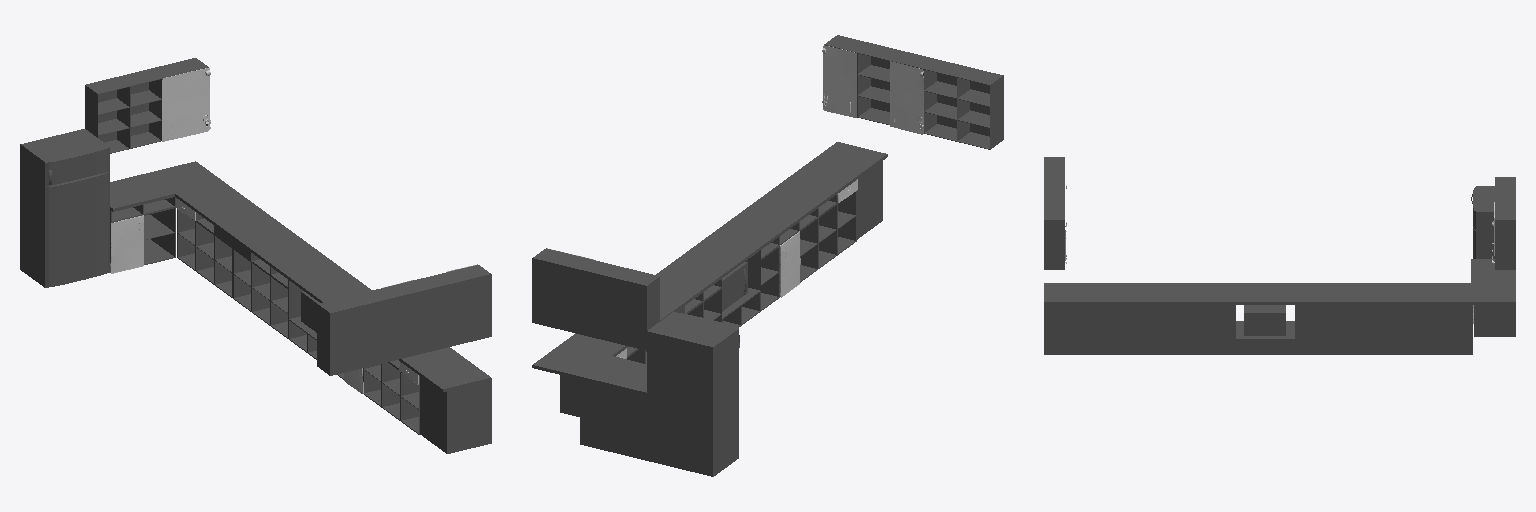
--- Facts derived from the render (not from the file) ---
3 views of the same robot in one strip: view 1: azimuth 30°, elevation 25°; view 2: azimuth 150°, elevation 25°; view 3: azimuth 270°, elevation 25° (orthographic).
Model Scene with 116 links and 115 joints (24 revolute, 14 prismatic, 77 fixed), rooted at world, posed every joint at zero.
Visible links, largest first — view 1: counter_0, refrigerator_door, refrigerator_corpus, box, upper_left_cabinet_1.29_0.692_0.4995_1_corpus, big_upper_cabinet_1.29_0.692_0.4995_3_door_0_0, counter_1, upper_right_cabinet_1.29_0.692_0.4995_3_corpus, upper_right_cabinet_1.29_0.692_0.4995_0_corpus, upper_right_cabinet_1.29_0.692_0.4995_1_corpus, upper_right_cabinet_1.29_0.692_0.4995_2_corpus, upper_left_cabinet_1.29_0.692_0.4995_0_corpus (+14 smaller); view 2: refrigerator_corpus, counter_0, big_upper_cabinet_1.29_0.692_0.4995_3_corpus, upper_left_cabinet_1.29_0.692_0.4995_1_corpus, upper_right_cabinet_1.29_0.692_0.4995_3_corpus, counter_1, upper_left_cabinet_1.29_0.692_0.4995_2_corpus, upper_right_cabinet_1.29_0.692_0.4995_1_corpus, upper_right_cabinet_1.29_0.692_0.4995_2_corpus, upper_right_cabinet_1.29_0.692_0.4995_0_door_0_0, upper_left_cabinet_1.29_0.692_0.4995_0_door_0_0, lower_left_cabinet_1.29_0.692_0.4995_0_corpus (+10 smaller); view 3: counter_0, box, counter_1, big_upper_cabinet_1.29_0.692_0.4995_3_corpus, lower_left_cabinet_1.29_0.692_0.4995_0_corpus, upper_right_cabinet_1.29_0.692_0.4995_0_corpus, refrigerator_corpus, microwave_corpus, lower_right_cabinet_1.039_0.692_0.999_1_corpus, lower_left_cabinet_1.29_0.692_0.4995_1_corpus, lower_left_cabinet_1.29_0.692_0.4995_5_corpus, lower_right_cabinet_1.039_0.692_0.999_2_corpus (+10 smaller).
Boxes of the visible links, x1=… form: counter_0: x1=175, y1=181, x2=491, y2=392; refrigerator_door: x1=45, y1=172, x2=109, y2=286; refrigerator_corpus: x1=20, y1=129, x2=109, y2=287; box: x1=420, y1=376, x2=491, y2=453; upper_left_cabinet_1.29_0.692_0.4995_1_corpus: x1=317, y1=296, x2=362, y2=375; big_upper_cabinet_1.29_0.692_0.4995_3_door_0_0: x1=162, y1=68, x2=210, y2=141; counter_1: x1=110, y1=161, x2=223, y2=211; upper_right_cabinet_1.29_0.692_0.4995_3_corpus: x1=85, y1=77, x2=129, y2=153; upper_right_cabinet_1.29_0.692_0.4995_0_corpus: x1=447, y1=265, x2=491, y2=344; upper_right_cabinet_1.29_0.692_0.4995_1_corpus: x1=414, y1=272, x2=458, y2=351; upper_right_cabinet_1.29_0.692_0.4995_2_corpus: x1=350, y1=288, x2=394, y2=367; upper_left_cabinet_1.29_0.692_0.4995_0_corpus: x1=382, y1=280, x2=426, y2=359; refrigerator_corpus: x1=647, y1=312, x2=738, y2=476; counter_0: x1=560, y1=142, x2=887, y2=356; big_upper_cabinet_1.29_0.692_0.4995_3_corpus: x1=532, y1=248, x2=592, y2=333; upper_left_cabinet_1.29_0.692_0.4995_1_corpus: x1=957, y1=67, x2=1003, y2=149; upper_right_cabinet_1.29_0.692_0.4995_3_corpus: x1=614, y1=268, x2=659, y2=350; counter_1: x1=532, y1=345, x2=646, y2=395; upper_left_cabinet_1.29_0.692_0.4995_2_corpus: x1=580, y1=260, x2=625, y2=342; upper_right_cabinet_1.29_0.692_0.4995_1_corpus: x1=857, y1=43, x2=902, y2=124; upper_right_cabinet_1.29_0.692_0.4995_2_corpus: x1=924, y1=59, x2=969, y2=141; upper_right_cabinet_1.29_0.692_0.4995_0_door_0_0: x1=822, y1=45, x2=856, y2=117; upper_left_cabinet_1.29_0.692_0.4995_0_door_0_0: x1=890, y1=61, x2=923, y2=134; lower_left_cabinet_1.29_0.692_0.4995_0_corpus: x1=580, y1=392, x2=613, y2=452; counter_0: x1=1044, y1=283, x2=1472, y2=304; box: x1=1044, y1=305, x2=1086, y2=354; counter_1: x1=1471, y1=259, x2=1515, y2=304; big_upper_cabinet_1.29_0.692_0.4995_3_corpus: x1=1495, y1=202, x2=1515, y2=269; lower_left_cabinet_1.29_0.692_0.4995_0_corpus: x1=1474, y1=305, x2=1515, y2=336; upper_right_cabinet_1.29_0.692_0.4995_0_corpus: x1=1044, y1=207, x2=1064, y2=269; refrigerator_corpus: x1=1476, y1=186, x2=1494, y2=258; microwave_corpus: x1=1244, y1=305, x2=1285, y2=335; lower_right_cabinet_1.039_0.692_0.999_1_corpus: x1=1443, y1=315, x2=1472, y2=354; lower_left_cabinet_1.29_0.692_0.4995_1_corpus: x1=1413, y1=315, x2=1442, y2=354; lower_left_cabinet_1.29_0.692_0.4995_5_corpus: x1=1354, y1=315, x2=1383, y2=354; lower_right_cabinet_1.039_0.692_0.999_2_corpus: x1=1324, y1=315, x2=1353, y2=354.
Size in the robot's own frame: 3.81 by 10.99 by 3.49 metres.
11 mesh visuals loaded from 39 distinct referenced files (11 OBJ); not drawn: 28 (reference not matched to a file when rendering).

robot.urdf — Scene:
<?xml version='1.0' encoding='ASCII'?>
<robot name="Scene">
  <link name="drawer_0.251_0.692_0.999_0_corpus">
    <inertial>
      <origin xyz="0.0 0.0 0.0" rpy="0.0 -0.0 0.0" />
      <mass value="0.038112919999999995" />
      <inertia ixx="1.0" ixy="0.0" ixz="0.0" iyy="1.0" iyz="0.0" izz="1.0" />
    </inertial>
    <visual name="drawer_0.251_0.692_0.999_0_back">
      <geometry>
        <box size="0.692 0.02 0.231" />
      </geometry>
      <origin xyz="0.0 0.4895 0.1155" rpy="0.0 -0.0 0.0" />
      <material name="drawer_0.251_0.692_0.999_0_back_main_color">
        <color rgba="0.4 0.4 0.4 1.0" />
      </material>
    </visual>
    <visual name="drawer_0.251_0.692_0.999_0_left">
      <geometry>
        <box size="0.02 0.959 0.231" />
      </geometry>
      <origin xyz="-0.33599999999999997 0.0 0.1155" rpy="0.0 -0.0 0.0" />
      <material name="drawer_0.251_0.692_0.999_0_left_main_color">
        <color rgba="0.4 0.4 0.4 1.0" />
      </material>
    </visual>
    <visual name="drawer_0.251_0.692_0.999_0_right">
      <geometry>
        <box size="0.02 0.959 0.231" />
      </geometry>
      <origin xyz="0.33599999999999997 0.0 0.1155" rpy="0.0 -0.0 0.0" />
      <material name="drawer_0.251_0.692_0.999_0_right_main_color">
        <color rgba="0.4 0.4 0.4 1.0" />
      </material>
    </visual>
    <visual name="drawer_0.251_0.692_0.999_0_surface_0_0">
      <geometry>
        <box size="0.6519999999999999 0.959 0.02" />
      </geometry>
      <origin xyz="0.0 0.0 0.010000000000000018" rpy="0.0 -0.0 0.0" />
      <material name="drawer_0.251_0.692_0.999_0_surface_0_0_main_color">
        <color rgba="0.4 0.4 0.4 1.0" />
      </material>
    </visual>
    <visual name="drawer_0.251_0.692_0.999_0_top">
      <geometry>
        <box size="0.692 0.979 0.02" />
      </geometry>
      <origin xyz="0.0 0.01 0.241" rpy="0.0 -0.0 0.0" />
      <material name="drawer_0.251_0.692_0.999_0_top_main_color">
        <color rgba="0.4 0.4 0.4 1.0" />
      </material>
    </visual>
    <collision name="drawer_0.251_0.692_0.999_0_back">
      <geometry>
        <box size="0.692 0.02 0.231" />
      </geometry>
      <origin xyz="0.0 0.4895 0.1155" rpy="0.0 -0.0 0.0" />
    </collision>
    <collision name="drawer_0.251_0.692_0.999_0_left">
      <geometry>
        <box size="0.02 0.959 0.231" />
      </geometry>
      <origin xyz="-0.33599999999999997 0.0 0.1155" rpy="0.0 -0.0 0.0" />
    </collision>
    <collision name="drawer_0.251_0.692_0.999_0_right">
      <geometry>
        <box size="0.02 0.959 0.231" />
      </geometry>
      <origin xyz="0.33599999999999997 0.0 0.1155" rpy="0.0 -0.0 0.0" />
    </collision>
    <collision name="drawer_0.251_0.692_0.999_0_surface_0_0">
      <geometry>
        <box size="0.6519999999999999 0.959 0.02" />
      </geometry>
      <origin xyz="0.0 0.0 0.010000000000000018" rpy="0.0 -0.0 0.0" />
    </collision>
    <collision name="drawer_0.251_0.692_0.999_0_top">
      <geometry>
        <box size="0.692 0.979 0.02" />
      </geometry>
      <origin xyz="0.0 0.01 0.241" rpy="0.0 -0.0 0.0" />
    </collision>
  </link>
  <link name="drawer_0.251_0.692_0.999_0_drawer_0_0">
    <inertial>
      <origin xyz="0.0 0.0 0.0" rpy="0.0 -0.0 0.0" />
      <mass value="0.09999999999999999" />
      <inertia ixx="1.0" ixy="0.0" ixz="0.0" iyy="1.0" iyz="0.0" izz="1.0" />
    </inertial>
    <visual><geometry><mesh filename="second_floor_kitchen_pipleine/drawer_0.251_0.692_0.999_0.obj" /></geometry><material name="drawer_0.251_0.692_0.999_0_drawer_0_0_material"><color rgba="0.8 0.8 0.8 1.0" /></material></visual><collision><geometry><box size="0.688000 0.991200 0.247000" /></geometry><origin xyz="0.000000 0.365500 0.000000" rpy="0 0 0" /></collision></link>
  <link name="drawer_0.251_0.692_0.999_1_corpus">
    <inertial>
      <origin xyz="0.0 0.0 0.0" rpy="0.0 -0.0 0.0" />
      <mass value="0.038112919999999995" />
      <inertia ixx="1.0" ixy="0.0" ixz="0.0" iyy="1.0" iyz="0.0" izz="1.0" />
    </inertial>
    <visual name="drawer_0.251_0.692_0.999_1_back">
      <geometry>
        <box size="0.692 0.02 0.231" />
      </geometry>
      <origin xyz="0.0 0.4895 0.1155" rpy="0.0 -0.0 0.0" />
      <material name="drawer_0.251_0.692_0.999_1_back_main_color">
        <color rgba="0.4 0.4 0.4 1.0" />
      </material>
    </visual>
    <visual name="drawer_0.251_0.692_0.999_1_left">
      <geometry>
        <box size="0.02 0.959 0.231" />
      </geometry>
      <origin xyz="-0.33599999999999997 0.0 0.1155" rpy="0.0 -0.0 0.0" />
      <material name="drawer_0.251_0.692_0.999_1_left_main_color">
        <color rgba="0.4 0.4 0.4 1.0" />
      </material>
    </visual>
    <visual name="drawer_0.251_0.692_0.999_1_right">
      <geometry>
        <box size="0.02 0.959 0.231" />
      </geometry>
      <origin xyz="0.33599999999999997 0.0 0.1155" rpy="0.0 -0.0 0.0" />
      <material name="drawer_0.251_0.692_0.999_1_right_main_color">
        <color rgba="0.4 0.4 0.4 1.0" />
      </material>
    </visual>
    <visual name="drawer_0.251_0.692_0.999_1_surface_0_0">
      <geometry>
        <box size="0.6519999999999999 0.959 0.02" />
      </geometry>
      <origin xyz="0.0 0.0 0.010000000000000018" rpy="0.0 -0.0 0.0" />
      <material name="drawer_0.251_0.692_0.999_1_surface_0_0_main_color">
        <color rgba="0.4 0.4 0.4 1.0" />
      </material>
    </visual>
    <visual name="drawer_0.251_0.692_0.999_1_top">
      <geometry>
        <box size="0.692 0.979 0.02" />
      </geometry>
      <origin xyz="0.0 0.01 0.241" rpy="0.0 -0.0 0.0" />
      <material name="drawer_0.251_0.692_0.999_1_top_main_color">
        <color rgba="0.4 0.4 0.4 1.0" />
      </material>
    </visual>
    <collision name="drawer_0.251_0.692_0.999_1_back">
      <geometry>
        <box size="0.692 0.02 0.231" />
      </geometry>
      <origin xyz="0.0 0.4895 0.1155" rpy="0.0 -0.0 0.0" />
    </collision>
    <collision name="drawer_0.251_0.692_0.999_1_left">
      <geometry>
        <box size="0.02 0.959 0.231" />
      </geometry>
      <origin xyz="-0.33599999999999997 0.0 0.1155" rpy="0.0 -0.0 0.0" />
    </collision>
    <collision name="drawer_0.251_0.692_0.999_1_right">
      <geometry>
        <box size="0.02 0.959 0.231" />
      </geometry>
      <origin xyz="0.33599999999999997 0.0 0.1155" rpy="0.0 -0.0 0.0" />
    </collision>
    <collision name="drawer_0.251_0.692_0.999_1_surface_0_0">
      <geometry>
        <box size="0.6519999999999999 0.959 0.02" />
      </geometry>
      <origin xyz="0.0 0.0 0.010000000000000018" rpy="0.0 -0.0 0.0" />
    </collision>
    <collision name="drawer_0.251_0.692_0.999_1_top">
      <geometry>
        <box size="0.692 0.979 0.02" />
      </geometry>
      <origin xyz="0.0 0.01 0.241" rpy="0.0 -0.0 0.0" />
    </collision>
  </link>
  <link name="drawer_0.251_0.692_0.999_1_drawer_0_0">
    <inertial>
      <origin xyz="0.0 0.0 0.0" rpy="0.0 -0.0 0.0" />
      <mass value="0.09999999999999999" />
      <inertia ixx="1.0" ixy="0.0" ixz="0.0" iyy="1.0" iyz="0.0" izz="1.0" />
    </inertial>
    <visual><geometry><mesh filename="second_floor_kitchen_pipleine/drawer_0.251_0.692_0.999_1.obj" /></geometry><material name="drawer_0.251_0.692_0.999_1_drawer_0_0_material"><color rgba="0.8 0.8 0.8 1.0" /></material></visual><collision><geometry><box size="0.688000 0.991200 0.247000" /></geometry><origin xyz="0.000000 0.365500 0.000000" rpy="0 0 0" /></collision></link>
  <link name="drawer_0.251_0.692_0.999_2_corpus">
    <inertial>
      <origin xyz="0.0 0.0 0.0" rpy="0.0 -0.0 0.0" />
      <mass value="0.038112919999999995" />
      <inertia ixx="1.0" ixy="0.0" ixz="0.0" iyy="1.0" iyz="0.0" izz="1.0" />
    </inertial>
    <visual name="drawer_0.251_0.692_0.999_2_back">
      <geometry>
        <box size="0.692 0.02 0.231" />
      </geometry>
      <origin xyz="0.0 0.4895 0.1155" rpy="0.0 -0.0 0.0" />
      <material name="drawer_0.251_0.692_0.999_2_back_main_color">
        <color rgba="0.4 0.4 0.4 1.0" />
      </material>
    </visual>
    <visual name="drawer_0.251_0.692_0.999_2_left">
      <geometry>
        <box size="0.02 0.959 0.231" />
      </geometry>
      <origin xyz="-0.33599999999999997 0.0 0.1155" rpy="0.0 -0.0 0.0" />
      <material name="drawer_0.251_0.692_0.999_2_left_main_color">
        <color rgba="0.4 0.4 0.4 1.0" />
      </material>
    </visual>
    <visual name="drawer_0.251_0.692_0.999_2_right">
      <geometry>
        <box size="0.02 0.959 0.231" />
      </geometry>
      <origin xyz="0.33599999999999997 0.0 0.1155" rpy="0.0 -0.0 0.0" />
      <material name="drawer_0.251_0.692_0.999_2_right_main_color">
        <color rgba="0.4 0.4 0.4 1.0" />
      </material>
    </visual>
    <visual name="drawer_0.251_0.692_0.999_2_surface_0_0">
      <geometry>
        <box size="0.6519999999999999 0.959 0.02" />
      </geometry>
      <origin xyz="0.0 0.0 0.010000000000000018" rpy="0.0 -0.0 0.0" />
      <material name="drawer_0.251_0.692_0.999_2_surface_0_0_main_color">
        <color rgba="0.4 0.4 0.4 1.0" />
      </material>
    </visual>
    <visual name="drawer_0.251_0.692_0.999_2_top">
      <geometry>
        <box size="0.692 0.979 0.02" />
      </geometry>
      <origin xyz="0.0 0.01 0.241" rpy="0.0 -0.0 0.0" />
      <material name="drawer_0.251_0.692_0.999_2_top_main_color">
        <color rgba="0.4 0.4 0.4 1.0" />
      </material>
    </visual>
    <collision name="drawer_0.251_0.692_0.999_2_back">
      <geometry>
        <box size="0.692 0.02 0.231" />
      </geometry>
      <origin xyz="0.0 0.4895 0.1155" rpy="0.0 -0.0 0.0" />
    </collision>
    <collision name="drawer_0.251_0.692_0.999_2_left">
      <geometry>
        <box size="0.02 0.959 0.231" />
      </geometry>
      <origin xyz="-0.33599999999999997 0.0 0.1155" rpy="0.0 -0.0 0.0" />
    </collision>
    <collision name="drawer_0.251_0.692_0.999_2_right">
      <geometry>
        <box size="0.02 0.959 0.231" />
      </geometry>
      <origin xyz="0.33599999999999997 0.0 0.1155" rpy="0.0 -0.0 0.0" />
    </collision>
    <collision name="drawer_0.251_0.692_0.999_2_surface_0_0">
      <geometry>
        <box size="0.6519999999999999 0.959 0.02" />
      </geometry>
      <origin xyz="0.0 0.0 0.010000000000000018" rpy="0.0 -0.0 0.0" />
    </collision>
    <collision name="drawer_0.251_0.692_0.999_2_top">
      <geometry>
        <box size="0.692 0.979 0.02" />
      </geometry>
      <origin xyz="0.0 0.01 0.241" rpy="0.0 -0.0 0.0" />
    </collision>
  </link>
  <link name="drawer_0.251_0.692_0.999_2_drawer_0_0">
    <inertial>
      <origin xyz="0.0 0.0 0.0" rpy="0.0 -0.0 0.0" />
      <mass value="0.09999999999999999" />
      <inertia ixx="1.0" ixy="0.0" ixz="0.0" iyy="1.0" iyz="0.0" izz="1.0" />
    </inertial>
    <visual><geometry><mesh filename="second_floor_kitchen_pipleine/drawer_0.251_0.692_0.999_2.obj" /></geometry><material name="drawer_0.251_0.692_0.999_2_drawer_0_0_material"><color rgba="0.8 0.8 0.8 1.0" /></material></visual><collision><geometry><box size="0.688000 0.991200 0.247000" /></geometry><origin xyz="0.000000 0.365500 0.000000" rpy="0 0 0" /></collision></link>
  <link name="drawer_0.251_0.692_0.999_3_corpus">
    <inertial>
      <origin xyz="0.0 0.0 0.0" rpy="0.0 -0.0 0.0" />
      <mass value="0.038112919999999995" />
      <inertia ixx="1.0" ixy="0.0" ixz="0.0" iyy="1.0" iyz="0.0" izz="1.0" />
    </inertial>
    <visual name="drawer_0.251_0.692_0.999_3_back">
      <geometry>
        <box size="0.692 0.02 0.231" />
      </geometry>
      <origin xyz="0.0 0.4895 0.1155" rpy="0.0 -0.0 0.0" />
      <material name="drawer_0.251_0.692_0.999_3_back_main_color">
        <color rgba="0.4 0.4 0.4 1.0" />
      </material>
    </visual>
    <visual name="drawer_0.251_0.692_0.999_3_left">
      <geometry>
        <box size="0.02 0.959 0.231" />
      </geometry>
      <origin xyz="-0.33599999999999997 0.0 0.1155" rpy="0.0 -0.0 0.0" />
      <material name="drawer_0.251_0.692_0.999_3_left_main_color">
        <color rgba="0.4 0.4 0.4 1.0" />
      </material>
    </visual>
    <visual name="drawer_0.251_0.692_0.999_3_right">
      <geometry>
        <box size="0.02 0.959 0.231" />
      </geometry>
      <origin xyz="0.33599999999999997 0.0 0.1155" rpy="0.0 -0.0 0.0" />
      <material name="drawer_0.251_0.692_0.999_3_right_main_color">
        <color rgba="0.4 0.4 0.4 1.0" />
      </material>
    </visual>
    <visual name="drawer_0.251_0.692_0.999_3_surface_0_0">
      <geometry>
        <box size="0.6519999999999999 0.959 0.02" />
      </geometry>
      <origin xyz="0.0 0.0 0.010000000000000018" rpy="0.0 -0.0 0.0" />
      <material name="drawer_0.251_0.692_0.999_3_surface_0_0_main_color">
        <color rgba="0.4 0.4 0.4 1.0" />
      </material>
    </visual>
    <visual name="drawer_0.251_0.692_0.999_3_top">
      <geometry>
        <box size="0.692 0.979 0.02" />
      </geometry>
      <origin xyz="0.0 0.01 0.241" rpy="0.0 -0.0 0.0" />
      <material name="drawer_0.251_0.692_0.999_3_top_main_color">
        <color rgba="0.4 0.4 0.4 1.0" />
      </material>
    </visual>
    <collision name="drawer_0.251_0.692_0.999_3_back">
      <geometry>
        <box size="0.692 0.02 0.231" />
      </geometry>
      <origin xyz="0.0 0.4895 0.1155" rpy="0.0 -0.0 0.0" />
    </collision>
    <collision name="drawer_0.251_0.692_0.999_3_left">
      <geometry>
        <box size="0.02 0.959 0.231" />
      </geometry>
      <origin xyz="-0.33599999999999997 0.0 0.1155" rpy="0.0 -0.0 0.0" />
    </collision>
    <collision name="drawer_0.251_0.692_0.999_3_right">
      <geometry>
        <box size="0.02 0.959 0.231" />
      </geometry>
      <origin xyz="0.33599999999999997 0.0 0.1155" rpy="0.0 -0.0 0.0" />
    </collision>
    <collision name="drawer_0.251_0.692_0.999_3_surface_0_0">
      <geometry>
        <box size="0.6519999999999999 0.959 0.02" />
      </geometry>
      <origin xyz="0.0 0.0 0.010000000000000018" rpy="0.0 -0.0 0.0" />
    </collision>
    <collision name="drawer_0.251_0.692_0.999_3_top">
      <geometry>
        <box size="0.692 0.979 0.02" />
      </geometry>
      <origin xyz="0.0 0.01 0.241" rpy="0.0 -0.0 0.0" />
    </collision>
  </link>
  <link name="drawer_0.251_0.692_0.999_3_drawer_0_0">
    <inertial>
      <origin xyz="0.0 0.0 0.0" rpy="0.0 -0.0 0.0" />
      <mass value="0.09999999999999999" />
      <inertia ixx="1.0" ixy="0.0" ixz="0.0" iyy="1.0" iyz="0.0" izz="1.0" />
    </inertial>
    <visual><geometry><mesh filename="second_floor_kitchen_pipleine/drawer_0.251_0.692_0.999_3.obj" /></geometry><material name="drawer_0.251_0.692_0.999_3_drawer_0_0_material"><color rgba="0.8 0.8 0.8 1.0" /></material></visual><collision><geometry><box size="0.688000 0.991200 0.247000" /></geometry><origin xyz="0.000000 0.365500 0.000000" rpy="0 0 0" /></collision></link>
  <link name="long_drawer_corpus">
    <inertial>
      <origin xyz="0.0 0.0 0.0" rpy="0.0 -0.0 0.0" />
      <mass value="0.06813187999999999" />
      <inertia ixx="1.0" ixy="0.0" ixz="0.0" iyy="1.0" iyz="0.0" izz="1.0" />
    </inertial>
    <visual name="long_drawer_back">
      <geometry>
        <box size="1.384 0.02 0.231" />
      </geometry>
      <origin xyz="0.0 0.4895 0.1155" rpy="0.0 -0.0 0.0" />
      <material name="long_drawer_back_main_color">
        <color rgba="0.4 0.4 0.4 1.0" />
      </material>
    </visual>
    <visual name="long_drawer_left">
      <geometry>
        <box size="0.02 0.959 0.231" />
      </geometry>
      <origin xyz="-0.6819999999999999 0.0 0.1155" rpy="0.0 -0.0 0.0" />
      <material name="long_drawer_left_main_color">
        <color rgba="0.4 0.4 0.4 1.0" />
      </material>
    </visual>
    <visual name="long_drawer_right">
      <geometry>
        <box size="0.02 0.959 0.231" />
      </geometry>
      <origin xyz="0.6819999999999999 0.0 0.1155" rpy="0.0 -0.0 0.0" />
      <material name="long_drawer_right_main_color">
        <color rgba="0.4 0.4 0.4 1.0" />
      </material>
    </visual>
    <visual name="long_drawer_surface_0_0">
      <geometry>
        <box size="1.3439999999999999 0.959 0.02" />
      </geometry>
      <origin xyz="0.0 0.0 0.010000000000000018" rpy="0.0 -0.0 0.0" />
      <material name="long_drawer_surface_0_0_main_color">
        <color rgba="0.4 0.4 0.4 1.0" />
      </material>
    </visual>
    <visual name="long_drawer_top">
      <geometry>
        <box size="1.384 0.979 0.02" />
      </geometry>
      <origin xyz="0.0 0.01 0.241" rpy="0.0 -0.0 0.0" />
      <material name="long_drawer_top_main_color">
        <color rgba="0.4 0.4 0.4 1.0" />
      </material>
    </visual>
    <collision name="long_drawer_back">
      <geometry>
        <box size="1.384 0.02 0.231" />
      </geometry>
      <origin xyz="0.0 0.4895 0.1155" rpy="0.0 -0.0 0.0" />
    </collision>
    <collision name="long_drawer_left">
      <geometry>
        <box size="0.02 0.959 0.231" />
      </geometry>
      <origin xyz="-0.6819999999999999 0.0 0.1155" rpy="0.0 -0.0 0.0" />
    </collision>
    <collision name="long_drawer_right">
      <geometry>
        <box size="0.02 0.959 0.231" />
      </geometry>
      <origin xyz="0.6819999999999999 0.0 0.1155" rpy="0.0 -0.0 0.0" />
    </collision>
    <collision name="long_drawer_surface_0_0">
      <geometry>
        <box size="1.3439999999999999 0.959 0.02" />
      </geometry>
      <origin xyz="0.0 0.0 0.010000000000000018" rpy="0.0 -0.0 0.0" />
    </collision>
    <collision name="long_drawer_top">
      <geometry>
        <box size="1.384 0.979 0.02" />
      </geometry>
      <origin xyz="0.0 0.01 0.241" rpy="0.0 -0.0 0.0" />
    </collision>
  </link>
  <link name="long_drawer_drawer_0_0">
    <inertial>
      <origin xyz="0.0 0.0 0.0" rpy="0.0 -0.0 0.0" />
      <mass value="0.09999999999999999" />
      <inertia ixx="1.0" ixy="0.0" ixz="0.0" iyy="1.0" iyz="0.0" izz="1.0" />
    </inertial>
    <visual name="long_drawer_drawer_0_0_board_0">
      <geometry>
        <box size="1.38 0.02 0.247" />
      </geometry>
      <origin xyz="0.0 -0.01 0.0" rpy="0.0 -0.0 0.0" />
      <material name="long_drawer_drawer_0_0_board_0_main_color">
        <color rgba="0.4 0.4 0.4 1.0" />
      </material>
    </visual>
    <visual name="long_drawer_drawer_0_0_board_1">
      <geometry>
        <box size="1.3239999999999998 0.8561 0.005" />
      </geometry>
      <origin xyz="0.0 0.42805 -0.098" rpy="0.0 -0.0 0.0" />
      <material name="long_drawer_drawer_0_0_board_1_main_color">
        <color rgba="0.4 0.4 0.4 1.0" />
      </material>
    </visual>
    <visual name="long_drawer_drawer_0_0_board_2">
      <geometry>
        <box size="0.005 0.8561 0.20099999999999998" />
      </geometry>
      <origin xyz="-0.6645 0.42805 0.0" rpy="0.0 -0.0 0.0" />
      <material name="long_drawer_drawer_0_0_board_2_main_color">
        <color rgba="0.4 0.4 0.4 1.0" />
      </material>
    </visual>
    <visual name="long_drawer_drawer_0_0_board_3">
      <geometry>
        <box size="0.005 0.8561 0.20099999999999998" />
      </geometry>
      <origin xyz="0.6645 0.42805 0.0" rpy="0.0 -0.0 0.0" />
      <material name="long_drawer_drawer_0_0_board_3_main_color">
        <color rgba="0.4 0.4 0.4 1.0" />
      </material>
    </visual>
    <visual name="long_drawer_drawer_0_0_board_4">
      <geometry>
        <box size="1.3339999999999999 0.005 0.20099999999999998" />
      </geometry>
      <origin xyz="0.0 0.8586 0.0" rpy="0.0 -0.0 0.0" />
      <material name="long_drawer_drawer_0_0_board_4_main_color">
        <color rgba="0.4 0.4 0.4 1.0" />
      </material>
    </visual>
    <visual name="long_drawer_drawer_0_0_handle_part_0">
      <geometry>
        <box size="0.001 0.0 0.0" />
      </geometry>
      <origin xyz="1.874699728327322e-36 -0.0195 -3.061616997868383e-20" rpy="3.141592653589793 6.123233995736766e-17 1.5707963267948966" />
      <material name="long_drawer_drawer_0_0_handle_part_0_main_color">
        <color rgba="0.4 0.4 0.4 1.0" />
      </material>
    </visual>
    <visual name="long_drawer_drawer_0_0_handle_part_1">
      <geometry>
        <box size="0.0 0.04 0.0" />
      </geometry>
      <origin xyz="0.02 -0.02 2.4492935982947064e-18" rpy="3.141592653589793 6.123233995736766e-17 1.5707963267948966" />
      <material name="long_drawer_drawer_0_0_handle_part_1_main_color">
        <color rgba="0.4 0.4 0.4 1.0" />
      </material>
    </visual>
    <visual name="long_drawer_drawer_0_0_handle_part_2">
      <geometry>
        <box size="0.0 0.04 0.0" />
      </geometry>
      <origin xyz="-0.02 -0.02 -2.4492935982947064e-18" rpy="3.141592653589793 6.123233995736766e-17 1.5707963267948966" />
      <material name="long_drawer_drawer_0_0_handle_part_2_main_color">
        <color rgba="0.4 0.4 0.4 1.0" />
      </material>
    </visual>
    <collision name="long_drawer_drawer_0_0_board_0">
      <geometry>
        <box size="1.38 0.02 0.247" />
      </geometry>
      <origin xyz="0.0 -0.01 0.0" rpy="0.0 -0.0 0.0" />
    </collision>
    <collision name="long_drawer_drawer_0_0_board_1">
      <geometry>
        <box size="1.3239999999999998 0.8561 0.005" />
      </geometry>
      <origin xyz="0.0 0.42805 -0.098" rpy="0.0 -0.0 0.0" />
    </collision>
    <collision name="long_drawer_drawer_0_0_board_2">
      <geometry>
        <box size="0.005 0.8561 0.20099999999999998" />
      </geometry>
      <origin xyz="-0.6645 0.42805 0.0" rpy="0.0 -0.0 0.0" />
    </collision>
    <collision name="long_drawer_drawer_0_0_board_3">
      <geometry>
        <box size="0.005 0.8561 0.20099999999999998" />
      </geometry>
      <origin xyz="0.6645 0.42805 0.0" rpy="0.0 -0.0 0.0" />
    </collision>
    <collision name="long_drawer_drawer_0_0_board_4">
      <geometry>
        <box size="1.3339999999999999 0.005 0.20099999999999998" />
      </geometry>
      <origin xyz="0.0 0.8586 0.0" rpy="0.0 -0.0 0.0" />
    </collision>
    <collision name="long_drawer_drawer_0_0_handle_part_0">
      <geometry>
        <box size="0.001 0.0 0.0" />
      </geometry>
      <origin xyz="1.874699728327322e-36 -0.0195 -3.061616997868383e-20" rpy="3.141592653589793 6.123233995736766e-17 1.5707963267948966" />
    </collision>
    <collision name="long_drawer_drawer_0_0_handle_part_1">
      <geometry>
        <box size="0.0 0.04 0.0" />
      </geometry>
      <origin xyz="0.02 -0.02 2.4492935982947064e-18" rpy="3.141592653589793 6.123233995736766e-17 1.5707963267948966" />
    </collision>
    <collision name="long_drawer_drawer_0_0_handle_part_2">
      <geometry>
        <box size="0.0 0.04 0.0" />
      </geometry>
      <origin xyz="-0.02 -0.02 -2.4492935982947064e-18" rpy="3.141592653589793 6.123233995736766e-17 1.5707963267948966" />
    </collision>
  </link>
  <link name="drawer_0.251_0.692_0.999_4_corpus">
    <inertial>
      <origin xyz="0.0 0.0 0.0" rpy="0.0 -0.0 0.0" />
      <mass value="0.038112919999999995" />
      <inertia ixx="1.0" ixy="0.0" ixz="0.0" iyy="1.0" iyz="0.0" izz="1.0" />
    </inertial>
    <visual name="drawer_0.251_0.692_0.999_4_back">
      <geometry>
        <box size="0.692 0.02 0.231" />
      </geometry>
      <origin xyz="0.0 0.4895 0.1155" rpy="0.0 -0.0 0.0" />
      <material name="drawer_0.251_0.692_0.999_4_back_main_color">
        <color rgba="0.4 0.4 0.4 1.0" />
      </material>
    </visual>
    <visual name="drawer_0.251_0.692_0.999_4_left">
      <geometry>
        <box size="0.02 0.959 0.231" />
      </geometry>
      <origin xyz="-0.33599999999999997 0.0 0.1155" rpy="0.0 -0.0 0.0" />
      <material name="drawer_0.251_0.692_0.999_4_left_main_color">
        <color rgba="0.4 0.4 0.4 1.0" />
      </material>
    </visual>
    <visual name="drawer_0.251_0.692_0.999_4_right">
      <geometry>
        <box size="0.02 0.959 0.231" />
      </geometry>
      <origin xyz="0.33599999999999997 0.0 0.1155" rpy="0.0 -0.0 0.0" />
      <material name="drawer_0.251_0.692_0.999_4_right_main_color">
        <color rgba="0.4 0.4 0.4 1.0" />
      </material>
    </visual>
    <visual name="drawer_0.251_0.692_0.999_4_surface_0_0">
      <geometry>
        <box size="0.6519999999999999 0.959 0.02" />
      </geometry>
      <origin xyz="0.0 0.0 0.010000000000000018" rpy="0.0 -0.0 0.0" />
      <material name="drawer_0.251_0.692_0.999_4_surface_0_0_main_color">
        <color rgba="0.4 0.4 0.4 1.0" />
      </material>
    </visual>
    <visual name="drawer_0.251_0.692_0.999_4_top">
      <geometry>
        <box size="0.692 0.979 0.02" />
      </geometry>
      <origin xyz="0.0 0.01 0.241" rpy="0.0 -0.0 0.0" />
      <material name="drawer_0.251_0.692_0.999_4_top_main_color">
        <color rgba="0.4 0.4 0.4 1.0" />
      </material>
    </visual>
    <collision name="drawer_0.251_0.692_0.999_4_back">
      <geometry>
        <box size="0.692 0.02 0.231" />
      </geometry>
      <origin xyz="0.0 0.4895 0.1155" rpy="0.0 -0.0 0.0" />
    </collision>
    <collision name="drawer_0.251_0.692_0.999_4_left">
      <geometry>
        <box size="0.02 0.959 0.231" />
      </geometry>
      <origin xyz="-0.33599999999999997 0.0 0.1155" rpy="0.0 -0.0 0.0" />
    </collision>
    <collision name="drawer_0.251_0.692_0.999_4_right">
      <geometry>
        <box size="0.02 0.959 0.231" />
      </geometry>
      <origin xyz="0.33599999999999997 0.0 0.1155" rpy="0.0 -0.0 0.0" />
    </collision>
    <collision name="drawer_0.251_0.692_0.999_4_surface_0_0">
      <geometry>
        <box size="0.6519999999999999 0.959 0.02" />
      </geometry>
      <origin xyz="0.0 0.0 0.010000000000000018" rpy="0.0 -0.0 0.0" />
    </collision>
    <collision name="drawer_0.251_0.692_0.999_4_top">
      <geometry>
        <box size="0.692 0.979 0.02" />
      </geometry>
      <origin xyz="0.0 0.01 0.241" rpy="0.0 -0.0 0.0" />
    </collision>
  </link>
  <link name="drawer_0.251_0.692_0.999_4_drawer_0_0">
    <inertial>
      <origin xyz="0.0 0.0 0.0" rpy="0.0 -0.0 0.0" />
      <mass value="0.09999999999999999" />
      <inertia ixx="1.0" ixy="0.0" ixz="0.0" iyy="1.0" iyz="0.0" izz="1.0" />
    </inertial>
    <visual><geometry><mesh filename="second_floor_kitchen_pipleine/drawer_0.251_0.692_0.999_4.obj" /></geometry><material name="drawer_0.251_0.692_0.999_4_drawer_0_0_material"><color rgba="0.8 0.8 0.8 1.0" /></material></visual><collision><geometry><box size="0.688000 0.991200 0.247000" /></geometry><origin xyz="0.000000 0.365500 0.000000" rpy="0 0 0" /></collision></link>
  <link name="drawer_0.251_0.692_0.999_5_corpus">
    <inertial>
      <origin xyz="0.0 0.0 0.0" rpy="0.0 -0.0 0.0" />
      <mass value="0.038112919999999995" />
      <inertia ixx="1.0" ixy="0.0" ixz="0.0" iyy="1.0" iyz="0.0" izz="1.0" />
    </inertial>
    <visual name="drawer_0.251_0.692_0.999_5_back">
      <geometry>
        <box size="0.692 0.02 0.231" />
      </geometry>
      <origin xyz="0.0 0.4895 0.1155" rpy="0.0 -0.0 0.0" />
      <material name="drawer_0.251_0.692_0.999_5_back_main_color">
        <color rgba="0.4 0.4 0.4 1.0" />
      </material>
    </visual>
    <visual name="drawer_0.251_0.692_0.999_5_left">
      <geometry>
        <box size="0.02 0.959 0.231" />
      </geometry>
      <origin xyz="-0.33599999999999997 0.0 0.1155" rpy="0.0 -0.0 0.0" />
      <material name="drawer_0.251_0.692_0.999_5_left_main_color">
        <color rgba="0.4 0.4 0.4 1.0" />
      </material>
    </visual>
    <visual name="drawer_0.251_0.692_0.999_5_right">
      <geometry>
        <box size="0.02 0.959 0.231" />
      </geometry>
      <origin xyz="0.33599999999999997 0.0 0.1155" rpy="0.0 -0.0 0.0" />
      <material name="drawer_0.251_0.692_0.999_5_right_main_color">
        <color rgba="0.4 0.4 0.4 1.0" />
      </material>
    </visual>
    <visual name="drawer_0.251_0.692_0.999_5_surface_0_0">
      <geometry>
        <box size="0.6519999999999999 0.959 0.02" />
      </geometry>
      <origin xyz="0.0 0.0 0.010000000000000018" rpy="0.0 -0.0 0.0" />
      <material name="drawer_0.251_0.692_0.999_5_surface_0_0_main_color">
        <color rgba="0.4 0.4 0.4 1.0" />
      </material>
    </visual>
    <visual name="drawer_0.251_0.692_0.999_5_top">
      <geometry>
        <box size="0.692 0.979 0.02" />
      </geometry>
      <origin xyz="0.0 0.01 0.241" rpy="0.0 -0.0 0.0" />
      <material name="drawer_0.251_0.692_0.999_5_top_main_color">
        <color rgba="0.4 0.4 0.4 1.0" />
      </material>
    </visual>
    <collision name="drawer_0.251_0.692_0.999_5_back">
      <geometry>
        <box size="0.692 0.02 0.231" />
      </geometry>
      <origin xyz="0.0 0.4895 0.1155" rpy="0.0 -0.0 0.0" />
    </collision>
    <collision name="drawer_0.251_0.692_0.999_5_left">
      <geometry>
        <box size="0.02 0.959 0.231" />
      </geometry>
      <origin xyz="-0.33599999999999997 0.0 0.1155" rpy="0.0 -0.0 0.0" />
    </collision>
    <collision name="drawer_0.251_0.692_0.999_5_right">
      <geometry>
        <box size="0.02 0.959 0.231" />
      </geometry>
      <origin xyz="0.33599999999999997 0.0 0.1155" rpy="0.0 -0.0 0.0" />
    </collision>
    <collision name="drawer_0.251_0.692_0.999_5_surface_0_0">
      <geometry>
        <box size="0.6519999999999999 0.959 0.02" />
      </geometry>
      <origin xyz="0.0 0.0 0.010000000000000018" rpy="0.0 -0.0 0.0" />
    </collision>
    <collision name="drawer_0.251_0.692_0.999_5_top">
      <geometry>
        <box size="0.692 0.979 0.02" />
      </geometry>
      <origin xyz="0.0 0.01 0.241" rpy="0.0 -0.0 0.0" />
    </collision>
  </link>
  <link name="drawer_0.251_0.692_0.999_5_drawer_0_0">
    <inertial>
      <origin xyz="0.0 0.0 0.0" rpy="0.0 -0.0 0.0" />
      <mass value="0.09999999999999999" />
      <inertia ixx="1.0" ixy="0.0" ixz="0.0" iyy="1.0" iyz="0.0" izz="1.0" />
    </inertial>
    <visual><geometry><mesh filename="second_floor_kitchen_pipleine/drawer_0.251_0.692_0.999_5.obj" /></geometry><material name="drawer_0.251_0.692_0.999_5_drawer_0_0_material"><color rgba="0.8 0.8 0.8 1.0" /></material></visual><collision><geometry><box size="0.688000 0.991200 0.247000" /></geometry><origin xyz="0.000000 0.365500 0.000000" rpy="0 0 0" /></collision></link>
  <link name="drawer_0.251_0.692_0.999_6_corpus">
    <inertial>
      <origin xyz="0.0 0.0 0.0" rpy="0.0 -0.0 0.0" />
      <mass value="0.038112919999999995" />
      <inertia ixx="1.0" ixy="0.0" ixz="0.0" iyy="1.0" iyz="0.0" izz="1.0" />
    </inertial>
    <visual name="drawer_0.251_0.692_0.999_6_back">
      <geometry>
        <box size="0.692 0.02 0.231" />
      </geometry>
      <origin xyz="0.0 0.4895 0.1155" rpy="0.0 -0.0 0.0" />
      <material name="drawer_0.251_0.692_0.999_6_back_main_color">
        <color rgba="0.4 0.4 0.4 1.0" />
      </material>
    </visual>
    <visual name="drawer_0.251_0.692_0.999_6_left">
      <geometry>
        <box size="0.02 0.959 0.231" />
      </geometry>
      <origin xyz="-0.33599999999999997 0.0 0.1155" rpy="0.0 -0.0 0.0" />
      <material name="drawer_0.251_0.692_0.999_6_left_main_color">
        <color rgba="0.4 0.4 0.4 1.0" />
      </material>
    </visual>
    <visual name="drawer_0.251_0.692_0.999_6_right">
      <geometry>
        <box size="0.02 0.959 0.231" />
      </geometry>
      <origin xyz="0.33599999999999997 0.0 0.1155" rpy="0.0 -0.0 0.0" />
      <material name="drawer_0.251_0.692_0.999_6_right_main_color">
        <color rgba="0.4 0.4 0.4 1.0" />
      </material>
    </visual>
    <visual name="drawer_0.251_0.692_0.999_6_surface_0_0">
      <geometry>
        <box size="0.6519999999999999 0.959 0.02" />
      </geometry>
      <origin xyz="0.0 0.0 0.010000000000000018" rpy="0.0 -0.0 0.0" />
      <material name="drawer_0.251_0.692_0.999_6_surface_0_0_main_color">
        <color rgba="0.4 0.4 0.4 1.0" />
      </material>
    </visual>
    <visual name="drawer_0.251_0.692_0.999_6_top">
      <geometry>
        <box size="0.692 0.979 0.02" />
      </geometry>
      <origin xyz="0.0 0.01 0.241" rpy="0.0 -0.0 0.0" />
      <material name="drawer_0.251_0.692_0.999_6_top_main_color">
        <color rgba="0.4 0.4 0.4 1.0" />
      </material>
    </visual>
    <collision name="drawer_0.251_0.692_0.999_6_back">
      <geometry>
        <box size="0.692 0.02 0.231" />
      </geometry>
      <origin xyz="0.0 0.4895 0.1155" rpy="0.0 -0.0 0.0" />
    </collision>
    <collision name="drawer_0.251_0.692_0.999_6_left">
      <geometry>
        <box size="0.02 0.959 0.231" />
      </geometry>
      <origin xyz="-0.33599999999999997 0.0 0.1155" rpy="0.0 -0.0 0.0" />
    </collision>
    <collision name="drawer_0.251_0.692_0.999_6_right">
      <geometry>
        <box size="0.02 0.959 0.231" />
      </geometry>
      <origin xyz="0.33599999999999997 0.0 0.1155" rpy="0.0 -0.0 0.0" />
    </collision>
    <collision name="drawer_0.251_0.692_0.999_6_surface_0_0">
      <geometry>
        <box size="0.6519999999999999 0.959 0.02" />
      </geometry>
      <origin xyz="0.0 0.0 0.010000000000000018" rpy="0.0 -0.0 0.0" />
    </collision>
    <collision name="drawer_0.251_0.692_0.999_6_top">
      <geometry>
        <box size="0.692 0.979 0.02" />
      </geometry>
      <origin xyz="0.0 0.01 0.241" rpy="0.0 -0.0 0.0" />
    </collision>
  </link>
  <link name="drawer_0.251_0.692_0.999_6_drawer_0_0">
    <inertial>
      <origin xyz="0.0 0.0 0.0" rpy="0.0 -0.0 0.0" />
      <mass value="0.09999999999999999" />
      <inertia ixx="1.0" ixy="0.0" ixz="0.0" iyy="1.0" iyz="0.0" izz="1.0" />
    </inertial>
    <visual><geometry><mesh filename="second_floor_kitchen_pipleine/drawer_0.251_0.692_0.999_6.obj" /></geometry><material name="drawer_0.251_0.692_0.999_6_drawer_0_0_material"><color rgba="0.8 0.8 0.8 1.0" /></material></visual><collision><geometry><box size="0.688000 0.991200 0.247000" /></geometry><origin xyz="0.000000 0.365500 0.000000" rpy="0 0 0" /></collision></link>
  <link name="drawer_0.251_0.692_0.999_7_corpus">
    <inertial>
      <origin xyz="0.0 0.0 0.0" rpy="0.0 -0.0 0.0" />
      <mass value="0.038112919999999995" />
      <inertia ixx="1.0" ixy="0.0" ixz="0.0" iyy="1.0" iyz="0.0" izz="1.0" />
    </inertial>
    <visual name="drawer_0.251_0.692_0.999_7_back">
      <geometry>
        <box size="0.692 0.02 0.231" />
      </geometry>
      <origin xyz="0.0 0.4895 0.1155" rpy="0.0 -0.0 0.0" />
      <material name="drawer_0.251_0.692_0.999_7_back_main_color">
        <color rgba="0.4 0.4 0.4 1.0" />
      </material>
    </visual>
    <visual name="drawer_0.251_0.692_0.999_7_left">
      <geometry>
        <box size="0.02 0.959 0.231" />
      </geometry>
      <origin xyz="-0.33599999999999997 0.0 0.1155" rpy="0.0 -0.0 0.0" />
      <material name="drawer_0.251_0.692_0.999_7_left_main_color">
        <color rgba="0.4 0.4 0.4 1.0" />
      </material>
    </visual>
    <visual name="drawer_0.251_0.692_0.999_7_right">
      <geometry>
        <box size="0.02 0.959 0.231" />
      </geometry>
      <origin xyz="0.33599999999999997 0.0 0.1155" rpy="0.0 -0.0 0.0" />
      <material name="drawer_0.251_0.692_0.999_7_right_main_color">
        <color rgba="0.4 0.4 0.4 1.0" />
      </material>
    </visual>
    <visual name="drawer_0.251_0.692_0.999_7_surface_0_0">
      <geometry>
        <box size="0.6519999999999999 0.959 0.02" />
      </geometry>
      <origin xyz="0.0 0.0 0.010000000000000018" rpy="0.0 -0.0 0.0" />
      <material name="drawer_0.251_0.692_0.999_7_surface_0_0_main_color">
        <color rgba="0.4 0.4 0.4 1.0" />
      </material>
    </visual>
    <visual name="drawer_0.251_0.692_0.999_7_top">
      <geometry>
        <box size="0.692 0.979 0.02" />
      </geometry>
      <origin xyz="0.0 0.01 0.241" rpy="0.0 -0.0 0.0" />
      <material name="drawer_0.251_0.692_0.999_7_top_main_color">
        <color rgba="0.4 0.4 0.4 1.0" />
      </material>
    </visual>
    <collision name="drawer_0.251_0.692_0.999_7_back">
      <geometry>
        <box size="0.692 0.02 0.231" />
      </geometry>
      <origin xyz="0.0 0.4895 0.1155" rpy="0.0 -0.0 0.0" />
    </collision>
    <collision name="drawer_0.251_0.692_0.999_7_left">
      <geometry>
        <box size="0.02 0.959 0.231" />
      </geometry>
      <origin xyz="-0.33599999999999997 0.0 0.1155" rpy="0.0 -0.0 0.0" />
    </collision>
    <collision name="drawer_0.251_0.692_0.999_7_right">
      <geometry>
        <box size="0.02 0.959 0.231" />
      </geometry>
      <origin xyz="0.33599999999999997 0.0 0.1155" rpy="0.0 -0.0 0.0" />
    </collision>
    <collision name="drawer_0.251_0.692_0.999_7_surface_0_0">
      <geometry>
        <box size="0.6519999999999999 0.959 0.02" />
      </geometry>
      <origin xyz="0.0 0.0 0.010000000000000018" rpy="0.0 -0.0 0.0" />
    </collision>
    <collision name="drawer_0.251_0.692_0.999_7_top">
      <geometry>
        <box size="0.692 0.979 0.02" />
      </geometry>
      <origin xyz="0.0 0.01 0.241" rpy="0.0 -0.0 0.0" />
    </collision>
  </link>
  <link name="drawer_0.251_0.692_0.999_7_drawer_0_0">
    <inertial>
      <origin xyz="0.0 0.0 0.0" rpy="0.0 -0.0 0.0" />
      <mass value="0.09999999999999999" />
      <inertia ixx="1.0" ixy="0.0" ixz="0.0" iyy="1.0" iyz="0.0" izz="1.0" />
    </inertial>
    <visual><geometry><mesh filename="second_floor_kitchen_pipleine/drawer_0.251_0.692_0.999_7.obj" /></geometry><material name="drawer_0.251_0.692_0.999_7_drawer_0_0_material"><color rgba="0.8 0.8 0.8 1.0" /></material></visual><collision><geometry><box size="0.688000 0.991200 0.247000" /></geometry><origin xyz="0.000000 0.365500 0.000000" rpy="0 0 0" /></collision></link>
  <link name="drawer_0.251_0.692_0.999_8_corpus">
    <inertial>
      <origin xyz="0.0 0.0 0.0" rpy="0.0 -0.0 0.0" />
      <mass value="0.038112919999999995" />
      <inertia ixx="1.0" ixy="0.0" ixz="0.0" iyy="1.0" iyz="0.0" izz="1.0" />
    </inertial>
    <visual name="drawer_0.251_0.692_0.999_8_back">
      <geometry>
        <box size="0.692 0.02 0.231" />
      </geometry>
      <origin xyz="0.0 0.4895 0.1155" rpy="0.0 -0.0 0.0" />
      <material name="drawer_0.251_0.692_0.999_8_back_main_color">
        <color rgba="0.4 0.4 0.4 1.0" />
      </material>
    </visual>
    <visual name="drawer_0.251_0.692_0.999_8_left">
      <geometry>
        <box size="0.02 0.959 0.231" />
      </geometry>
      <origin xyz="-0.33599999999999997 0.0 0.1155" rpy="0.0 -0.0 0.0" />
      <material name="drawer_0.251_0.692_0.999_8_left_main_color">
        <color rgba="0.4 0.4 0.4 1.0" />
      </material>
    </visual>
    <visual name="drawer_0.251_0.692_0.999_8_right">
      <geometry>
        <box size="0.02 0.959 0.231" />
      </geometry>
      <origin xyz="0.33599999999999997 0.0 0.1155" rpy="0.0 -0.0 0.0" />
      <material name="drawer_0.251_0.692_0.999_8_right_main_color">
        <color rgba="0.4 0.4 0.4 1.0" />
      </material>
    </visual>
    <visual name="drawer_0.251_0.692_0.999_8_surface_0_0">
      <geometry>
        <box size="0.6519999999999999 0.959 0.02" />
      </geometry>
      <origin xyz="0.0 0.0 0.010000000000000018" rpy="0.0 -0.0 0.0" />
      <material name="drawer_0.251_0.692_0.999_8_surface_0_0_main_color">
        <color rgba="0.4 0.4 0.4 1.0" />
      </material>
    </visual>
    <visual name="drawer_0.251_0.692_0.999_8_top">
      <geometry>
        <box size="0.692 0.979 0.02" />
      </geometry>
      <origin xyz="0.0 0.01 0.241" rpy="0.0 -0.0 0.0" />
      <material name="drawer_0.251_0.692_0.999_8_top_main_color">
        <color rgba="0.4 0.4 0.4 1.0" />
      </material>
    </visual>
    <collision name="drawer_0.251_0.692_0.999_8_back">
      <geometry>
        <box size="0.692 0.02 0.231" />
      </geometry>
      <origin xyz="0.0 0.4895 0.1155" rpy="0.0 -0.0 0.0" />
    </collision>
    <collision name="drawer_0.251_0.692_0.999_8_left">
      <geometry>
        <box size="0.02 0.959 0.231" />
      </geometry>
      <origin xyz="-0.33599999999999997 0.0 0.1155" rpy="0.0 -0.0 0.0" />
    </collision>
    <collision name="drawer_0.251_0.692_0.999_8_right">
      <geometry>
        <box size="0.02 0.959 0.231" />
      </geometry>
      <origin xyz="0.33599999999999997 0.0 0.1155" rpy="0.0 -0.0 0.0" />
    </collision>
    <collision name="drawer_0.251_0.692_0.999_8_surface_0_0">
      <geometry>
        <box size="0.6519999999999999 0.959 0.02" />
      </geometry>
      <origin xyz="0.0 0.0 0.010000000000000018" rpy="0.0 -0.0 0.0" />
    </collision>
    <collision name="drawer_0.251_0.692_0.999_8_top">
      <geometry>
        <box size="0.692 0.979 0.02" />
      </geometry>
      <origin xyz="0.0 0.01 0.241" rpy="0.0 -0.0 0.0" />
    </collision>
  </link>
  <link name="drawer_0.251_0.692_0.999_8_drawer_0_0">
    <inertial>
      <origin xyz="0.0 0.0 0.0" rpy="0.0 -0.0 0.0" />
      <mass value="0.09999999999999999" />
      <inertia ixx="1.0" ixy="0.0" ixz="0.0" iyy="1.0" iyz="0.0" izz="1.0" />
    </inertial>
    <visual><geometry><mesh filename="second_floor_kitchen_pipleine/drawer_0.251_0.692_0.999_8.obj" /></geometry><material name="drawer_0.251_0.692_0.999_8_drawer_0_0_material"><color rgba="0.8 0.8 0.8 1.0" /></material></visual><collision><geometry><box size="0.688000 0.991200 0.247000" /></geometry><origin xyz="0.000000 0.365500 0.000000" rpy="0 0 0" /></collision></link>
  <link name="drawer_0.251_0.692_0.999_9_corpus">
    <inertial>
      <origin xyz="0.0 0.0 0.0" rpy="0.0 -0.0 0.0" />
      <mass value="0.038112919999999995" />
      <inertia ixx="1.0" ixy="0.0" ixz="0.0" iyy="1.0" iyz="0.0" izz="1.0" />
    </inertial>
    <visual name="drawer_0.251_0.692_0.999_9_back">
      <geometry>
        <box size="0.692 0.02 0.231" />
      </geometry>
      <origin xyz="0.0 0.4895 0.1155" rpy="0.0 -0.0 0.0" />
      <material name="drawer_0.251_0.692_0.999_9_back_main_color">
        <color rgba="0.4 0.4 0.4 1.0" />
      </material>
    </visual>
    <visual name="drawer_0.251_0.692_0.999_9_left">
      <geometry>
        <box size="0.02 0.959 0.231" />
      </geometry>
      <origin xyz="-0.33599999999999997 0.0 0.1155" rpy="0.0 -0.0 0.0" />
      <material name="drawer_0.251_0.692_0.999_9_left_main_color">
        <color rgba="0.4 0.4 0.4 1.0" />
      </material>
    </visual>
    <visual name="drawer_0.251_0.692_0.999_9_right">
      <geometry>
        <box size="0.02 0.959 0.231" />
      </geometry>
      <origin xyz="0.33599999999999997 0.0 0.1155" rpy="0.0 -0.0 0.0" />
      <material name="drawer_0.251_0.692_0.999_9_right_main_color">
        <color rgba="0.4 0.4 0.4 1.0" />
      </material>
    </visual>
    <visual name="drawer_0.251_0.692_0.999_9_surface_0_0">
      <geometry>
        <box size="0.6519999999999999 0.959 0.02" />
      </geometry>
      <origin xyz="0.0 0.0 0.010000000000000018" rpy="0.0 -0.0 0.0" />
      <material name="drawer_0.251_0.692_0.999_9_surface_0_0_main_color">
        <color rgba="0.4 0.4 0.4 1.0" />
      </material>
    </visual>
    <visual name="drawer_0.251_0.692_0.999_9_top">
      <geometry>
        <box size="0.692 0.979 0.02" />
      </geometry>
      <origin xyz="0.0 0.01 0.241" rpy="0.0 -0.0 0.0" />
      <material name="drawer_0.251_0.692_0.999_9_top_main_color">
        <color rgba="0.4 0.4 0.4 1.0" />
      </material>
    </visual>
    <collision name="drawer_0.251_0.692_0.999_9_back">
      <geometry>
        <box size="0.692 0.02 0.231" />
      </geometry>
      <origin xyz="0.0 0.4895 0.1155" rpy="0.0 -0.0 0.0" />
    </collision>
    <collision name="drawer_0.251_0.692_0.999_9_left">
      <geometry>
        <box size="0.02 0.959 0.231" />
      </geometry>
      <origin xyz="-0.33599999999999997 0.0 0.1155" rpy="0.0 -0.0 0.0" />
    </collision>
    <collision name="drawer_0.251_0.692_0.999_9_right">
      <geometry>
        <box size="0.02 0.959 0.231" />
      </geometry>
      <origin xyz="0.33599999999999997 0.0 0.1155" rpy="0.0 -0.0 0.0" />
    </collision>
    <collision name="drawer_0.251_0.692_0.999_9_surface_0_0">
      <geometry>
        <box size="0.6519999999999999 0.959 0.02" />
      </geometry>
      <origin xyz="0.0 0.0 0.010000000000000018" rpy="0.0 -0.0 0.0" />
    </collision>
    <collision name="drawer_0.251_0.692_0.999_9_top">
      <geometry>
        <box size="0.692 0.979 0.02" />
      </geometry>
      <origin xyz="0.0 0.01 0.241" rpy="0.0 -0.0 0.0" />
    </collision>
  </link>
  <link name="drawer_0.251_0.692_0.999_9_drawer_0_0">
    <inertial>
      <origin xyz="0.0 0.0 0.0" rpy="0.0 -0.0 0.0" />
      <mass value="0.09999999999999999" />
      <inertia ixx="1.0" ixy="0.0" ixz="0.0" iyy="1.0" iyz="0.0" izz="1.0" />
    </inertial>
    <visual><geometry><mesh filename="second_floor_kitchen_pipleine/drawer_0.251_0.692_0.999_9.obj" /></geometry><material name="drawer_0.251_0.692_0.999_9_drawer_0_0_material"><color rgba="0.8 0.8 0.8 1.0" /></material></visual><collision><geometry><box size="0.688000 0.991200 0.247000" /></geometry><origin xyz="0.000000 0.365500 0.000000" rpy="0 0 0" /></collision></link>
  <link name="drawer_0.251_0.692_0.999_10_corpus">
    <inertial>
      <origin xyz="0.0 0.0 0.0" rpy="0.0 -0.0 0.0" />
      <mass value="0.038112919999999995" />
      <inertia ixx="1.0" ixy="0.0" ixz="0.0" iyy="1.0" iyz="0.0" izz="1.0" />
    </inertial>
    <visual name="drawer_0.251_0.692_0.999_10_back">
      <geometry>
        <box size="0.692 0.02 0.231" />
      </geometry>
      <origin xyz="0.0 0.4895 0.1155" rpy="0.0 -0.0 0.0" />
      <material name="drawer_0.251_0.692_0.999_10_back_main_color">
        <color rgba="0.4 0.4 0.4 1.0" />
      </material>
    </visual>
    <visual name="drawer_0.251_0.692_0.999_10_left">
      <geometry>
        <box size="0.02 0.959 0.231" />
      </geometry>
      <origin xyz="-0.33599999999999997 0.0 0.1155" rpy="0.0 -0.0 0.0" />
      <material name="drawer_0.251_0.692_0.999_10_left_main_color">
        <color rgba="0.4 0.4 0.4 1.0" />
      </material>
    </visual>
    <visual name="drawer_0.251_0.692_0.999_10_right">
      <geometry>
        <box size="0.02 0.959 0.231" />
      </geometry>
      <origin xyz="0.33599999999999997 0.0 0.1155" rpy="0.0 -0.0 0.0" />
      <material name="drawer_0.251_0.692_0.999_10_right_main_color">
        <color rgba="0.4 0.4 0.4 1.0" />
      </material>
    </visual>
    <visual name="drawer_0.251_0.692_0.999_10_surface_0_0">
      <geometry>
        <box size="0.6519999999999999 0.959 0.02" />
      </geometry>
      <origin xyz="0.0 0.0 0.010000000000000018" rpy="0.0 -0.0 0.0" />
      <material name="drawer_0.251_0.692_0.999_10_surface_0_0_main_color">
        <color rgba="0.4 0.4 0.4 1.0" />
      </material>
    </visual>
    <visual name="drawer_0.251_0.692_0.999_10_top">
      <geometry>
        <box size="0.692 0.979 0.02" />
      </geometry>
      <origin xyz="0.0 0.01 0.241" rpy="0.0 -0.0 0.0" />
      <material name="drawer_0.251_0.692_0.999_10_top_main_color">
        <color rgba="0.4 0.4 0.4 1.0" />
      </material>
    </visual>
    <collision name="drawer_0.251_0.692_0.999_10_back">
      <geometry>
        <box size="0.692 0.02 0.231" />
      </geometry>
      <origin xyz="0.0 0.4895 0.1155" rpy="0.0 -0.0 0.0" />
    </collision>
    <collision name="drawer_0.251_0.692_0.999_10_left">
      <geometry>
        <box size="0.02 0.959 0.231" />
      </geometry>
      <origin xyz="-0.33599999999999997 0.0 0.1155" rpy="0.0 -0.0 0.0" />
    </collision>
    <collision name="drawer_0.251_0.692_0.999_10_right">
      <geometry>
        <box size="0.02 0.959 0.231" />
      </geometry>
      <origin xyz="0.33599999999999997 0.0 0.1155" rpy="0.0 -0.0 0.0" />
    </collision>
    <collision name="drawer_0.251_0.692_0.999_10_surface_0_0">
      <geometry>
        <box size="0.6519999999999999 0.959 0.02" />
      </geometry>
      <origin xyz="0.0 0.0 0.010000000000000018" rpy="0.0 -0.0 0.0" />
    </collision>
    <collision name="drawer_0.251_0.692_0.999_10_top">
      <geometry>
        <box size="0.692 0.979 0.02" />
      </geometry>
      <origin xyz="0.0 0.01 0.241" rpy="0.0 -0.0 0.0" />
    </collision>
  </link>
  <link name="drawer_0.251_0.692_0.999_10_drawer_0_0">
    <inertial>
      <origin xyz="0.0 0.0 0.0" rpy="0.0 -0.0 0.0" />
      <mass value="0.09999999999999999" />
      <inertia ixx="1.0" ixy="0.0" ixz="0.0" iyy="1.0" iyz="0.0" izz="1.0" />
    </inertial>
    <visual><geometry><mesh filename="second_floor_kitchen_pipleine/drawer_0.251_0.692_0.999_10.obj" /></geometry><material name="drawer_0.251_0.692_0.999_10_drawer_0_0_material"><color rgba="0.8 0.8 0.8 1.0" /></material></visual><collision><geometry><box size="0.688000 0.991200 0.247000" /></geometry><origin xyz="0.000000 0.365500 0.000000" rpy="0 0 0" /></collision></link>
  <link name="lower_right_cabinet_1.039_0.692_0.999_0_corpus">
    <inertial>
      <origin xyz="0.0 0.0 0.0" rpy="0.0 -0.0 0.0" />
      <mass value="0.08549919999999997" />
      <inertia ixx="1.0" ixy="0.0" ixz="0.0" iyy="1.0" iyz="0.0" izz="1.0" />
    </inertial>
    <visual name="lower_right_cabinet_1.039_0.692_0.999_0_back">
      <geometry>
        <box size="0.692 0.02 1.019" />
      </geometry>
      <origin xyz="0.0 0.4895 0.5095" rpy="0.0 -0.0 0.0" />
      <material name="lower_right_cabinet_1.039_0.692_0.999_0_back_main_color">
        <color rgba="0.4 0.4 0.4 1.0" />
      </material>
    </visual>
    <visual name="lower_right_cabinet_1.039_0.692_0.999_0_left">
      <geometry>
        <box size="0.02 0.959 1.019" />
      </geometry>
      <origin xyz="-0.33599999999999997 0.0 0.5095" rpy="0.0 -0.0 0.0" />
      <material name="lower_right_cabinet_1.039_0.692_0.999_0_left_main_color">
        <color rgba="0.4 0.4 0.4 1.0" />
      </material>
    </visual>
    <visual name="lower_right_cabinet_1.039_0.692_0.999_0_right">
      <geometry>
        <box size="0.02 0.959 1.019" />
      </geometry>
      <origin xyz="0.33599999999999997 0.0 0.5095" rpy="0.0 -0.0 0.0" />
      <material name="lower_right_cabinet_1.039_0.692_0.999_0_right_main_color">
        <color rgba="0.4 0.4 0.4 1.0" />
      </material>
    </visual>
    <visual name="lower_right_cabinet_1.039_0.692_0.999_0_shelf_0_0_0">
      <geometry>
        <box size="0.6519999999999999 0.959 0.01" />
      </geometry>
      <origin xyz="0.0 0.0 0.5195" rpy="0.0 -0.0 0.0" />
      <material name="lower_right_cabinet_1.039_0.692_0.999_0_shelf_0_0_0_main_color">
        <color rgba="0.4 0.4 0.4 1.0" />
      </material>
    </visual>
    <visual name="lower_right_cabinet_1.039_0.692_0.999_0_surface_0_0">
      <geometry>
        <box size="0.6519999999999999 0.959 0.02" />
      </geometry>
      <origin xyz="0.0 0.0 0.010000000000000018" rpy="0.0 -0.0 0.0" />
      <material name="lower_right_cabinet_1.039_0.692_0.999_0_surface_0_0_main_color">
        <color rgba="0.4 0.4 0.4 1.0" />
      </material>
    </visual>
    <visual name="lower_right_cabinet_1.039_0.692_0.999_0_top">
      <geometry>
        <box size="0.692 0.979 0.02" />
      </geometry>
      <origin xyz="0.0 0.01 1.029" rpy="0.0 -0.0 0.0" />
      <material name="lower_right_cabinet_1.039_0.692_0.999_0_top_main_color">
        <color rgba="0.4 0.4 0.4 1.0" />
      </material>
    </visual>
    <collision name="lower_right_cabinet_1.039_0.692_0.999_0_back">
      <geometry>
        <box size="0.692 0.02 1.019" />
      </geometry>
      <origin xyz="0.0 0.4895 0.5095" rpy="0.0 -0.0 0.0" />
    </collision>
    <collision name="lower_right_cabinet_1.039_0.692_0.999_0_left">
      <geometry>
        <box size="0.02 0.959 1.019" />
      </geometry>
      <origin xyz="-0.33599999999999997 0.0 0.5095" rpy="0.0 -0.0 0.0" />
    </collision>
    <collision name="lower_right_cabinet_1.039_0.692_0.999_0_right">
      <geometry>
        <box size="0.02 0.959 1.019" />
      </geometry>
      <origin xyz="0.33599999999999997 0.0 0.5095" rpy="0.0 -0.0 0.0" />
    </collision>
    <collision name="lower_right_cabinet_1.039_0.692_0.999_0_shelf_0_0_0">
      <geometry>
        <box size="0.6519999999999999 0.959 0.01" />
      </geometry>
      <origin xyz="0.0 0.0 0.5195" rpy="0.0 -0.0 0.0" />
    </collision>
    <collision name="lower_right_cabinet_1.039_0.692_0.999_0_surface_0_0">
      <geometry>
        <box size="0.6519999999999999 0.959 0.02" />
      </geometry>
      <origin xyz="0.0 0.0 0.010000000000000018" rpy="0.0 -0.0 0.0" />
    </collision>
    <collision name="lower_right_cabinet_1.039_0.692_0.999_0_top">
      <geometry>
        <box size="0.692 0.979 0.02" />
      </geometry>
      <origin xyz="0.0 0.01 1.029" rpy="0.0 -0.0 0.0" />
    </collision>
  </link>
  <link name="lower_right_cabinet_1.039_0.692_0.999_0_door_0_0">
    <inertial>
      <origin xyz="0.0 0.0 0.0" rpy="0.0 -0.0 0.0" />
      <mass value="0.09999999999999999" />
      <inertia ixx="1.0" ixy="0.0" ixz="0.0" iyy="1.0" iyz="0.0" izz="1.0" />
    </inertial>
    <visual><geometry><mesh filename="second_floor_kitchen_pipleine/lower_right_cabinet_1.039_0.692_0.999_0.obj" /></geometry><material name="lower_right_cabinet_1.039_0.692_0.999_0_door_0_0_material"><color rgba="0.8 0.8 0.8 1.0" /></material></visual><collision><geometry><box size="0.688000 0.168200 1.035000" /></geometry><origin xyz="0.344000 -0.026000 0.000000" rpy="0 0 0" /></collision></link>
  <link name="lower_left_cabinet_1.29_0.692_0.4995_0_corpus">
    <inertial>
      <origin xyz="0.0 0.0 0.0" rpy="0.0 -0.0 0.0" />
      <mass value="0.08549919999999997" />
      <inertia ixx="1.0" ixy="0.0" ixz="0.0" iyy="1.0" iyz="0.0" izz="1.0" />
    </inertial>
    <visual name="lower_left_cabinet_1.29_0.692_0.4995_0_back">
      <geometry>
        <box size="0.692 0.02 1.019" />
      </geometry>
      <origin xyz="0.0 0.4895 0.5095" rpy="0.0 -0.0 0.0" />
      <material name="lower_left_cabinet_1.29_0.692_0.4995_0_back_main_color">
        <color rgba="0.4 0.4 0.4 1.0" />
      </material>
    </visual>
    <visual name="lower_left_cabinet_1.29_0.692_0.4995_0_left">
      <geometry>
        <box size="0.02 0.959 1.019" />
      </geometry>
      <origin xyz="-0.33599999999999997 0.0 0.5095" rpy="0.0 -0.0 0.0" />
      <material name="lower_left_cabinet_1.29_0.692_0.4995_0_left_main_color">
        <color rgba="0.4 0.4 0.4 1.0" />
      </material>
    </visual>
    <visual name="lower_left_cabinet_1.29_0.692_0.4995_0_right">
      <geometry>
        <box size="0.02 0.959 1.019" />
      </geometry>
      <origin xyz="0.33599999999999997 0.0 0.5095" rpy="0.0 -0.0 0.0" />
      <material name="lower_left_cabinet_1.29_0.692_0.4995_0_right_main_color">
        <color rgba="0.4 0.4 0.4 1.0" />
      </material>
    </visual>
    <visual name="lower_left_cabinet_1.29_0.692_0.4995_0_shelf_0_0_0">
      <geometry>
        <box size="0.6519999999999999 0.959 0.01" />
      </geometry>
      <origin xyz="0.0 0.0 0.5195" rpy="0.0 -0.0 0.0" />
      <material name="lower_left_cabinet_1.29_0.692_0.4995_0_shelf_0_0_0_main_color">
        <color rgba="0.4 0.4 0.4 1.0" />
      </material>
    </visual>
    <visual name="lower_left_cabinet_1.29_0.692_0.4995_0_surface_0_0">
      <geometry>
        <box size="0.6519999999999999 0.959 0.02" />
      </geometry>
      <origin xyz="0.0 0.0 0.010000000000000018" rpy="0.0 -0.0 0.0" />
      <material name="lower_left_cabinet_1.29_0.692_0.4995_0_surface_0_0_main_color">
        <color rgba="0.4 0.4 0.4 1.0" />
      </material>
    </visual>
    <visual name="lower_left_cabinet_1.29_0.692_0.4995_0_top">
      <geometry>
        <box size="0.692 0.979 0.02" />
      </geometry>
      <origin xyz="0.0 0.01 1.029" rpy="0.0 -0.0 0.0" />
      <material name="lower_left_cabinet_1.29_0.692_0.4995_0_top_main_color">
        <color rgba="0.4 0.4 0.4 1.0" />
      </material>
    </visual>
    <collision name="lower_left_cabinet_1.29_0.692_0.4995_0_back">
      <geometry>
        <box size="0.692 0.02 1.019" />
      </geometry>
      <origin xyz="0.0 0.4895 0.5095" rpy="0.0 -0.0 0.0" />
    </collision>
    <collision name="lower_left_cabinet_1.29_0.692_0.4995_0_left">
      <geometry>
        <box size="0.02 0.959 1.019" />
      </geometry>
      <origin xyz="-0.33599999999999997 0.0 0.5095" rpy="0.0 -0.0 0.0" />
    </collision>
    <collision name="lower_left_cabinet_1.29_0.692_0.4995_0_right">
      <geometry>
        <box size="0.02 0.959 1.019" />
      </geometry>
      <origin xyz="0.33599999999999997 0.0 0.5095" rpy="0.0 -0.0 0.0" />
    </collision>
    <collision name="lower_left_cabinet_1.29_0.692_0.4995_0_shelf_0_0_0">
      <geometry>
        <box size="0.6519999999999999 0.959 0.01" />
      </geometry>
      <origin xyz="0.0 0.0 0.5195" rpy="0.0 -0.0 0.0" />
    </collision>
    <collision name="lower_left_cabinet_1.29_0.692_0.4995_0_surface_0_0">
      <geometry>
        <box size="0.6519999999999999 0.959 0.02" />
      </geometry>
      <origin xyz="0.0 0.0 0.010000000000000018" rpy="0.0 -0.0 0.0" />
    </collision>
    <collision name="lower_left_cabinet_1.29_0.692_0.4995_0_top">
      <geometry>
        <box size="0.692 0.979 0.02" />
      </geometry>
      <origin xyz="0.0 0.01 1.029" rpy="0.0 -0.0 0.0" />
    </collision>
  </link>
  <link name="lower_left_cabinet_1.29_0.692_0.4995_0_door_0_0">
    <inertial>
      <origin xyz="0.0 0.0 0.0" rpy="0.0 -0.0 0.0" />
      <mass value="0.09999999999999999" />
      <inertia ixx="1.0" ixy="0.0" ixz="0.0" iyy="1.0" iyz="0.0" izz="1.0" />
    </inertial>
    <visual><geometry><mesh filename="second_floor_kitchen_pipleine/lower_left_cabinet_1.29_0.692_0.4995_0.obj" /></geometry><material name="lower_left_cabinet_1.29_0.692_0.4995_0_door_0_0_material"><color rgba="0.8 0.8 0.8 1.0" /></material></visual><collision><geometry><box size="0.688000 0.168200 1.035000" /></geometry><origin xyz="-0.344000 -0.026000 0.000000" rpy="0 0 0" /></collision></link>
  <link name="lower_right_cabinet_1.039_0.692_0.999_1_corpus">
    <inertial>
      <origin xyz="0.0 0.0 0.0" rpy="0.0 -0.0 0.0" />
      <mass value="0.08549919999999997" />
      <inertia ixx="1.0" ixy="0.0" ixz="0.0" iyy="1.0" iyz="0.0" izz="1.0" />
    </inertial>
    <visual name="lower_right_cabinet_1.039_0.692_0.999_1_back">
      <geometry>
        <box size="0.692 0.02 1.019" />
      </geometry>
      <origin xyz="0.0 0.4895 0.5095" rpy="0.0 -0.0 0.0" />
      <material name="lower_right_cabinet_1.039_0.692_0.999_1_back_main_color">
        <color rgba="0.4 0.4 0.4 1.0" />
      </material>
    </visual>
    <visual name="lower_right_cabinet_1.039_0.692_0.999_1_left">
      <geometry>
        <box size="0.02 0.959 1.019" />
      </geometry>
      <origin xyz="-0.33599999999999997 0.0 0.5095" rpy="0.0 -0.0 0.0" />
      <material name="lower_right_cabinet_1.039_0.692_0.999_1_left_main_color">
        <color rgba="0.4 0.4 0.4 1.0" />
      </material>
    </visual>
    <visual name="lower_right_cabinet_1.039_0.692_0.999_1_right">
      <geometry>
        <box size="0.02 0.959 1.019" />
      </geometry>
      <origin xyz="0.33599999999999997 0.0 0.5095" rpy="0.0 -0.0 0.0" />
      <material name="lower_right_cabinet_1.039_0.692_0.999_1_right_main_color">
        <color rgba="0.4 0.4 0.4 1.0" />
      </material>
    </visual>
    <visual name="lower_right_cabinet_1.039_0.692_0.999_1_shelf_0_0_0">
      <geometry>
        <box size="0.6519999999999999 0.959 0.01" />
      </geometry>
      <origin xyz="0.0 0.0 0.5195" rpy="0.0 -0.0 0.0" />
      <material name="lower_right_cabinet_1.039_0.692_0.999_1_shelf_0_0_0_main_color">
        <color rgba="0.4 0.4 0.4 1.0" />
      </material>
    </visual>
    <visual name="lower_right_cabinet_1.039_0.692_0.999_1_surface_0_0">
      <geometry>
        <box size="0.6519999999999999 0.959 0.02" />
      </geometry>
      <origin xyz="0.0 0.0 0.010000000000000018" rpy="0.0 -0.0 0.0" />
      <material name="lower_right_cabinet_1.039_0.692_0.999_1_surface_0_0_main_color">
        <color rgba="0.4 0.4 0.4 1.0" />
      </material>
    </visual>
    <visual name="lower_right_cabinet_1.039_0.692_0.999_1_top">
      <geometry>
        <box size="0.692 0.979 0.02" />
      </geometry>
      <origin xyz="0.0 0.01 1.029" rpy="0.0 -0.0 0.0" />
      <material name="lower_right_cabinet_1.039_0.692_0.999_1_top_main_color">
        <color rgba="0.4 0.4 0.4 1.0" />
      </material>
    </visual>
    <collision name="lower_right_cabinet_1.039_0.692_0.999_1_back">
      <geometry>
        <box size="0.692 0.02 1.019" />
      </geometry>
      <origin xyz="0.0 0.4895 0.5095" rpy="0.0 -0.0 0.0" />
    </collision>
    <collision name="lower_right_cabinet_1.039_0.692_0.999_1_left">
      <geometry>
        <box size="0.02 0.959 1.019" />
      </geometry>
      <origin xyz="-0.33599999999999997 0.0 0.5095" rpy="0.0 -0.0 0.0" />
    </collision>
    <collision name="lower_right_cabinet_1.039_0.692_0.999_1_right">
      <geometry>
        <box size="0.02 0.959 1.019" />
      </geometry>
      <origin xyz="0.33599999999999997 0.0 0.5095" rpy="0.0 -0.0 0.0" />
    </collision>
    <collision name="lower_right_cabinet_1.039_0.692_0.999_1_shelf_0_0_0">
      <geometry>
        <box size="0.6519999999999999 0.959 0.01" />
      </geometry>
      <origin xyz="0.0 0.0 0.5195" rpy="0.0 -0.0 0.0" />
    </collision>
    <collision name="lower_right_cabinet_1.039_0.692_0.999_1_surface_0_0">
      <geometry>
        <box size="0.6519999999999999 0.959 0.02" />
      </geometry>
      <origin xyz="0.0 0.0 0.010000000000000018" rpy="0.0 -0.0 0.0" />
    </collision>
    <collision name="lower_right_cabinet_1.039_0.692_0.999_1_top">
      <geometry>
        <box size="0.692 0.979 0.02" />
      </geometry>
      <origin xyz="0.0 0.01 1.029" rpy="0.0 -0.0 0.0" />
    </collision>
  </link>
  <link name="lower_right_cabinet_1.039_0.692_0.999_1_door_0_0">
    <inertial>
      <origin xyz="0.0 0.0 0.0" rpy="0.0 -0.0 0.0" />
      <mass value="0.09999999999999999" />
      <inertia ixx="1.0" ixy="0.0" ixz="0.0" iyy="1.0" iyz="0.0" izz="1.0" />
    </inertial>
    <visual><geometry><mesh filename="second_floor_kitchen_pipleine/lower_right_cabinet_1.039_0.692_0.999_1.obj" /></geometry><material name="lower_right_cabinet_1.039_0.692_0.999_1_door_0_0_material"><color rgba="0.8 0.8 0.8 1.0" /></material></visual><collision><geometry><box size="0.688000 0.168200 1.035000" /></geometry><origin xyz="0.344000 -0.026000 0.000000" rpy="0 0 0" /></collision></link>
  <link name="lower_left_cabinet_1.29_0.692_0.4995_1_corpus">
    <inertial>
      <origin xyz="0.0 0.0 0.0" rpy="0.0 -0.0 0.0" />
      <mass value="0.08549919999999997" />
      <inertia ixx="1.0" ixy="0.0" ixz="0.0" iyy="1.0" iyz="0.0" izz="1.0" />
    </inertial>
    <visual name="lower_left_cabinet_1.29_0.692_0.4995_1_back">
      <geometry>
        <box size="0.692 0.02 1.019" />
      </geometry>
      <origin xyz="0.0 0.4895 0.5095" rpy="0.0 -0.0 0.0" />
      <material name="lower_left_cabinet_1.29_0.692_0.4995_1_back_main_color">
        <color rgba="0.4 0.4 0.4 1.0" />
      </material>
    </visual>
    <visual name="lower_left_cabinet_1.29_0.692_0.4995_1_left">
      <geometry>
        <box size="0.02 0.959 1.019" />
      </geometry>
      <origin xyz="-0.33599999999999997 0.0 0.5095" rpy="0.0 -0.0 0.0" />
      <material name="lower_left_cabinet_1.29_0.692_0.4995_1_left_main_color">
        <color rgba="0.4 0.4 0.4 1.0" />
      </material>
    </visual>
    <visual name="lower_left_cabinet_1.29_0.692_0.4995_1_right">
      <geometry>
        <box size="0.02 0.959 1.019" />
      </geometry>
      <origin xyz="0.33599999999999997 0.0 0.5095" rpy="0.0 -0.0 0.0" />
      <material name="lower_left_cabinet_1.29_0.692_0.4995_1_right_main_color">
        <color rgba="0.4 0.4 0.4 1.0" />
      </material>
    </visual>
    <visual name="lower_left_cabinet_1.29_0.692_0.4995_1_shelf_0_0_0">
      <geometry>
        <box size="0.6519999999999999 0.959 0.01" />
      </geometry>
      <origin xyz="0.0 0.0 0.5195" rpy="0.0 -0.0 0.0" />
      <material name="lower_left_cabinet_1.29_0.692_0.4995_1_shelf_0_0_0_main_color">
        <color rgba="0.4 0.4 0.4 1.0" />
      </material>
    </visual>
    <visual name="lower_left_cabinet_1.29_0.692_0.4995_1_surface_0_0">
      <geometry>
        <box size="0.6519999999999999 0.959 0.02" />
      </geometry>
      <origin xyz="0.0 0.0 0.010000000000000018" rpy="0.0 -0.0 0.0" />
      <material name="lower_left_cabinet_1.29_0.692_0.4995_1_surface_0_0_main_color">
        <color rgba="0.4 0.4 0.4 1.0" />
      </material>
    </visual>
    <visual name="lower_left_cabinet_1.29_0.692_0.4995_1_top">
      <geometry>
        <box size="0.692 0.979 0.02" />
      </geometry>
      <origin xyz="0.0 0.01 1.029" rpy="0.0 -0.0 0.0" />
      <material name="lower_left_cabinet_1.29_0.692_0.4995_1_top_main_color">
        <color rgba="0.4 0.4 0.4 1.0" />
      </material>
    </visual>
    <collision name="lower_left_cabinet_1.29_0.692_0.4995_1_back">
      <geometry>
        <box size="0.692 0.02 1.019" />
      </geometry>
      <origin xyz="0.0 0.4895 0.5095" rpy="0.0 -0.0 0.0" />
    </collision>
    <collision name="lower_left_cabinet_1.29_0.692_0.4995_1_left">
      <geometry>
        <box size="0.02 0.959 1.019" />
      </geometry>
      <origin xyz="-0.33599999999999997 0.0 0.5095" rpy="0.0 -0.0 0.0" />
    </collision>
    <collision name="lower_left_cabinet_1.29_0.692_0.4995_1_right">
      <geometry>
        <box size="0.02 0.959 1.019" />
      </geometry>
      <origin xyz="0.33599999999999997 0.0 0.5095" rpy="0.0 -0.0 0.0" />
    </collision>
    <collision name="lower_left_cabinet_1.29_0.692_0.4995_1_shelf_0_0_0">
      <geometry>
        <box size="0.6519999999999999 0.959 0.01" />
      </geometry>
      <origin xyz="0.0 0.0 0.5195" rpy="0.0 -0.0 0.0" />
    </collision>
    <collision name="lower_left_cabinet_1.29_0.692_0.4995_1_surface_0_0">
      <geometry>
        <box size="0.6519999999999999 0.959 0.02" />
      </geometry>
      <origin xyz="0.0 0.0 0.010000000000000018" rpy="0.0 -0.0 0.0" />
    </collision>
    <collision name="lower_left_cabinet_1.29_0.692_0.4995_1_top">
      <geometry>
        <box size="0.692 0.979 0.02" />
      </geometry>
      <origin xyz="0.0 0.01 1.029" rpy="0.0 -0.0 0.0" />
    </collision>
  </link>
  <link name="lower_left_cabinet_1.29_0.692_0.4995_1_door_0_0">
    <inertial>
      <origin xyz="0.0 0.0 0.0" rpy="0.0 -0.0 0.0" />
      <mass value="0.09999999999999999" />
      <inertia ixx="1.0" ixy="0.0" ixz="0.0" iyy="1.0" iyz="0.0" izz="1.0" />
    </inertial>
    <visual><geometry><mesh filename="second_floor_kitchen_pipleine/lower_left_cabinet_1.29_0.692_0.4995_1.obj" /></geometry><material name="lower_left_cabinet_1.29_0.692_0.4995_1_door_0_0_material"><color rgba="0.8 0.8 0.8 1.0" /></material></visual><collision><geometry><box size="0.688000 0.168200 1.035000" /></geometry><origin xyz="-0.344000 -0.026000 0.000000" rpy="0 0 0" /></collision></link>
  <link name="lower_right_cabinet_1.039_0.692_0.999_5_corpus">
    <inertial>
      <origin xyz="0.0 0.0 0.0" rpy="0.0 -0.0 0.0" />
      <mass value="0.08549919999999997" />
      <inertia ixx="1.0" ixy="0.0" ixz="0.0" iyy="1.0" iyz="0.0" izz="1.0" />
    </inertial>
    <visual name="lower_right_cabinet_1.039_0.692_0.999_5_back">
      <geometry>
        <box size="0.692 0.02 1.019" />
      </geometry>
      <origin xyz="0.0 0.4895 0.5095" rpy="0.0 -0.0 0.0" />
      <material name="lower_right_cabinet_1.039_0.692_0.999_5_back_main_color">
        <color rgba="0.4 0.4 0.4 1.0" />
      </material>
    </visual>
    <visual name="lower_right_cabinet_1.039_0.692_0.999_5_left">
      <geometry>
        <box size="0.02 0.959 1.019" />
      </geometry>
      <origin xyz="-0.33599999999999997 0.0 0.5095" rpy="0.0 -0.0 0.0" />
      <material name="lower_right_cabinet_1.039_0.692_0.999_5_left_main_color">
        <color rgba="0.4 0.4 0.4 1.0" />
      </material>
    </visual>
    <visual name="lower_right_cabinet_1.039_0.692_0.999_5_right">
      <geometry>
        <box size="0.02 0.959 1.019" />
      </geometry>
      <origin xyz="0.33599999999999997 0.0 0.5095" rpy="0.0 -0.0 0.0" />
      <material name="lower_right_cabinet_1.039_0.692_0.999_5_right_main_color">
        <color rgba="0.4 0.4 0.4 1.0" />
      </material>
    </visual>
    <visual name="lower_right_cabinet_1.039_0.692_0.999_5_shelf_0_0_0">
      <geometry>
        <box size="0.6519999999999999 0.959 0.01" />
      </geometry>
      <origin xyz="0.0 0.0 0.5195" rpy="0.0 -0.0 0.0" />
      <material name="lower_right_cabinet_1.039_0.692_0.999_5_shelf_0_0_0_main_color">
        <color rgba="0.4 0.4 0.4 1.0" />
      </material>
    </visual>
    <visual name="lower_right_cabinet_1.039_0.692_0.999_5_surface_0_0">
      <geometry>
        <box size="0.6519999999999999 0.959 0.02" />
      </geometry>
      <origin xyz="0.0 0.0 0.010000000000000018" rpy="0.0 -0.0 0.0" />
      <material name="lower_right_cabinet_1.039_0.692_0.999_5_surface_0_0_main_color">
        <color rgba="0.4 0.4 0.4 1.0" />
      </material>
    </visual>
    <visual name="lower_right_cabinet_1.039_0.692_0.999_5_top">
      <geometry>
        <box size="0.692 0.979 0.02" />
      </geometry>
      <origin xyz="0.0 0.01 1.029" rpy="0.0 -0.0 0.0" />
      <material name="lower_right_cabinet_1.039_0.692_0.999_5_top_main_color">
        <color rgba="0.4 0.4 0.4 1.0" />
      </material>
    </visual>
    <collision name="lower_right_cabinet_1.039_0.692_0.999_5_back">
      <geometry>
        <box size="0.692 0.02 1.019" />
      </geometry>
      <origin xyz="0.0 0.4895 0.5095" rpy="0.0 -0.0 0.0" />
    </collision>
    <collision name="lower_right_cabinet_1.039_0.692_0.999_5_left">
      <geometry>
        <box size="0.02 0.959 1.019" />
      </geometry>
      <origin xyz="-0.33599999999999997 0.0 0.5095" rpy="0.0 -0.0 0.0" />
    </collision>
    <collision name="lower_right_cabinet_1.039_0.692_0.999_5_right">
      <geometry>
        <box size="0.02 0.959 1.019" />
      </geometry>
      <origin xyz="0.33599999999999997 0.0 0.5095" rpy="0.0 -0.0 0.0" />
    </collision>
    <collision name="lower_right_cabinet_1.039_0.692_0.999_5_shelf_0_0_0">
      <geometry>
        <box size="0.6519999999999999 0.959 0.01" />
      </geometry>
      <origin xyz="0.0 0.0 0.5195" rpy="0.0 -0.0 0.0" />
    </collision>
    <collision name="lower_right_cabinet_1.039_0.692_0.999_5_surface_0_0">
      <geometry>
        <box size="0.6519999999999999 0.959 0.02" />
      </geometry>
      <origin xyz="0.0 0.0 0.010000000000000018" rpy="0.0 -0.0 0.0" />
    </collision>
    <collision name="lower_right_cabinet_1.039_0.692_0.999_5_top">
      <geometry>
        <box size="0.692 0.979 0.02" />
      </geometry>
      <origin xyz="0.0 0.01 1.029" rpy="0.0 -0.0 0.0" />
    </collision>
  </link>
  <link name="lower_right_cabinet_1.039_0.692_0.999_5_door_0_0">
    <inertial>
      <origin xyz="0.0 0.0 0.0" rpy="0.0 -0.0 0.0" />
      <mass value="0.09999999999999999" />
      <inertia ixx="1.0" ixy="0.0" ixz="0.0" iyy="1.0" iyz="0.0" izz="1.0" />
    </inertial>
    <visual><geometry><mesh filename="second_floor_kitchen_pipleine/lower_right_cabinet_1.039_0.692_0.999_5.obj" /></geometry><material name="lower_right_cabinet_1.039_0.692_0.999_5_door_0_0_material"><color rgba="0.8 0.8 0.8 1.0" /></material></visual><collision><geometry><box size="0.688000 0.168200 1.035000" /></geometry><origin xyz="0.344000 -0.026000 0.000000" rpy="0 0 0" /></collision></link>
  <link name="lower_left_cabinet_1.29_0.692_0.4995_5_corpus">
    <inertial>
      <origin xyz="0.0 0.0 0.0" rpy="0.0 -0.0 0.0" />
      <mass value="0.08549919999999997" />
      <inertia ixx="1.0" ixy="0.0" ixz="0.0" iyy="1.0" iyz="0.0" izz="1.0" />
    </inertial>
    <visual name="lower_left_cabinet_1.29_0.692_0.4995_5_back">
      <geometry>
        <box size="0.692 0.02 1.019" />
      </geometry>
      <origin xyz="0.0 0.4895 0.5095" rpy="0.0 -0.0 0.0" />
      <material name="lower_left_cabinet_1.29_0.692_0.4995_5_back_main_color">
        <color rgba="0.4 0.4 0.4 1.0" />
      </material>
    </visual>
    <visual name="lower_left_cabinet_1.29_0.692_0.4995_5_left">
      <geometry>
        <box size="0.02 0.959 1.019" />
      </geometry>
      <origin xyz="-0.33599999999999997 0.0 0.5095" rpy="0.0 -0.0 0.0" />
      <material name="lower_left_cabinet_1.29_0.692_0.4995_5_left_main_color">
        <color rgba="0.4 0.4 0.4 1.0" />
      </material>
    </visual>
    <visual name="lower_left_cabinet_1.29_0.692_0.4995_5_right">
      <geometry>
        <box size="0.02 0.959 1.019" />
      </geometry>
      <origin xyz="0.33599999999999997 0.0 0.5095" rpy="0.0 -0.0 0.0" />
      <material name="lower_left_cabinet_1.29_0.692_0.4995_5_right_main_color">
        <color rgba="0.4 0.4 0.4 1.0" />
      </material>
    </visual>
    <visual name="lower_left_cabinet_1.29_0.692_0.4995_5_shelf_0_0_0">
      <geometry>
        <box size="0.6519999999999999 0.959 0.01" />
      </geometry>
      <origin xyz="0.0 0.0 0.5195" rpy="0.0 -0.0 0.0" />
      <material name="lower_left_cabinet_1.29_0.692_0.4995_5_shelf_0_0_0_main_color">
        <color rgba="0.4 0.4 0.4 1.0" />
      </material>
    </visual>
    <visual name="lower_left_cabinet_1.29_0.692_0.4995_5_surface_0_0">
      <geometry>
        <box size="0.6519999999999999 0.959 0.02" />
      </geometry>
      <origin xyz="0.0 0.0 0.010000000000000018" rpy="0.0 -0.0 0.0" />
      <material name="lower_left_cabinet_1.29_0.692_0.4995_5_surface_0_0_main_color">
        <color rgba="0.4 0.4 0.4 1.0" />
      </material>
    </visual>
    <visual name="lower_left_cabinet_1.29_0.692_0.4995_5_top">
      <geometry>
        <box size="0.692 0.979 0.02" />
      </geometry>
      <origin xyz="0.0 0.01 1.029" rpy="0.0 -0.0 0.0" />
      <material name="lower_left_cabinet_1.29_0.692_0.4995_5_top_main_color">
        <color rgba="0.4 0.4 0.4 1.0" />
      </material>
    </visual>
    <collision name="lower_left_cabinet_1.29_0.692_0.4995_5_back">
      <geometry>
        <box size="0.692 0.02 1.019" />
      </geometry>
      <origin xyz="0.0 0.4895 0.5095" rpy="0.0 -0.0 0.0" />
    </collision>
    <collision name="lower_left_cabinet_1.29_0.692_0.4995_5_left">
      <geometry>
        <box size="0.02 0.959 1.019" />
      </geometry>
      <origin xyz="-0.33599999999999997 0.0 0.5095" rpy="0.0 -0.0 0.0" />
    </collision>
    <collision name="lower_left_cabinet_1.29_0.692_0.4995_5_right">
      <geometry>
        <box size="0.02 0.959 1.019" />
      </geometry>
      <origin xyz="0.33599999999999997 0.0 0.5095" rpy="0.0 -0.0 0.0" />
    </collision>
    <collision name="lower_left_cabinet_1.29_0.692_0.4995_5_shelf_0_0_0">
      <geometry>
        <box size="0.6519999999999999 0.959 0.01" />
      </geometry>
      <origin xyz="0.0 0.0 0.5195" rpy="0.0 -0.0 0.0" />
    </collision>
    <collision name="lower_left_cabinet_1.29_0.692_0.4995_5_surface_0_0">
      <geometry>
        <box size="0.6519999999999999 0.959 0.02" />
      </geometry>
      <origin xyz="0.0 0.0 0.010000000000000018" rpy="0.0 -0.0 0.0" />
    </collision>
    <collision name="lower_left_cabinet_1.29_0.692_0.4995_5_top">
      <geometry>
        <box size="0.692 0.979 0.02" />
      </geometry>
      <origin xyz="0.0 0.01 1.029" rpy="0.0 -0.0 0.0" />
    </collision>
  </link>
  <link name="lower_left_cabinet_1.29_0.692_0.4995_5_door_0_0">
    <inertial>
      <origin xyz="0.0 0.0 0.0" rpy="0.0 -0.0 0.0" />
      <mass value="0.09999999999999999" />
      <inertia ixx="1.0" ixy="0.0" ixz="0.0" iyy="1.0" iyz="0.0" izz="1.0" />
    </inertial>
    <visual><geometry><mesh filename="second_floor_kitchen_pipleine/lower_left_cabinet_1.29_0.692_0.4995_5.obj" /></geometry><material name="lower_left_cabinet_1.29_0.692_0.4995_5_door_0_0_material"><color rgba="0.8 0.8 0.8 1.0" /></material></visual><collision><geometry><box size="0.688000 0.168200 1.035000" /></geometry><origin xyz="-0.344000 -0.026000 0.000000" rpy="0 0 0" /></collision></link>
  <link name="lower_right_cabinet_1.039_0.692_0.999_2_corpus">
    <inertial>
      <origin xyz="0.0 0.0 0.0" rpy="0.0 -0.0 0.0" />
      <mass value="0.08549919999999997" />
      <inertia ixx="1.0" ixy="0.0" ixz="0.0" iyy="1.0" iyz="0.0" izz="1.0" />
    </inertial>
    <visual name="lower_right_cabinet_1.039_0.692_0.999_2_back">
      <geometry>
        <box size="0.692 0.02 1.019" />
      </geometry>
      <origin xyz="0.0 0.4895 0.5095" rpy="0.0 -0.0 0.0" />
      <material name="lower_right_cabinet_1.039_0.692_0.999_2_back_main_color">
        <color rgba="0.4 0.4 0.4 1.0" />
      </material>
    </visual>
    <visual name="lower_right_cabinet_1.039_0.692_0.999_2_left">
      <geometry>
        <box size="0.02 0.959 1.019" />
      </geometry>
      <origin xyz="-0.33599999999999997 0.0 0.5095" rpy="0.0 -0.0 0.0" />
      <material name="lower_right_cabinet_1.039_0.692_0.999_2_left_main_color">
        <color rgba="0.4 0.4 0.4 1.0" />
      </material>
    </visual>
    <visual name="lower_right_cabinet_1.039_0.692_0.999_2_right">
      <geometry>
        <box size="0.02 0.959 1.019" />
      </geometry>
      <origin xyz="0.33599999999999997 0.0 0.5095" rpy="0.0 -0.0 0.0" />
      <material name="lower_right_cabinet_1.039_0.692_0.999_2_right_main_color">
        <color rgba="0.4 0.4 0.4 1.0" />
      </material>
    </visual>
    <visual name="lower_right_cabinet_1.039_0.692_0.999_2_shelf_0_0_0">
      <geometry>
        <box size="0.6519999999999999 0.959 0.01" />
      </geometry>
      <origin xyz="0.0 0.0 0.5195" rpy="0.0 -0.0 0.0" />
      <material name="lower_right_cabinet_1.039_0.692_0.999_2_shelf_0_0_0_main_color">
        <color rgba="0.4 0.4 0.4 1.0" />
      </material>
    </visual>
    <visual name="lower_right_cabinet_1.039_0.692_0.999_2_surface_0_0">
      <geometry>
        <box size="0.6519999999999999 0.959 0.02" />
      </geometry>
      <origin xyz="0.0 0.0 0.010000000000000018" rpy="0.0 -0.0 0.0" />
      <material name="lower_right_cabinet_1.039_0.692_0.999_2_surface_0_0_main_color">
        <color rgba="0.4 0.4 0.4 1.0" />
      </material>
    </visual>
    <visual name="lower_right_cabinet_1.039_0.692_0.999_2_top">
      <geometry>
        <box size="0.692 0.979 0.02" />
      </geometry>
      <origin xyz="0.0 0.01 1.029" rpy="0.0 -0.0 0.0" />
      <material name="lower_right_cabinet_1.039_0.692_0.999_2_top_main_color">
        <color rgba="0.4 0.4 0.4 1.0" />
      </material>
    </visual>
    <collision name="lower_right_cabinet_1.039_0.692_0.999_2_back">
      <geometry>
        <box size="0.692 0.02 1.019" />
      </geometry>
      <origin xyz="0.0 0.4895 0.5095" rpy="0.0 -0.0 0.0" />
    </collision>
    <collision name="lower_right_cabinet_1.039_0.692_0.999_2_left">
      <geometry>
        <box size="0.02 0.959 1.019" />
      </geometry>
      <origin xyz="-0.33599999999999997 0.0 0.5095" rpy="0.0 -0.0 0.0" />
    </collision>
    <collision name="lower_right_cabinet_1.039_0.692_0.999_2_right">
      <geometry>
        <box size="0.02 0.959 1.019" />
      </geometry>
      <origin xyz="0.33599999999999997 0.0 0.5095" rpy="0.0 -0.0 0.0" />
    </collision>
    <collision name="lower_right_cabinet_1.039_0.692_0.999_2_shelf_0_0_0">
      <geometry>
        <box size="0.6519999999999999 0.959 0.01" />
      </geometry>
      <origin xyz="0.0 0.0 0.5195" rpy="0.0 -0.0 0.0" />
    </collision>
    <collision name="lower_right_cabinet_1.039_0.692_0.999_2_surface_0_0">
      <geometry>
        <box size="0.6519999999999999 0.959 0.02" />
      </geometry>
      <origin xyz="0.0 0.0 0.010000000000000018" rpy="0.0 -0.0 0.0" />
    </collision>
    <collision name="lower_right_cabinet_1.039_0.692_0.999_2_top">
      <geometry>
        <box size="0.692 0.979 0.02" />
      </geometry>
      <origin xyz="0.0 0.01 1.029" rpy="0.0 -0.0 0.0" />
    </collision>
  </link>
  <link name="lower_right_cabinet_1.039_0.692_0.999_2_door_0_0">
    <inertial>
      <origin xyz="0.0 0.0 0.0" rpy="0.0 -0.0 0.0" />
      <mass value="0.09999999999999999" />
      <inertia ixx="1.0" ixy="0.0" ixz="0.0" iyy="1.0" iyz="0.0" izz="1.0" />
    </inertial>
    <visual><geometry><mesh filename="second_floor_kitchen_pipleine/lower_right_cabinet_1.039_0.692_0.999_2.obj" /></geometry><material name="lower_right_cabinet_1.039_0.692_0.999_2_door_0_0_material"><color rgba="0.8 0.8 0.8 1.0" /></material></visual><collision><geometry><box size="0.688000 0.168200 1.035000" /></geometry><origin xyz="0.344000 -0.026000 0.000000" rpy="0 0 0" /></collision></link>
  <link name="lower_left_cabinet_1.29_0.692_0.4995_2_corpus">
    <inertial>
      <origin xyz="0.0 0.0 0.0" rpy="0.0 -0.0 0.0" />
      <mass value="0.08549919999999997" />
      <inertia ixx="1.0" ixy="0.0" ixz="0.0" iyy="1.0" iyz="0.0" izz="1.0" />
    </inertial>
    <visual name="lower_left_cabinet_1.29_0.692_0.4995_2_back">
      <geometry>
        <box size="0.692 0.02 1.019" />
      </geometry>
      <origin xyz="0.0 0.4895 0.5095" rpy="0.0 -0.0 0.0" />
      <material name="lower_left_cabinet_1.29_0.692_0.4995_2_back_main_color">
        <color rgba="0.4 0.4 0.4 1.0" />
      </material>
    </visual>
    <visual name="lower_left_cabinet_1.29_0.692_0.4995_2_left">
      <geometry>
        <box size="0.02 0.959 1.019" />
      </geometry>
      <origin xyz="-0.33599999999999997 0.0 0.5095" rpy="0.0 -0.0 0.0" />
      <material name="lower_left_cabinet_1.29_0.692_0.4995_2_left_main_color">
        <color rgba="0.4 0.4 0.4 1.0" />
      </material>
    </visual>
    <visual name="lower_left_cabinet_1.29_0.692_0.4995_2_right">
      <geometry>
        <box size="0.02 0.959 1.019" />
      </geometry>
      <origin xyz="0.33599999999999997 0.0 0.5095" rpy="0.0 -0.0 0.0" />
      <material name="lower_left_cabinet_1.29_0.692_0.4995_2_right_main_color">
        <color rgba="0.4 0.4 0.4 1.0" />
      </material>
    </visual>
    <visual name="lower_left_cabinet_1.29_0.692_0.4995_2_shelf_0_0_0">
      <geometry>
        <box size="0.6519999999999999 0.959 0.01" />
      </geometry>
      <origin xyz="0.0 0.0 0.5195" rpy="0.0 -0.0 0.0" />
      <material name="lower_left_cabinet_1.29_0.692_0.4995_2_shelf_0_0_0_main_color">
        <color rgba="0.4 0.4 0.4 1.0" />
      </material>
    </visual>
    <visual name="lower_left_cabinet_1.29_0.692_0.4995_2_surface_0_0">
      <geometry>
        <box size="0.6519999999999999 0.959 0.02" />
      </geometry>
      <origin xyz="0.0 0.0 0.010000000000000018" rpy="0.0 -0.0 0.0" />
      <material name="lower_left_cabinet_1.29_0.692_0.4995_2_surface_0_0_main_color">
        <color rgba="0.4 0.4 0.4 1.0" />
      </material>
    </visual>
    <visual name="lower_left_cabinet_1.29_0.692_0.4995_2_top">
      <geometry>
        <box size="0.692 0.979 0.02" />
      </geometry>
      <origin xyz="0.0 0.01 1.029" rpy="0.0 -0.0 0.0" />
      <material name="lower_left_cabinet_1.29_0.692_0.4995_2_top_main_color">
        <color rgba="0.4 0.4 0.4 1.0" />
      </material>
    </visual>
    <collision name="lower_left_cabinet_1.29_0.692_0.4995_2_back">
      <geometry>
        <box size="0.692 0.02 1.019" />
      </geometry>
      <origin xyz="0.0 0.4895 0.5095" rpy="0.0 -0.0 0.0" />
    </collision>
    <collision name="lower_left_cabinet_1.29_0.692_0.4995_2_left">
      <geometry>
        <box size="0.02 0.959 1.019" />
      </geometry>
      <origin xyz="-0.33599999999999997 0.0 0.5095" rpy="0.0 -0.0 0.0" />
    </collision>
    <collision name="lower_left_cabinet_1.29_0.692_0.4995_2_right">
      <geometry>
        <box size="0.02 0.959 1.019" />
      </geometry>
      <origin xyz="0.33599999999999997 0.0 0.5095" rpy="0.0 -0.0 0.0" />
    </collision>
    <collision name="lower_left_cabinet_1.29_0.692_0.4995_2_shelf_0_0_0">
      <geometry>
        <box size="0.6519999999999999 0.959 0.01" />
      </geometry>
      <origin xyz="0.0 0.0 0.5195" rpy="0.0 -0.0 0.0" />
    </collision>
    <collision name="lower_left_cabinet_1.29_0.692_0.4995_2_surface_0_0">
      <geometry>
        <box size="0.6519999999999999 0.959 0.02" />
      </geometry>
      <origin xyz="0.0 0.0 0.010000000000000018" rpy="0.0 -0.0 0.0" />
    </collision>
    <collision name="lower_left_cabinet_1.29_0.692_0.4995_2_top">
      <geometry>
        <box size="0.692 0.979 0.02" />
      </geometry>
      <origin xyz="0.0 0.01 1.029" rpy="0.0 -0.0 0.0" />
    </collision>
  </link>
  <link name="lower_left_cabinet_1.29_0.692_0.4995_2_door_0_0">
    <inertial>
      <origin xyz="0.0 0.0 0.0" rpy="0.0 -0.0 0.0" />
      <mass value="0.09999999999999999" />
      <inertia ixx="1.0" ixy="0.0" ixz="0.0" iyy="1.0" iyz="0.0" izz="1.0" />
    </inertial>
    <visual><geometry><mesh filename="second_floor_kitchen_pipleine/lower_left_cabinet_1.29_0.692_0.4995_2.obj" /></geometry><material name="lower_left_cabinet_1.29_0.692_0.4995_2_door_0_0_material"><color rgba="0.8 0.8 0.8 1.0" /></material></visual><collision><geometry><box size="0.688000 0.168200 1.035000" /></geometry><origin xyz="-0.344000 -0.026000 0.000000" rpy="0 0 0" /></collision></link>
  <link name="lower_right_cabinet_1.039_0.692_0.999_3_corpus">
    <inertial>
      <origin xyz="0.0 0.0 0.0" rpy="0.0 -0.0 0.0" />
      <mass value="0.08549919999999997" />
      <inertia ixx="1.0" ixy="0.0" ixz="0.0" iyy="1.0" iyz="0.0" izz="1.0" />
    </inertial>
    <visual name="lower_right_cabinet_1.039_0.692_0.999_3_back">
      <geometry>
        <box size="0.692 0.02 1.019" />
      </geometry>
      <origin xyz="0.0 0.4895 0.5095" rpy="0.0 -0.0 0.0" />
      <material name="lower_right_cabinet_1.039_0.692_0.999_3_back_main_color">
        <color rgba="0.4 0.4 0.4 1.0" />
      </material>
    </visual>
    <visual name="lower_right_cabinet_1.039_0.692_0.999_3_left">
      <geometry>
        <box size="0.02 0.959 1.019" />
      </geometry>
      <origin xyz="-0.33599999999999997 0.0 0.5095" rpy="0.0 -0.0 0.0" />
      <material name="lower_right_cabinet_1.039_0.692_0.999_3_left_main_color">
        <color rgba="0.4 0.4 0.4 1.0" />
      </material>
    </visual>
    <visual name="lower_right_cabinet_1.039_0.692_0.999_3_right">
      <geometry>
        <box size="0.02 0.959 1.019" />
      </geometry>
      <origin xyz="0.33599999999999997 0.0 0.5095" rpy="0.0 -0.0 0.0" />
      <material name="lower_right_cabinet_1.039_0.692_0.999_3_right_main_color">
        <color rgba="0.4 0.4 0.4 1.0" />
      </material>
    </visual>
    <visual name="lower_right_cabinet_1.039_0.692_0.999_3_shelf_0_0_0">
      <geometry>
        <box size="0.6519999999999999 0.959 0.01" />
      </geometry>
      <origin xyz="0.0 0.0 0.5195" rpy="0.0 -0.0 0.0" />
      <material name="lower_right_cabinet_1.039_0.692_0.999_3_shelf_0_0_0_main_color">
        <color rgba="0.4 0.4 0.4 1.0" />
      </material>
    </visual>
    <visual name="lower_right_cabinet_1.039_0.692_0.999_3_surface_0_0">
      <geometry>
        <box size="0.6519999999999999 0.959 0.02" />
      </geometry>
      <origin xyz="0.0 0.0 0.010000000000000018" rpy="0.0 -0.0 0.0" />
      <material name="lower_right_cabinet_1.039_0.692_0.999_3_surface_0_0_main_color">
        <color rgba="0.4 0.4 0.4 1.0" />
      </material>
    </visual>
    <visual name="lower_right_cabinet_1.039_0.692_0.999_3_top">
      <geometry>
        <box size="0.692 0.979 0.02" />
      </geometry>
      <origin xyz="0.0 0.01 1.029" rpy="0.0 -0.0 0.0" />
      <material name="lower_right_cabinet_1.039_0.692_0.999_3_top_main_color">
        <color rgba="0.4 0.4 0.4 1.0" />
      </material>
    </visual>
    <collision name="lower_right_cabinet_1.039_0.692_0.999_3_back">
      <geometry>
        <box size="0.692 0.02 1.019" />
      </geometry>
      <origin xyz="0.0 0.4895 0.5095" rpy="0.0 -0.0 0.0" />
    </collision>
    <collision name="lower_right_cabinet_1.039_0.692_0.999_3_left">
      <geometry>
        <box size="0.02 0.959 1.019" />
      </geometry>
      <origin xyz="-0.33599999999999997 0.0 0.5095" rpy="0.0 -0.0 0.0" />
    </collision>
    <collision name="lower_right_cabinet_1.039_0.692_0.999_3_right">
      <geometry>
        <box size="0.02 0.959 1.019" />
      </geometry>
      <origin xyz="0.33599999999999997 0.0 0.5095" rpy="0.0 -0.0 0.0" />
    </collision>
    <collision name="lower_right_cabinet_1.039_0.692_0.999_3_shelf_0_0_0">
      <geometry>
        <box size="0.6519999999999999 0.959 0.01" />
      </geometry>
      <origin xyz="0.0 0.0 0.5195" rpy="0.0 -0.0 0.0" />
    </collision>
    <collision name="lower_right_cabinet_1.039_0.692_0.999_3_surface_0_0">
      <geometry>
        <box size="0.6519999999999999 0.959 0.02" />
      </geometry>
      <origin xyz="0.0 0.0 0.010000000000000018" rpy="0.0 -0.0 0.0" />
    </collision>
    <collision name="lower_right_cabinet_1.039_0.692_0.999_3_top">
      <geometry>
        <box size="0.692 0.979 0.02" />
      </geometry>
      <origin xyz="0.0 0.01 1.029" rpy="0.0 -0.0 0.0" />
    </collision>
  </link>
  <link name="lower_right_cabinet_1.039_0.692_0.999_3_door_0_0">
    <inertial>
      <origin xyz="0.0 0.0 0.0" rpy="0.0 -0.0 0.0" />
      <mass value="0.09999999999999999" />
      <inertia ixx="1.0" ixy="0.0" ixz="0.0" iyy="1.0" iyz="0.0" izz="1.0" />
    </inertial>
    <visual><geometry><mesh filename="second_floor_kitchen_pipleine/lower_right_cabinet_1.039_0.692_0.999_3.obj" /></geometry><material name="lower_right_cabinet_1.039_0.692_0.999_3_door_0_0_material"><color rgba="0.8 0.8 0.8 1.0" /></material></visual><collision><geometry><box size="0.688000 0.168200 1.035000" /></geometry><origin xyz="0.344000 -0.026000 0.000000" rpy="0 0 0" /></collision></link>
  <link name="lower_left_cabinet_1.29_0.692_0.4995_3_corpus">
    <inertial>
      <origin xyz="0.0 0.0 0.0" rpy="0.0 -0.0 0.0" />
      <mass value="0.08549919999999997" />
      <inertia ixx="1.0" ixy="0.0" ixz="0.0" iyy="1.0" iyz="0.0" izz="1.0" />
    </inertial>
    <visual name="lower_left_cabinet_1.29_0.692_0.4995_3_back">
      <geometry>
        <box size="0.692 0.02 1.019" />
      </geometry>
      <origin xyz="0.0 0.4895 0.5095" rpy="0.0 -0.0 0.0" />
      <material name="lower_left_cabinet_1.29_0.692_0.4995_3_back_main_color">
        <color rgba="0.4 0.4 0.4 1.0" />
      </material>
    </visual>
    <visual name="lower_left_cabinet_1.29_0.692_0.4995_3_left">
      <geometry>
        <box size="0.02 0.959 1.019" />
      </geometry>
      <origin xyz="-0.33599999999999997 0.0 0.5095" rpy="0.0 -0.0 0.0" />
      <material name="lower_left_cabinet_1.29_0.692_0.4995_3_left_main_color">
        <color rgba="0.4 0.4 0.4 1.0" />
      </material>
    </visual>
    <visual name="lower_left_cabinet_1.29_0.692_0.4995_3_right">
      <geometry>
        <box size="0.02 0.959 1.019" />
      </geometry>
      <origin xyz="0.33599999999999997 0.0 0.5095" rpy="0.0 -0.0 0.0" />
      <material name="lower_left_cabinet_1.29_0.692_0.4995_3_right_main_color">
        <color rgba="0.4 0.4 0.4 1.0" />
      </material>
    </visual>
    <visual name="lower_left_cabinet_1.29_0.692_0.4995_3_shelf_0_0_0">
      <geometry>
        <box size="0.6519999999999999 0.959 0.01" />
      </geometry>
      <origin xyz="0.0 0.0 0.5195" rpy="0.0 -0.0 0.0" />
      <material name="lower_left_cabinet_1.29_0.692_0.4995_3_shelf_0_0_0_main_color">
        <color rgba="0.4 0.4 0.4 1.0" />
      </material>
    </visual>
    <visual name="lower_left_cabinet_1.29_0.692_0.4995_3_surface_0_0">
      <geometry>
        <box size="0.6519999999999999 0.959 0.02" />
      </geometry>
      <origin xyz="0.0 0.0 0.010000000000000018" rpy="0.0 -0.0 0.0" />
      <material name="lower_left_cabinet_1.29_0.692_0.4995_3_surface_0_0_main_color">
        <color rgba="0.4 0.4 0.4 1.0" />
      </material>
    </visual>
    <visual name="lower_left_cabinet_1.29_0.692_0.4995_3_top">
      <geometry>
        <box size="0.692 0.979 0.02" />
      </geometry>
      <origin xyz="0.0 0.01 1.029" rpy="0.0 -0.0 0.0" />
      <material name="lower_left_cabinet_1.29_0.692_0.4995_3_top_main_color">
        <color rgba="0.4 0.4 0.4 1.0" />
      </material>
    </visual>
    <collision name="lower_left_cabinet_1.29_0.692_0.4995_3_back">
      <geometry>
        <box size="0.692 0.02 1.019" />
      </geometry>
      <origin xyz="0.0 0.4895 0.5095" rpy="0.0 -0.0 0.0" />
    </collision>
    <collision name="lower_left_cabinet_1.29_0.692_0.4995_3_left">
      <geometry>
        <box size="0.02 0.959 1.019" />
      </geometry>
      <origin xyz="-0.33599999999999997 0.0 0.5095" rpy="0.0 -0.0 0.0" />
    </collision>
    <collision name="lower_left_cabinet_1.29_0.692_0.4995_3_right">
      <geometry>
        <box size="0.02 0.959 1.019" />
      </geometry>
      <origin xyz="0.33599999999999997 0.0 0.5095" rpy="0.0 -0.0 0.0" />
    </collision>
    <collision name="lower_left_cabinet_1.29_0.692_0.4995_3_shelf_0_0_0">
      <geometry>
        <box size="0.6519999999999999 0.959 0.01" />
      </geometry>
      <origin xyz="0.0 0.0 0.5195" rpy="0.0 -0.0 0.0" />
    </collision>
    <collision name="lower_left_cabinet_1.29_0.692_0.4995_3_surface_0_0">
      <geometry>
        <box size="0.6519999999999999 0.959 0.02" />
      </geometry>
      <origin xyz="0.0 0.0 0.010000000000000018" rpy="0.0 -0.0 0.0" />
    </collision>
    <collision name="lower_left_cabinet_1.29_0.692_0.4995_3_top">
      <geometry>
        <box size="0.692 0.979 0.02" />
      </geometry>
      <origin xyz="0.0 0.01 1.029" rpy="0.0 -0.0 0.0" />
    </collision>
  </link>
  <link name="lower_left_cabinet_1.29_0.692_0.4995_3_door_0_0">
    <inertial>
      <origin xyz="0.0 0.0 0.0" rpy="0.0 -0.0 0.0" />
      <mass value="0.09999999999999999" />
      <inertia ixx="1.0" ixy="0.0" ixz="0.0" iyy="1.0" iyz="0.0" izz="1.0" />
    </inertial>
    <visual><geometry><mesh filename="second_floor_kitchen_pipleine/lower_left_cabinet_1.29_0.692_0.4995_3.obj" /></geometry><material name="lower_left_cabinet_1.29_0.692_0.4995_3_door_0_0_material"><color rgba="0.8 0.8 0.8 1.0" /></material></visual><collision><geometry><box size="0.688000 0.168200 1.035000" /></geometry><origin xyz="-0.344000 -0.026000 0.000000" rpy="0 0 0" /></collision></link>
  <link name="lower_right_cabinet_1.039_0.692_0.999_4_corpus">
    <inertial>
      <origin xyz="0.0 0.0 0.0" rpy="0.0 -0.0 0.0" />
      <mass value="0.08549919999999997" />
      <inertia ixx="1.0" ixy="0.0" ixz="0.0" iyy="1.0" iyz="0.0" izz="1.0" />
    </inertial>
    <visual name="lower_right_cabinet_1.039_0.692_0.999_4_back">
      <geometry>
        <box size="0.692 0.02 1.019" />
      </geometry>
      <origin xyz="0.0 0.4895 0.5095" rpy="0.0 -0.0 0.0" />
      <material name="lower_right_cabinet_1.039_0.692_0.999_4_back_main_color">
        <color rgba="0.4 0.4 0.4 1.0" />
      </material>
    </visual>
    <visual name="lower_right_cabinet_1.039_0.692_0.999_4_left">
      <geometry>
        <box size="0.02 0.959 1.019" />
      </geometry>
      <origin xyz="-0.33599999999999997 0.0 0.5095" rpy="0.0 -0.0 0.0" />
      <material name="lower_right_cabinet_1.039_0.692_0.999_4_left_main_color">
        <color rgba="0.4 0.4 0.4 1.0" />
      </material>
    </visual>
    <visual name="lower_right_cabinet_1.039_0.692_0.999_4_right">
      <geometry>
        <box size="0.02 0.959 1.019" />
      </geometry>
      <origin xyz="0.33599999999999997 0.0 0.5095" rpy="0.0 -0.0 0.0" />
      <material name="lower_right_cabinet_1.039_0.692_0.999_4_right_main_color">
        <color rgba="0.4 0.4 0.4 1.0" />
      </material>
    </visual>
    <visual name="lower_right_cabinet_1.039_0.692_0.999_4_shelf_0_0_0">
      <geometry>
        <box size="0.6519999999999999 0.959 0.01" />
      </geometry>
      <origin xyz="0.0 0.0 0.5195" rpy="0.0 -0.0 0.0" />
      <material name="lower_right_cabinet_1.039_0.692_0.999_4_shelf_0_0_0_main_color">
        <color rgba="0.4 0.4 0.4 1.0" />
      </material>
    </visual>
    <visual name="lower_right_cabinet_1.039_0.692_0.999_4_surface_0_0">
      <geometry>
        <box size="0.6519999999999999 0.959 0.02" />
      </geometry>
      <origin xyz="0.0 0.0 0.010000000000000018" rpy="0.0 -0.0 0.0" />
      <material name="lower_right_cabinet_1.039_0.692_0.999_4_surface_0_0_main_color">
        <color rgba="0.4 0.4 0.4 1.0" />
      </material>
    </visual>
    <visual name="lower_right_cabinet_1.039_0.692_0.999_4_top">
      <geometry>
        <box size="0.692 0.979 0.02" />
      </geometry>
      <origin xyz="0.0 0.01 1.029" rpy="0.0 -0.0 0.0" />
      <material name="lower_right_cabinet_1.039_0.692_0.999_4_top_main_color">
        <color rgba="0.4 0.4 0.4 1.0" />
      </material>
    </visual>
    <collision name="lower_right_cabinet_1.039_0.692_0.999_4_back">
      <geometry>
        <box size="0.692 0.02 1.019" />
      </geometry>
      <origin xyz="0.0 0.4895 0.5095" rpy="0.0 -0.0 0.0" />
    </collision>
    <collision name="lower_right_cabinet_1.039_0.692_0.999_4_left">
      <geometry>
        <box size="0.02 0.959 1.019" />
      </geometry>
      <origin xyz="-0.33599999999999997 0.0 0.5095" rpy="0.0 -0.0 0.0" />
    </collision>
    <collision name="lower_right_cabinet_1.039_0.692_0.999_4_right">
      <geometry>
        <box size="0.02 0.959 1.019" />
      </geometry>
      <origin xyz="0.33599999999999997 0.0 0.5095" rpy="0.0 -0.0 0.0" />
    </collision>
    <collision name="lower_right_cabinet_1.039_0.692_0.999_4_shelf_0_0_0">
      <geometry>
        <box size="0.6519999999999999 0.959 0.01" />
      </geometry>
      <origin xyz="0.0 0.0 0.5195" rpy="0.0 -0.0 0.0" />
    </collision>
    <collision name="lower_right_cabinet_1.039_0.692_0.999_4_surface_0_0">
      <geometry>
        <box size="0.6519999999999999 0.959 0.02" />
      </geometry>
      <origin xyz="0.0 0.0 0.010000000000000018" rpy="0.0 -0.0 0.0" />
    </collision>
    <collision name="lower_right_cabinet_1.039_0.692_0.999_4_top">
      <geometry>
        <box size="0.692 0.979 0.02" />
      </geometry>
      <origin xyz="0.0 0.01 1.029" rpy="0.0 -0.0 0.0" />
    </collision>
  </link>
  <link name="lower_right_cabinet_1.039_0.692_0.999_4_door_0_0">
    <inertial>
      <origin xyz="0.0 0.0 0.0" rpy="0.0 -0.0 0.0" />
      <mass value="0.09999999999999999" />
      <inertia ixx="1.0" ixy="0.0" ixz="0.0" iyy="1.0" iyz="0.0" izz="1.0" />
    </inertial>
    <visual><geometry><mesh filename="second_floor_kitchen_pipleine/lower_right_cabinet_1.039_0.692_0.999_4.obj" /></geometry><material name="lower_right_cabinet_1.039_0.692_0.999_4_door_0_0_material"><color rgba="0.8 0.8 0.8 1.0" /></material></visual><collision><geometry><box size="0.688000 0.168200 1.035000" /></geometry><origin xyz="0.344000 -0.026000 0.000000" rpy="0 0 0" /></collision></link>
  <link name="lower_left_cabinet_1.29_0.692_0.4995_4_corpus">
    <inertial>
      <origin xyz="0.0 0.0 0.0" rpy="0.0 -0.0 0.0" />
      <mass value="0.08549919999999997" />
      <inertia ixx="1.0" ixy="0.0" ixz="0.0" iyy="1.0" iyz="0.0" izz="1.0" />
    </inertial>
    <visual name="lower_left_cabinet_1.29_0.692_0.4995_4_back">
      <geometry>
        <box size="0.692 0.02 1.019" />
      </geometry>
      <origin xyz="0.0 0.4895 0.5095" rpy="0.0 -0.0 0.0" />
      <material name="lower_left_cabinet_1.29_0.692_0.4995_4_back_main_color">
        <color rgba="0.4 0.4 0.4 1.0" />
      </material>
    </visual>
    <visual name="lower_left_cabinet_1.29_0.692_0.4995_4_left">
      <geometry>
        <box size="0.02 0.959 1.019" />
      </geometry>
      <origin xyz="-0.33599999999999997 0.0 0.5095" rpy="0.0 -0.0 0.0" />
      <material name="lower_left_cabinet_1.29_0.692_0.4995_4_left_main_color">
        <color rgba="0.4 0.4 0.4 1.0" />
      </material>
    </visual>
    <visual name="lower_left_cabinet_1.29_0.692_0.4995_4_right">
      <geometry>
        <box size="0.02 0.959 1.019" />
      </geometry>
      <origin xyz="0.33599999999999997 0.0 0.5095" rpy="0.0 -0.0 0.0" />
      <material name="lower_left_cabinet_1.29_0.692_0.4995_4_right_main_color">
        <color rgba="0.4 0.4 0.4 1.0" />
      </material>
    </visual>
    <visual name="lower_left_cabinet_1.29_0.692_0.4995_4_shelf_0_0_0">
      <geometry>
        <box size="0.6519999999999999 0.959 0.01" />
      </geometry>
      <origin xyz="0.0 0.0 0.5195" rpy="0.0 -0.0 0.0" />
      <material name="lower_left_cabinet_1.29_0.692_0.4995_4_shelf_0_0_0_main_color">
        <color rgba="0.4 0.4 0.4 1.0" />
      </material>
    </visual>
    <visual name="lower_left_cabinet_1.29_0.692_0.4995_4_surface_0_0">
      <geometry>
        <box size="0.6519999999999999 0.959 0.02" />
      </geometry>
      <origin xyz="0.0 0.0 0.010000000000000018" rpy="0.0 -0.0 0.0" />
      <material name="lower_left_cabinet_1.29_0.692_0.4995_4_surface_0_0_main_color">
        <color rgba="0.4 0.4 0.4 1.0" />
      </material>
    </visual>
    <visual name="lower_left_cabinet_1.29_0.692_0.4995_4_top">
      <geometry>
        <box size="0.692 0.979 0.02" />
      </geometry>
      <origin xyz="0.0 0.01 1.029" rpy="0.0 -0.0 0.0" />
      <material name="lower_left_cabinet_1.29_0.692_0.4995_4_top_main_color">
        <color rgba="0.4 0.4 0.4 1.0" />
      </material>
    </visual>
    <collision name="lower_left_cabinet_1.29_0.692_0.4995_4_back">
      <geometry>
        <box size="0.692 0.02 1.019" />
      </geometry>
      <origin xyz="0.0 0.4895 0.5095" rpy="0.0 -0.0 0.0" />
    </collision>
    <collision name="lower_left_cabinet_1.29_0.692_0.4995_4_left">
      <geometry>
        <box size="0.02 0.959 1.019" />
      </geometry>
      <origin xyz="-0.33599999999999997 0.0 0.5095" rpy="0.0 -0.0 0.0" />
    </collision>
    <collision name="lower_left_cabinet_1.29_0.692_0.4995_4_right">
      <geometry>
        <box size="0.02 0.959 1.019" />
      </geometry>
      <origin xyz="0.33599999999999997 0.0 0.5095" rpy="0.0 -0.0 0.0" />
    </collision>
    <collision name="lower_left_cabinet_1.29_0.692_0.4995_4_shelf_0_0_0">
      <geometry>
        <box size="0.6519999999999999 0.959 0.01" />
      </geometry>
      <origin xyz="0.0 0.0 0.5195" rpy="0.0 -0.0 0.0" />
    </collision>
    <collision name="lower_left_cabinet_1.29_0.692_0.4995_4_surface_0_0">
      <geometry>
        <box size="0.6519999999999999 0.959 0.02" />
      </geometry>
      <origin xyz="0.0 0.0 0.010000000000000018" rpy="0.0 -0.0 0.0" />
    </collision>
    <collision name="lower_left_cabinet_1.29_0.692_0.4995_4_top">
      <geometry>
        <box size="0.692 0.979 0.02" />
      </geometry>
      <origin xyz="0.0 0.01 1.029" rpy="0.0 -0.0 0.0" />
    </collision>
  </link>
  <link name="lower_left_cabinet_1.29_0.692_0.4995_4_door_0_0">
    <inertial>
      <origin xyz="0.0 0.0 0.0" rpy="0.0 -0.0 0.0" />
      <mass value="0.09999999999999999" />
      <inertia ixx="1.0" ixy="0.0" ixz="0.0" iyy="1.0" iyz="0.0" izz="1.0" />
    </inertial>
    <visual><geometry><mesh filename="second_floor_kitchen_pipleine/lower_left_cabinet_1.29_0.692_0.4995_4.obj" /></geometry><material name="lower_left_cabinet_1.29_0.692_0.4995_4_door_0_0_material"><color rgba="0.8 0.8 0.8 1.0" /></material></visual><collision><geometry><box size="0.688000 0.168200 1.035000" /></geometry><origin xyz="-0.344000 -0.026000 0.000000" rpy="0 0 0" /></collision></link>
  <link name="lower_left_cabinet_1.29_0.692_0.4995_6_corpus">
    <inertial>
      <origin xyz="0.0 0.0 0.0" rpy="0.0 -0.0 0.0" />
      <mass value="0.08549919999999997" />
      <inertia ixx="1.0" ixy="0.0" ixz="0.0" iyy="1.0" iyz="0.0" izz="1.0" />
    </inertial>
    <visual name="lower_left_cabinet_1.29_0.692_0.4995_6_back">
      <geometry>
        <box size="0.692 0.02 1.019" />
      </geometry>
      <origin xyz="0.0 0.4895 0.5095" rpy="0.0 -0.0 0.0" />
      <material name="lower_left_cabinet_1.29_0.692_0.4995_6_back_main_color">
        <color rgba="0.4 0.4 0.4 1.0" />
      </material>
    </visual>
    <visual name="lower_left_cabinet_1.29_0.692_0.4995_6_left">
      <geometry>
        <box size="0.02 0.959 1.019" />
      </geometry>
      <origin xyz="-0.33599999999999997 0.0 0.5095" rpy="0.0 -0.0 0.0" />
      <material name="lower_left_cabinet_1.29_0.692_0.4995_6_left_main_color">
        <color rgba="0.4 0.4 0.4 1.0" />
      </material>
    </visual>
    <visual name="lower_left_cabinet_1.29_0.692_0.4995_6_right">
      <geometry>
        <box size="0.02 0.959 1.019" />
      </geometry>
      <origin xyz="0.33599999999999997 0.0 0.5095" rpy="0.0 -0.0 0.0" />
      <material name="lower_left_cabinet_1.29_0.692_0.4995_6_right_main_color">
        <color rgba="0.4 0.4 0.4 1.0" />
      </material>
    </visual>
    <visual name="lower_left_cabinet_1.29_0.692_0.4995_6_shelf_0_0_0">
      <geometry>
        <box size="0.6519999999999999 0.959 0.01" />
      </geometry>
      <origin xyz="0.0 0.0 0.5195" rpy="0.0 -0.0 0.0" />
      <material name="lower_left_cabinet_1.29_0.692_0.4995_6_shelf_0_0_0_main_color">
        <color rgba="0.4 0.4 0.4 1.0" />
      </material>
    </visual>
    <visual name="lower_left_cabinet_1.29_0.692_0.4995_6_surface_0_0">
      <geometry>
        <box size="0.6519999999999999 0.959 0.02" />
      </geometry>
      <origin xyz="0.0 0.0 0.010000000000000018" rpy="0.0 -0.0 0.0" />
      <material name="lower_left_cabinet_1.29_0.692_0.4995_6_surface_0_0_main_color">
        <color rgba="0.4 0.4 0.4 1.0" />
      </material>
    </visual>
    <visual name="lower_left_cabinet_1.29_0.692_0.4995_6_top">
      <geometry>
        <box size="0.692 0.979 0.02" />
      </geometry>
      <origin xyz="0.0 0.01 1.029" rpy="0.0 -0.0 0.0" />
      <material name="lower_left_cabinet_1.29_0.692_0.4995_6_top_main_color">
        <color rgba="0.4 0.4 0.4 1.0" />
      </material>
    </visual>
    <collision name="lower_left_cabinet_1.29_0.692_0.4995_6_back">
      <geometry>
        <box size="0.692 0.02 1.019" />
      </geometry>
      <origin xyz="0.0 0.4895 0.5095" rpy="0.0 -0.0 0.0" />
    </collision>
    <collision name="lower_left_cabinet_1.29_0.692_0.4995_6_left">
      <geometry>
        <box size="0.02 0.959 1.019" />
      </geometry>
      <origin xyz="-0.33599999999999997 0.0 0.5095" rpy="0.0 -0.0 0.0" />
    </collision>
    <collision name="lower_left_cabinet_1.29_0.692_0.4995_6_right">
      <geometry>
        <box size="0.02 0.959 1.019" />
      </geometry>
      <origin xyz="0.33599999999999997 0.0 0.5095" rpy="0.0 -0.0 0.0" />
    </collision>
    <collision name="lower_left_cabinet_1.29_0.692_0.4995_6_shelf_0_0_0">
      <geometry>
        <box size="0.6519999999999999 0.959 0.01" />
      </geometry>
      <origin xyz="0.0 0.0 0.5195" rpy="0.0 -0.0 0.0" />
    </collision>
    <collision name="lower_left_cabinet_1.29_0.692_0.4995_6_surface_0_0">
      <geometry>
        <box size="0.6519999999999999 0.959 0.02" />
      </geometry>
      <origin xyz="0.0 0.0 0.010000000000000018" rpy="0.0 -0.0 0.0" />
    </collision>
    <collision name="lower_left_cabinet_1.29_0.692_0.4995_6_top">
      <geometry>
        <box size="0.692 0.979 0.02" />
      </geometry>
      <origin xyz="0.0 0.01 1.029" rpy="0.0 -0.0 0.0" />
    </collision>
  </link>
  <link name="lower_left_cabinet_1.29_0.692_0.4995_6_door_0_0">
    <inertial>
      <origin xyz="0.0 0.0 0.0" rpy="0.0 -0.0 0.0" />
      <mass value="0.09999999999999999" />
      <inertia ixx="1.0" ixy="0.0" ixz="0.0" iyy="1.0" iyz="0.0" izz="1.0" />
    </inertial>
    <visual><geometry><mesh filename="second_floor_kitchen_pipleine/lower_left_cabinet_1.29_0.692_0.4995_6.obj" /></geometry><material name="lower_left_cabinet_1.29_0.692_0.4995_6_door_0_0_material"><color rgba="0.8 0.8 0.8 1.0" /></material></visual><collision><geometry><box size="0.688000 0.168200 1.035000" /></geometry><origin xyz="-0.344000 -0.026000 0.000000" rpy="0 0 0" /></collision></link>
  <link name="box">
    <inertial>
      <origin xyz="0.0 0.0 0.0" rpy="0.0 -0.0 0.0" />
      <mass value="1.2230502255" />
      <inertia ixx="1.0" ixy="0.0" ixz="0.0" iyy="1.0" iyz="0.0" izz="1.0" />
    </inertial>
    <visual name="box_geometry_0">
      <geometry>
        <box size="0.94905 0.999 1.29" />
      </geometry>
      <origin xyz="0.0 0.0 0.0" rpy="0.0 -0.0 0.0" />
      <material name="box_geometry_0_main_color">
        <color rgba="0.4 0.4 0.4 1.0" />
      </material>
    </visual>
    <collision name="box_geometry_0">
      <geometry>
        <box size="0.94905 0.999 1.29" />
      </geometry>
      <origin xyz="0.0 0.0 0.0" rpy="0.0 -0.0 0.0" />
    </collision>
  </link>
  <link name="upper_right_cabinet_1.29_0.692_0.4995_0_corpus">
    <inertial>
      <origin xyz="0.0 0.0 0.0" rpy="0.0 -0.0 0.0" />
      <mass value="0.03366005999999999" />
      <inertia ixx="1.0" ixy="0.0" ixz="0.0" iyy="1.0" iyz="0.0" izz="1.0" />
    </inertial>
    <visual name="upper_right_cabinet_1.29_0.692_0.4995_0_back">
      <geometry>
        <box size="0.692 0.01 1.28" />
      </geometry>
      <origin xyz="0.0 0.24475 0.64" rpy="0.0 -0.0 0.0" />
      <material name="upper_right_cabinet_1.29_0.692_0.4995_0_back_main_color">
        <color rgba="0.4 0.4 0.4 1.0" />
      </material>
    </visual>
    <visual name="upper_right_cabinet_1.29_0.692_0.4995_0_left">
      <geometry>
        <box size="0.01 0.4695 1.28" />
      </geometry>
      <origin xyz="-0.34099999999999997 0.005 0.64" rpy="0.0 -0.0 0.0" />
      <material name="upper_right_cabinet_1.29_0.692_0.4995_0_left_main_color">
        <color rgba="0.4 0.4 0.4 1.0" />
      </material>
    </visual>
    <visual name="upper_right_cabinet_1.29_0.692_0.4995_0_right">
      <geometry>
        <box size="0.01 0.4695 1.28" />
      </geometry>
      <origin xyz="0.34099999999999997 0.005 0.64" rpy="0.0 -0.0 0.0" />
      <material name="upper_right_cabinet_1.29_0.692_0.4995_0_right_main_color">
        <color rgba="0.4 0.4 0.4 1.0" />
      </material>
    </visual>
    <visual name="upper_right_cabinet_1.29_0.692_0.4995_0_shelf_0_0_0">
      <geometry>
        <box size="0.6719999999999999 0.4695 0.01" />
      </geometry>
      <origin xyz="0.0 0.005 0.8566666666666667" rpy="0.0 -0.0 0.0" />
      <material name="upper_right_cabinet_1.29_0.692_0.4995_0_shelf_0_0_0_main_color">
        <color rgba="0.4 0.4 0.4 1.0" />
      </material>
    </visual>
    <visual name="upper_right_cabinet_1.29_0.692_0.4995_0_shelf_0_0_1">
      <geometry>
        <box size="0.6719999999999999 0.4695 0.01" />
      </geometry>
      <origin xyz="0.0 0.005 0.43333333333333335" rpy="0.0 -0.0 0.0" />
      <material name="upper_right_cabinet_1.29_0.692_0.4995_0_shelf_0_0_1_main_color">
        <color rgba="0.4 0.4 0.4 1.0" />
      </material>
    </visual>
    <visual name="upper_right_cabinet_1.29_0.692_0.4995_0_surface_0_0">
      <geometry>
        <box size="0.6719999999999999 0.4695 0.01" />
      </geometry>
      <origin xyz="0.0 0.005 0.005000000000000009" rpy="0.0 -0.0 0.0" />
      <material name="upper_right_cabinet_1.29_0.692_0.4995_0_surface_0_0_main_color">
        <color rgba="0.4 0.4 0.4 1.0" />
      </material>
    </visual>
    <visual name="upper_right_cabinet_1.29_0.692_0.4995_0_top">
      <geometry>
        <box size="0.692 0.4795 0.01" />
      </geometry>
      <origin xyz="0.0 0.01 1.2850000000000001" rpy="0.0 -0.0 0.0" />
      <material name="upper_right_cabinet_1.29_0.692_0.4995_0_top_main_color">
        <color rgba="0.4 0.4 0.4 1.0" />
      </material>
    </visual>
    <collision name="upper_right_cabinet_1.29_0.692_0.4995_0_back">
      <geometry>
        <box size="0.692 0.01 1.28" />
      </geometry>
      <origin xyz="0.0 0.24475 0.64" rpy="0.0 -0.0 0.0" />
    </collision>
    <collision name="upper_right_cabinet_1.29_0.692_0.4995_0_left">
      <geometry>
        <box size="0.01 0.4695 1.28" />
      </geometry>
      <origin xyz="-0.34099999999999997 0.005 0.64" rpy="0.0 -0.0 0.0" />
    </collision>
    <collision name="upper_right_cabinet_1.29_0.692_0.4995_0_right">
      <geometry>
        <box size="0.01 0.4695 1.28" />
      </geometry>
      <origin xyz="0.34099999999999997 0.005 0.64" rpy="0.0 -0.0 0.0" />
    </collision>
    <collision name="upper_right_cabinet_1.29_0.692_0.4995_0_shelf_0_0_0">
      <geometry>
        <box size="0.6719999999999999 0.4695 0.01" />
      </geometry>
      <origin xyz="0.0 0.005 0.8566666666666667" rpy="0.0 -0.0 0.0" />
    </collision>
    <collision name="upper_right_cabinet_1.29_0.692_0.4995_0_shelf_0_0_1">
      <geometry>
        <box size="0.6719999999999999 0.4695 0.01" />
      </geometry>
      <origin xyz="0.0 0.005 0.43333333333333335" rpy="0.0 -0.0 0.0" />
    </collision>
    <collision name="upper_right_cabinet_1.29_0.692_0.4995_0_surface_0_0">
      <geometry>
        <box size="0.6719999999999999 0.4695 0.01" />
      </geometry>
      <origin xyz="0.0 0.005 0.005000000000000009" rpy="0.0 -0.0 0.0" />
    </collision>
    <collision name="upper_right_cabinet_1.29_0.692_0.4995_0_top">
      <geometry>
        <box size="0.692 0.4795 0.01" />
      </geometry>
      <origin xyz="0.0 0.01 1.2850000000000001" rpy="0.0 -0.0 0.0" />
    </collision>
  </link>
  <link name="upper_right_cabinet_1.29_0.692_0.4995_0_door_0_0">
    <inertial>
      <origin xyz="0.0 0.0 0.0" rpy="0.0 -0.0 0.0" />
      <mass value="0.09999999999999999" />
      <inertia ixx="1.0" ixy="0.0" ixz="0.0" iyy="1.0" iyz="0.0" izz="1.0" />
    </inertial>
    <visual><geometry><mesh filename="second_floor_kitchen_pipleine/upper_right_cabinet_1.29_0.692_0.4995_0.obj" /></geometry><material name="upper_right_cabinet_1.29_0.692_0.4995_0_door_0_0_material"><color rgba="0.8 0.8 0.8 1.0" /></material></visual><collision><geometry><box size="0.690000 0.168200 1.288000" /></geometry><origin xyz="0.345000 -0.026000 0.000000" rpy="0 0 0" /></collision></link>
  <link name="upper_right_cabinet_1.29_0.692_0.4995_1_corpus">
    <inertial>
      <origin xyz="0.0 0.0 0.0" rpy="0.0 -0.0 0.0" />
      <mass value="0.03366005999999999" />
      <inertia ixx="1.0" ixy="0.0" ixz="0.0" iyy="1.0" iyz="0.0" izz="1.0" />
    </inertial>
    <visual name="upper_right_cabinet_1.29_0.692_0.4995_1_back">
      <geometry>
        <box size="0.692 0.01 1.28" />
      </geometry>
      <origin xyz="0.0 0.24475 0.64" rpy="0.0 -0.0 0.0" />
      <material name="upper_right_cabinet_1.29_0.692_0.4995_1_back_main_color">
        <color rgba="0.4 0.4 0.4 1.0" />
      </material>
    </visual>
    <visual name="upper_right_cabinet_1.29_0.692_0.4995_1_left">
      <geometry>
        <box size="0.01 0.4695 1.28" />
      </geometry>
      <origin xyz="-0.34099999999999997 0.005 0.64" rpy="0.0 -0.0 0.0" />
      <material name="upper_right_cabinet_1.29_0.692_0.4995_1_left_main_color">
        <color rgba="0.4 0.4 0.4 1.0" />
      </material>
    </visual>
    <visual name="upper_right_cabinet_1.29_0.692_0.4995_1_right">
      <geometry>
        <box size="0.01 0.4695 1.28" />
      </geometry>
      <origin xyz="0.34099999999999997 0.005 0.64" rpy="0.0 -0.0 0.0" />
      <material name="upper_right_cabinet_1.29_0.692_0.4995_1_right_main_color">
        <color rgba="0.4 0.4 0.4 1.0" />
      </material>
    </visual>
    <visual name="upper_right_cabinet_1.29_0.692_0.4995_1_shelf_0_0_0">
      <geometry>
        <box size="0.6719999999999999 0.4695 0.01" />
      </geometry>
      <origin xyz="0.0 0.005 0.8566666666666667" rpy="0.0 -0.0 0.0" />
      <material name="upper_right_cabinet_1.29_0.692_0.4995_1_shelf_0_0_0_main_color">
        <color rgba="0.4 0.4 0.4 1.0" />
      </material>
    </visual>
    <visual name="upper_right_cabinet_1.29_0.692_0.4995_1_shelf_0_0_1">
      <geometry>
        <box size="0.6719999999999999 0.4695 0.01" />
      </geometry>
      <origin xyz="0.0 0.005 0.43333333333333335" rpy="0.0 -0.0 0.0" />
      <material name="upper_right_cabinet_1.29_0.692_0.4995_1_shelf_0_0_1_main_color">
        <color rgba="0.4 0.4 0.4 1.0" />
      </material>
    </visual>
    <visual name="upper_right_cabinet_1.29_0.692_0.4995_1_surface_0_0">
      <geometry>
        <box size="0.6719999999999999 0.4695 0.01" />
      </geometry>
      <origin xyz="0.0 0.005 0.005000000000000009" rpy="0.0 -0.0 0.0" />
      <material name="upper_right_cabinet_1.29_0.692_0.4995_1_surface_0_0_main_color">
        <color rgba="0.4 0.4 0.4 1.0" />
      </material>
    </visual>
    <visual name="upper_right_cabinet_1.29_0.692_0.4995_1_top">
      <geometry>
        <box size="0.692 0.4795 0.01" />
      </geometry>
      <origin xyz="0.0 0.01 1.2850000000000001" rpy="0.0 -0.0 0.0" />
      <material name="upper_right_cabinet_1.29_0.692_0.4995_1_top_main_color">
        <color rgba="0.4 0.4 0.4 1.0" />
      </material>
    </visual>
    <collision name="upper_right_cabinet_1.29_0.692_0.4995_1_back">
      <geometry>
        <box size="0.692 0.01 1.28" />
      </geometry>
      <origin xyz="0.0 0.24475 0.64" rpy="0.0 -0.0 0.0" />
    </collision>
    <collision name="upper_right_cabinet_1.29_0.692_0.4995_1_left">
      <geometry>
        <box size="0.01 0.4695 1.28" />
      </geometry>
      <origin xyz="-0.34099999999999997 0.005 0.64" rpy="0.0 -0.0 0.0" />
    </collision>
    <collision name="upper_right_cabinet_1.29_0.692_0.4995_1_right">
      <geometry>
        <box size="0.01 0.4695 1.28" />
      </geometry>
      <origin xyz="0.34099999999999997 0.005 0.64" rpy="0.0 -0.0 0.0" />
    </collision>
    <collision name="upper_right_cabinet_1.29_0.692_0.4995_1_shelf_0_0_0">
      <geometry>
        <box size="0.6719999999999999 0.4695 0.01" />
      </geometry>
      <origin xyz="0.0 0.005 0.8566666666666667" rpy="0.0 -0.0 0.0" />
    </collision>
    <collision name="upper_right_cabinet_1.29_0.692_0.4995_1_shelf_0_0_1">
      <geometry>
        <box size="0.6719999999999999 0.4695 0.01" />
      </geometry>
      <origin xyz="0.0 0.005 0.43333333333333335" rpy="0.0 -0.0 0.0" />
    </collision>
    <collision name="upper_right_cabinet_1.29_0.692_0.4995_1_surface_0_0">
      <geometry>
        <box size="0.6719999999999999 0.4695 0.01" />
      </geometry>
      <origin xyz="0.0 0.005 0.005000000000000009" rpy="0.0 -0.0 0.0" />
    </collision>
    <collision name="upper_right_cabinet_1.29_0.692_0.4995_1_top">
      <geometry>
        <box size="0.692 0.4795 0.01" />
      </geometry>
      <origin xyz="0.0 0.01 1.2850000000000001" rpy="0.0 -0.0 0.0" />
    </collision>
  </link>
  <link name="upper_right_cabinet_1.29_0.692_0.4995_1_door_0_0">
    <inertial>
      <origin xyz="0.0 0.0 0.0" rpy="0.0 -0.0 0.0" />
      <mass value="0.09999999999999999" />
      <inertia ixx="1.0" ixy="0.0" ixz="0.0" iyy="1.0" iyz="0.0" izz="1.0" />
    </inertial>
    <visual><geometry><mesh filename="second_floor_kitchen_pipleine/upper_right_cabinet_1.29_0.692_0.4995_1.obj" /></geometry><material name="upper_right_cabinet_1.29_0.692_0.4995_1_door_0_0_material"><color rgba="0.8 0.8 0.8 1.0" /></material></visual><collision><geometry><box size="0.690000 0.168200 1.288000" /></geometry><origin xyz="0.345000 -0.026000 0.000000" rpy="0 0 0" /></collision></link>
  <link name="upper_left_cabinet_1.29_0.692_0.4995_0_corpus">
    <inertial>
      <origin xyz="0.0 0.0 0.0" rpy="0.0 -0.0 0.0" />
      <mass value="0.03366005999999999" />
      <inertia ixx="1.0" ixy="0.0" ixz="0.0" iyy="1.0" iyz="0.0" izz="1.0" />
    </inertial>
    <visual name="upper_left_cabinet_1.29_0.692_0.4995_0_back">
      <geometry>
        <box size="0.692 0.01 1.28" />
      </geometry>
      <origin xyz="0.0 0.24475 0.64" rpy="0.0 -0.0 0.0" />
      <material name="upper_left_cabinet_1.29_0.692_0.4995_0_back_main_color">
        <color rgba="0.4 0.4 0.4 1.0" />
      </material>
    </visual>
    <visual name="upper_left_cabinet_1.29_0.692_0.4995_0_left">
      <geometry>
        <box size="0.01 0.4695 1.28" />
      </geometry>
      <origin xyz="-0.34099999999999997 0.005 0.64" rpy="0.0 -0.0 0.0" />
      <material name="upper_left_cabinet_1.29_0.692_0.4995_0_left_main_color">
        <color rgba="0.4 0.4 0.4 1.0" />
      </material>
    </visual>
    <visual name="upper_left_cabinet_1.29_0.692_0.4995_0_right">
      <geometry>
        <box size="0.01 0.4695 1.28" />
      </geometry>
      <origin xyz="0.34099999999999997 0.005 0.64" rpy="0.0 -0.0 0.0" />
      <material name="upper_left_cabinet_1.29_0.692_0.4995_0_right_main_color">
        <color rgba="0.4 0.4 0.4 1.0" />
      </material>
    </visual>
    <visual name="upper_left_cabinet_1.29_0.692_0.4995_0_shelf_0_0_0">
      <geometry>
        <box size="0.6719999999999999 0.4695 0.01" />
      </geometry>
      <origin xyz="0.0 0.005 0.8566666666666667" rpy="0.0 -0.0 0.0" />
      <material name="upper_left_cabinet_1.29_0.692_0.4995_0_shelf_0_0_0_main_color">
        <color rgba="0.4 0.4 0.4 1.0" />
      </material>
    </visual>
    <visual name="upper_left_cabinet_1.29_0.692_0.4995_0_shelf_0_0_1">
      <geometry>
        <box size="0.6719999999999999 0.4695 0.01" />
      </geometry>
      <origin xyz="0.0 0.005 0.43333333333333335" rpy="0.0 -0.0 0.0" />
      <material name="upper_left_cabinet_1.29_0.692_0.4995_0_shelf_0_0_1_main_color">
        <color rgba="0.4 0.4 0.4 1.0" />
      </material>
    </visual>
    <visual name="upper_left_cabinet_1.29_0.692_0.4995_0_surface_0_0">
      <geometry>
        <box size="0.6719999999999999 0.4695 0.01" />
      </geometry>
      <origin xyz="0.0 0.005 0.005000000000000009" rpy="0.0 -0.0 0.0" />
      <material name="upper_left_cabinet_1.29_0.692_0.4995_0_surface_0_0_main_color">
        <color rgba="0.4 0.4 0.4 1.0" />
      </material>
    </visual>
    <visual name="upper_left_cabinet_1.29_0.692_0.4995_0_top">
      <geometry>
        <box size="0.692 0.4795 0.01" />
      </geometry>
      <origin xyz="0.0 0.01 1.2850000000000001" rpy="0.0 -0.0 0.0" />
      <material name="upper_left_cabinet_1.29_0.692_0.4995_0_top_main_color">
        <color rgba="0.4 0.4 0.4 1.0" />
      </material>
    </visual>
    <collision name="upper_left_cabinet_1.29_0.692_0.4995_0_back">
      <geometry>
        <box size="0.692 0.01 1.28" />
      </geometry>
      <origin xyz="0.0 0.24475 0.64" rpy="0.0 -0.0 0.0" />
    </collision>
    <collision name="upper_left_cabinet_1.29_0.692_0.4995_0_left">
      <geometry>
        <box size="0.01 0.4695 1.28" />
      </geometry>
      <origin xyz="-0.34099999999999997 0.005 0.64" rpy="0.0 -0.0 0.0" />
    </collision>
    <collision name="upper_left_cabinet_1.29_0.692_0.4995_0_right">
      <geometry>
        <box size="0.01 0.4695 1.28" />
      </geometry>
      <origin xyz="0.34099999999999997 0.005 0.64" rpy="0.0 -0.0 0.0" />
    </collision>
    <collision name="upper_left_cabinet_1.29_0.692_0.4995_0_shelf_0_0_0">
      <geometry>
        <box size="0.6719999999999999 0.4695 0.01" />
      </geometry>
      <origin xyz="0.0 0.005 0.8566666666666667" rpy="0.0 -0.0 0.0" />
    </collision>
    <collision name="upper_left_cabinet_1.29_0.692_0.4995_0_shelf_0_0_1">
      <geometry>
        <box size="0.6719999999999999 0.4695 0.01" />
      </geometry>
      <origin xyz="0.0 0.005 0.43333333333333335" rpy="0.0 -0.0 0.0" />
    </collision>
    <collision name="upper_left_cabinet_1.29_0.692_0.4995_0_surface_0_0">
      <geometry>
        <box size="0.6719999999999999 0.4695 0.01" />
      </geometry>
      <origin xyz="0.0 0.005 0.005000000000000009" rpy="0.0 -0.0 0.0" />
    </collision>
    <collision name="upper_left_cabinet_1.29_0.692_0.4995_0_top">
      <geometry>
        <box size="0.692 0.4795 0.01" />
      </geometry>
      <origin xyz="0.0 0.01 1.2850000000000001" rpy="0.0 -0.0 0.0" />
    </collision>
  </link>
  <link name="upper_left_cabinet_1.29_0.692_0.4995_0_door_0_0">
    <inertial>
      <origin xyz="0.0 0.0 0.0" rpy="0.0 -0.0 0.0" />
      <mass value="0.09999999999999999" />
      <inertia ixx="1.0" ixy="0.0" ixz="0.0" iyy="1.0" iyz="0.0" izz="1.0" />
    </inertial>
    <visual><geometry><mesh filename="second_floor_kitchen_pipleine/upper_left_cabinet_1.29_0.692_0.4995_0.obj" /></geometry><material name="upper_left_cabinet_1.29_0.692_0.4995_0_door_0_0_material"><color rgba="0.8 0.8 0.8 1.0" /></material></visual><collision><geometry><box size="0.690000 0.168200 1.288000" /></geometry><origin xyz="-0.345000 -0.026000 0.000000" rpy="0 0 0" /></collision></link>
  <link name="upper_right_cabinet_1.29_0.692_0.4995_2_corpus">
    <inertial>
      <origin xyz="0.0 0.0 0.0" rpy="0.0 -0.0 0.0" />
      <mass value="0.03366005999999999" />
      <inertia ixx="1.0" ixy="0.0" ixz="0.0" iyy="1.0" iyz="0.0" izz="1.0" />
    </inertial>
    <visual name="upper_right_cabinet_1.29_0.692_0.4995_2_back">
      <geometry>
        <box size="0.692 0.01 1.28" />
      </geometry>
      <origin xyz="0.0 0.24475 0.64" rpy="0.0 -0.0 0.0" />
      <material name="upper_right_cabinet_1.29_0.692_0.4995_2_back_main_color">
        <color rgba="0.4 0.4 0.4 1.0" />
      </material>
    </visual>
    <visual name="upper_right_cabinet_1.29_0.692_0.4995_2_left">
      <geometry>
        <box size="0.01 0.4695 1.28" />
      </geometry>
      <origin xyz="-0.34099999999999997 0.005 0.64" rpy="0.0 -0.0 0.0" />
      <material name="upper_right_cabinet_1.29_0.692_0.4995_2_left_main_color">
        <color rgba="0.4 0.4 0.4 1.0" />
      </material>
    </visual>
    <visual name="upper_right_cabinet_1.29_0.692_0.4995_2_right">
      <geometry>
        <box size="0.01 0.4695 1.28" />
      </geometry>
      <origin xyz="0.34099999999999997 0.005 0.64" rpy="0.0 -0.0 0.0" />
      <material name="upper_right_cabinet_1.29_0.692_0.4995_2_right_main_color">
        <color rgba="0.4 0.4 0.4 1.0" />
      </material>
    </visual>
    <visual name="upper_right_cabinet_1.29_0.692_0.4995_2_shelf_0_0_0">
      <geometry>
        <box size="0.6719999999999999 0.4695 0.01" />
      </geometry>
      <origin xyz="0.0 0.005 0.8566666666666667" rpy="0.0 -0.0 0.0" />
      <material name="upper_right_cabinet_1.29_0.692_0.4995_2_shelf_0_0_0_main_color">
        <color rgba="0.4 0.4 0.4 1.0" />
      </material>
    </visual>
    <visual name="upper_right_cabinet_1.29_0.692_0.4995_2_shelf_0_0_1">
      <geometry>
        <box size="0.6719999999999999 0.4695 0.01" />
      </geometry>
      <origin xyz="0.0 0.005 0.43333333333333335" rpy="0.0 -0.0 0.0" />
      <material name="upper_right_cabinet_1.29_0.692_0.4995_2_shelf_0_0_1_main_color">
        <color rgba="0.4 0.4 0.4 1.0" />
      </material>
    </visual>
    <visual name="upper_right_cabinet_1.29_0.692_0.4995_2_surface_0_0">
      <geometry>
        <box size="0.6719999999999999 0.4695 0.01" />
      </geometry>
      <origin xyz="0.0 0.005 0.005000000000000009" rpy="0.0 -0.0 0.0" />
      <material name="upper_right_cabinet_1.29_0.692_0.4995_2_surface_0_0_main_color">
        <color rgba="0.4 0.4 0.4 1.0" />
      </material>
    </visual>
    <visual name="upper_right_cabinet_1.29_0.692_0.4995_2_top">
      <geometry>
        <box size="0.692 0.4795 0.01" />
      </geometry>
      <origin xyz="0.0 0.01 1.2850000000000001" rpy="0.0 -0.0 0.0" />
      <material name="upper_right_cabinet_1.29_0.692_0.4995_2_top_main_color">
        <color rgba="0.4 0.4 0.4 1.0" />
      </material>
    </visual>
    <collision name="upper_right_cabinet_1.29_0.692_0.4995_2_back">
      <geometry>
        <box size="0.692 0.01 1.28" />
      </geometry>
      <origin xyz="0.0 0.24475 0.64" rpy="0.0 -0.0 0.0" />
    </collision>
    <collision name="upper_right_cabinet_1.29_0.692_0.4995_2_left">
      <geometry>
        <box size="0.01 0.4695 1.28" />
      </geometry>
      <origin xyz="-0.34099999999999997 0.005 0.64" rpy="0.0 -0.0 0.0" />
    </collision>
    <collision name="upper_right_cabinet_1.29_0.692_0.4995_2_right">
      <geometry>
        <box size="0.01 0.4695 1.28" />
      </geometry>
      <origin xyz="0.34099999999999997 0.005 0.64" rpy="0.0 -0.0 0.0" />
    </collision>
    <collision name="upper_right_cabinet_1.29_0.692_0.4995_2_shelf_0_0_0">
      <geometry>
        <box size="0.6719999999999999 0.4695 0.01" />
      </geometry>
      <origin xyz="0.0 0.005 0.8566666666666667" rpy="0.0 -0.0 0.0" />
    </collision>
    <collision name="upper_right_cabinet_1.29_0.692_0.4995_2_shelf_0_0_1">
      <geometry>
        <box size="0.6719999999999999 0.4695 0.01" />
      </geometry>
      <origin xyz="0.0 0.005 0.43333333333333335" rpy="0.0 -0.0 0.0" />
    </collision>
    <collision name="upper_right_cabinet_1.29_0.692_0.4995_2_surface_0_0">
      <geometry>
        <box size="0.6719999999999999 0.4695 0.01" />
      </geometry>
      <origin xyz="0.0 0.005 0.005000000000000009" rpy="0.0 -0.0 0.0" />
    </collision>
    <collision name="upper_right_cabinet_1.29_0.692_0.4995_2_top">
      <geometry>
        <box size="0.692 0.4795 0.01" />
      </geometry>
      <origin xyz="0.0 0.01 1.2850000000000001" rpy="0.0 -0.0 0.0" />
    </collision>
  </link>
  <link name="upper_right_cabinet_1.29_0.692_0.4995_2_door_0_0">
    <inertial>
      <origin xyz="0.0 0.0 0.0" rpy="0.0 -0.0 0.0" />
      <mass value="0.09999999999999999" />
      <inertia ixx="1.0" ixy="0.0" ixz="0.0" iyy="1.0" iyz="0.0" izz="1.0" />
    </inertial>
    <visual><geometry><mesh filename="second_floor_kitchen_pipleine/upper_right_cabinet_1.29_0.692_0.4995_2.obj" /></geometry><material name="upper_right_cabinet_1.29_0.692_0.4995_2_door_0_0_material"><color rgba="0.8 0.8 0.8 1.0" /></material></visual><collision><geometry><box size="0.690000 0.168200 1.288000" /></geometry><origin xyz="0.345000 -0.026000 0.000000" rpy="0 0 0" /></collision></link>
  <link name="upper_left_cabinet_1.29_0.692_0.4995_1_corpus">
    <inertial>
      <origin xyz="0.0 0.0 0.0" rpy="0.0 -0.0 0.0" />
      <mass value="0.03366005999999999" />
      <inertia ixx="1.0" ixy="0.0" ixz="0.0" iyy="1.0" iyz="0.0" izz="1.0" />
    </inertial>
    <visual name="upper_left_cabinet_1.29_0.692_0.4995_1_back">
      <geometry>
        <box size="0.692 0.01 1.28" />
      </geometry>
      <origin xyz="0.0 0.24475 0.64" rpy="0.0 -0.0 0.0" />
      <material name="upper_left_cabinet_1.29_0.692_0.4995_1_back_main_color">
        <color rgba="0.4 0.4 0.4 1.0" />
      </material>
    </visual>
    <visual name="upper_left_cabinet_1.29_0.692_0.4995_1_left">
      <geometry>
        <box size="0.01 0.4695 1.28" />
      </geometry>
      <origin xyz="-0.34099999999999997 0.005 0.64" rpy="0.0 -0.0 0.0" />
      <material name="upper_left_cabinet_1.29_0.692_0.4995_1_left_main_color">
        <color rgba="0.4 0.4 0.4 1.0" />
      </material>
    </visual>
    <visual name="upper_left_cabinet_1.29_0.692_0.4995_1_right">
      <geometry>
        <box size="0.01 0.4695 1.28" />
      </geometry>
      <origin xyz="0.34099999999999997 0.005 0.64" rpy="0.0 -0.0 0.0" />
      <material name="upper_left_cabinet_1.29_0.692_0.4995_1_right_main_color">
        <color rgba="0.4 0.4 0.4 1.0" />
      </material>
    </visual>
    <visual name="upper_left_cabinet_1.29_0.692_0.4995_1_shelf_0_0_0">
      <geometry>
        <box size="0.6719999999999999 0.4695 0.01" />
      </geometry>
      <origin xyz="0.0 0.005 0.8566666666666667" rpy="0.0 -0.0 0.0" />
      <material name="upper_left_cabinet_1.29_0.692_0.4995_1_shelf_0_0_0_main_color">
        <color rgba="0.4 0.4 0.4 1.0" />
      </material>
    </visual>
    <visual name="upper_left_cabinet_1.29_0.692_0.4995_1_shelf_0_0_1">
      <geometry>
        <box size="0.6719999999999999 0.4695 0.01" />
      </geometry>
      <origin xyz="0.0 0.005 0.43333333333333335" rpy="0.0 -0.0 0.0" />
      <material name="upper_left_cabinet_1.29_0.692_0.4995_1_shelf_0_0_1_main_color">
        <color rgba="0.4 0.4 0.4 1.0" />
      </material>
    </visual>
    <visual name="upper_left_cabinet_1.29_0.692_0.4995_1_surface_0_0">
      <geometry>
        <box size="0.6719999999999999 0.4695 0.01" />
      </geometry>
      <origin xyz="0.0 0.005 0.005000000000000009" rpy="0.0 -0.0 0.0" />
      <material name="upper_left_cabinet_1.29_0.692_0.4995_1_surface_0_0_main_color">
        <color rgba="0.4 0.4 0.4 1.0" />
      </material>
    </visual>
    <visual name="upper_left_cabinet_1.29_0.692_0.4995_1_top">
      <geometry>
        <box size="0.692 0.4795 0.01" />
      </geometry>
      <origin xyz="0.0 0.01 1.2850000000000001" rpy="0.0 -0.0 0.0" />
      <material name="upper_left_cabinet_1.29_0.692_0.4995_1_top_main_color">
        <color rgba="0.4 0.4 0.4 1.0" />
      </material>
    </visual>
    <collision name="upper_left_cabinet_1.29_0.692_0.4995_1_back">
      <geometry>
        <box size="0.692 0.01 1.28" />
      </geometry>
      <origin xyz="0.0 0.24475 0.64" rpy="0.0 -0.0 0.0" />
    </collision>
    <collision name="upper_left_cabinet_1.29_0.692_0.4995_1_left">
      <geometry>
        <box size="0.01 0.4695 1.28" />
      </geometry>
      <origin xyz="-0.34099999999999997 0.005 0.64" rpy="0.0 -0.0 0.0" />
    </collision>
    <collision name="upper_left_cabinet_1.29_0.692_0.4995_1_right">
      <geometry>
        <box size="0.01 0.4695 1.28" />
      </geometry>
      <origin xyz="0.34099999999999997 0.005 0.64" rpy="0.0 -0.0 0.0" />
    </collision>
    <collision name="upper_left_cabinet_1.29_0.692_0.4995_1_shelf_0_0_0">
      <geometry>
        <box size="0.6719999999999999 0.4695 0.01" />
      </geometry>
      <origin xyz="0.0 0.005 0.8566666666666667" rpy="0.0 -0.0 0.0" />
    </collision>
    <collision name="upper_left_cabinet_1.29_0.692_0.4995_1_shelf_0_0_1">
      <geometry>
        <box size="0.6719999999999999 0.4695 0.01" />
      </geometry>
      <origin xyz="0.0 0.005 0.43333333333333335" rpy="0.0 -0.0 0.0" />
    </collision>
    <collision name="upper_left_cabinet_1.29_0.692_0.4995_1_surface_0_0">
      <geometry>
        <box size="0.6719999999999999 0.4695 0.01" />
      </geometry>
      <origin xyz="0.0 0.005 0.005000000000000009" rpy="0.0 -0.0 0.0" />
    </collision>
    <collision name="upper_left_cabinet_1.29_0.692_0.4995_1_top">
      <geometry>
        <box size="0.692 0.4795 0.01" />
      </geometry>
      <origin xyz="0.0 0.01 1.2850000000000001" rpy="0.0 -0.0 0.0" />
    </collision>
  </link>
  <link name="upper_left_cabinet_1.29_0.692_0.4995_1_door_0_0">
    <inertial>
      <origin xyz="0.0 0.0 0.0" rpy="0.0 -0.0 0.0" />
      <mass value="0.09999999999999999" />
      <inertia ixx="1.0" ixy="0.0" ixz="0.0" iyy="1.0" iyz="0.0" izz="1.0" />
    </inertial>
    <visual><geometry><mesh filename="second_floor_kitchen_pipleine/upper_left_cabinet_1.29_0.692_0.4995_1.obj" /></geometry><material name="upper_left_cabinet_1.29_0.692_0.4995_1_door_0_0_material"><color rgba="0.8 0.8 0.8 1.0" /></material></visual><collision><geometry><box size="0.690000 0.168200 1.288000" /></geometry><origin xyz="-0.345000 -0.026000 0.000000" rpy="0 0 0" /></collision></link>
  <link name="upper_right_cabinet_1.29_0.692_0.4995_3_corpus">
    <inertial>
      <origin xyz="0.0 0.0 0.0" rpy="0.0 -0.0 0.0" />
      <mass value="0.03366005999999999" />
      <inertia ixx="1.0" ixy="0.0" ixz="0.0" iyy="1.0" iyz="0.0" izz="1.0" />
    </inertial>
    <visual name="upper_right_cabinet_1.29_0.692_0.4995_3_back">
      <geometry>
        <box size="0.692 0.01 1.28" />
      </geometry>
      <origin xyz="0.0 0.24475 0.64" rpy="0.0 -0.0 0.0" />
      <material name="upper_right_cabinet_1.29_0.692_0.4995_3_back_main_color">
        <color rgba="0.4 0.4 0.4 1.0" />
      </material>
    </visual>
    <visual name="upper_right_cabinet_1.29_0.692_0.4995_3_left">
      <geometry>
        <box size="0.01 0.4695 1.28" />
      </geometry>
      <origin xyz="-0.34099999999999997 0.005 0.64" rpy="0.0 -0.0 0.0" />
      <material name="upper_right_cabinet_1.29_0.692_0.4995_3_left_main_color">
        <color rgba="0.4 0.4 0.4 1.0" />
      </material>
    </visual>
    <visual name="upper_right_cabinet_1.29_0.692_0.4995_3_right">
      <geometry>
        <box size="0.01 0.4695 1.28" />
      </geometry>
      <origin xyz="0.34099999999999997 0.005 0.64" rpy="0.0 -0.0 0.0" />
      <material name="upper_right_cabinet_1.29_0.692_0.4995_3_right_main_color">
        <color rgba="0.4 0.4 0.4 1.0" />
      </material>
    </visual>
    <visual name="upper_right_cabinet_1.29_0.692_0.4995_3_shelf_0_0_0">
      <geometry>
        <box size="0.6719999999999999 0.4695 0.01" />
      </geometry>
      <origin xyz="0.0 0.005 0.8566666666666667" rpy="0.0 -0.0 0.0" />
      <material name="upper_right_cabinet_1.29_0.692_0.4995_3_shelf_0_0_0_main_color">
        <color rgba="0.4 0.4 0.4 1.0" />
      </material>
    </visual>
    <visual name="upper_right_cabinet_1.29_0.692_0.4995_3_shelf_0_0_1">
      <geometry>
        <box size="0.6719999999999999 0.4695 0.01" />
      </geometry>
      <origin xyz="0.0 0.005 0.43333333333333335" rpy="0.0 -0.0 0.0" />
      <material name="upper_right_cabinet_1.29_0.692_0.4995_3_shelf_0_0_1_main_color">
        <color rgba="0.4 0.4 0.4 1.0" />
      </material>
    </visual>
    <visual name="upper_right_cabinet_1.29_0.692_0.4995_3_surface_0_0">
      <geometry>
        <box size="0.6719999999999999 0.4695 0.01" />
      </geometry>
      <origin xyz="0.0 0.005 0.005000000000000009" rpy="0.0 -0.0 0.0" />
      <material name="upper_right_cabinet_1.29_0.692_0.4995_3_surface_0_0_main_color">
        <color rgba="0.4 0.4 0.4 1.0" />
      </material>
    </visual>
    <visual name="upper_right_cabinet_1.29_0.692_0.4995_3_top">
      <geometry>
        <box size="0.692 0.4795 0.01" />
      </geometry>
      <origin xyz="0.0 0.01 1.2850000000000001" rpy="0.0 -0.0 0.0" />
      <material name="upper_right_cabinet_1.29_0.692_0.4995_3_top_main_color">
        <color rgba="0.4 0.4 0.4 1.0" />
      </material>
    </visual>
    <collision name="upper_right_cabinet_1.29_0.692_0.4995_3_back">
      <geometry>
        <box size="0.692 0.01 1.28" />
      </geometry>
      <origin xyz="0.0 0.24475 0.64" rpy="0.0 -0.0 0.0" />
    </collision>
    <collision name="upper_right_cabinet_1.29_0.692_0.4995_3_left">
      <geometry>
        <box size="0.01 0.4695 1.28" />
      </geometry>
      <origin xyz="-0.34099999999999997 0.005 0.64" rpy="0.0 -0.0 0.0" />
    </collision>
    <collision name="upper_right_cabinet_1.29_0.692_0.4995_3_right">
      <geometry>
        <box size="0.01 0.4695 1.28" />
      </geometry>
      <origin xyz="0.34099999999999997 0.005 0.64" rpy="0.0 -0.0 0.0" />
    </collision>
    <collision name="upper_right_cabinet_1.29_0.692_0.4995_3_shelf_0_0_0">
      <geometry>
        <box size="0.6719999999999999 0.4695 0.01" />
      </geometry>
      <origin xyz="0.0 0.005 0.8566666666666667" rpy="0.0 -0.0 0.0" />
    </collision>
    <collision name="upper_right_cabinet_1.29_0.692_0.4995_3_shelf_0_0_1">
      <geometry>
        <box size="0.6719999999999999 0.4695 0.01" />
      </geometry>
      <origin xyz="0.0 0.005 0.43333333333333335" rpy="0.0 -0.0 0.0" />
    </collision>
    <collision name="upper_right_cabinet_1.29_0.692_0.4995_3_surface_0_0">
      <geometry>
        <box size="0.6719999999999999 0.4695 0.01" />
      </geometry>
      <origin xyz="0.0 0.005 0.005000000000000009" rpy="0.0 -0.0 0.0" />
    </collision>
    <collision name="upper_right_cabinet_1.29_0.692_0.4995_3_top">
      <geometry>
        <box size="0.692 0.4795 0.01" />
      </geometry>
      <origin xyz="0.0 0.01 1.2850000000000001" rpy="0.0 -0.0 0.0" />
    </collision>
  </link>
  <link name="upper_right_cabinet_1.29_0.692_0.4995_3_door_0_0">
    <inertial>
      <origin xyz="0.0 0.0 0.0" rpy="0.0 -0.0 0.0" />
      <mass value="0.09999999999999999" />
      <inertia ixx="1.0" ixy="0.0" ixz="0.0" iyy="1.0" iyz="0.0" izz="1.0" />
    </inertial>
    <visual><geometry><mesh filename="second_floor_kitchen_pipleine/upper_right_cabinet_1.29_0.692_0.4995_3.obj" /></geometry><material name="upper_right_cabinet_1.29_0.692_0.4995_3_door_0_0_material"><color rgba="0.8 0.8 0.8 1.0" /></material></visual><collision><geometry><box size="0.690000 0.168200 1.288000" /></geometry><origin xyz="0.345000 -0.026000 0.000000" rpy="0 0 0" /></collision></link>
  <link name="upper_left_cabinet_1.29_0.692_0.4995_2_corpus">
    <inertial>
      <origin xyz="0.0 0.0 0.0" rpy="0.0 -0.0 0.0" />
      <mass value="0.03366005999999999" />
      <inertia ixx="1.0" ixy="0.0" ixz="0.0" iyy="1.0" iyz="0.0" izz="1.0" />
    </inertial>
    <visual name="upper_left_cabinet_1.29_0.692_0.4995_2_back">
      <geometry>
        <box size="0.692 0.01 1.28" />
      </geometry>
      <origin xyz="0.0 0.24475 0.64" rpy="0.0 -0.0 0.0" />
      <material name="upper_left_cabinet_1.29_0.692_0.4995_2_back_main_color">
        <color rgba="0.4 0.4 0.4 1.0" />
      </material>
    </visual>
    <visual name="upper_left_cabinet_1.29_0.692_0.4995_2_left">
      <geometry>
        <box size="0.01 0.4695 1.28" />
      </geometry>
      <origin xyz="-0.34099999999999997 0.005 0.64" rpy="0.0 -0.0 0.0" />
      <material name="upper_left_cabinet_1.29_0.692_0.4995_2_left_main_color">
        <color rgba="0.4 0.4 0.4 1.0" />
      </material>
    </visual>
    <visual name="upper_left_cabinet_1.29_0.692_0.4995_2_right">
      <geometry>
        <box size="0.01 0.4695 1.28" />
      </geometry>
      <origin xyz="0.34099999999999997 0.005 0.64" rpy="0.0 -0.0 0.0" />
      <material name="upper_left_cabinet_1.29_0.692_0.4995_2_right_main_color">
        <color rgba="0.4 0.4 0.4 1.0" />
      </material>
    </visual>
    <visual name="upper_left_cabinet_1.29_0.692_0.4995_2_shelf_0_0_0">
      <geometry>
        <box size="0.6719999999999999 0.4695 0.01" />
      </geometry>
      <origin xyz="0.0 0.005 0.8566666666666667" rpy="0.0 -0.0 0.0" />
      <material name="upper_left_cabinet_1.29_0.692_0.4995_2_shelf_0_0_0_main_color">
        <color rgba="0.4 0.4 0.4 1.0" />
      </material>
    </visual>
    <visual name="upper_left_cabinet_1.29_0.692_0.4995_2_shelf_0_0_1">
      <geometry>
        <box size="0.6719999999999999 0.4695 0.01" />
      </geometry>
      <origin xyz="0.0 0.005 0.43333333333333335" rpy="0.0 -0.0 0.0" />
      <material name="upper_left_cabinet_1.29_0.692_0.4995_2_shelf_0_0_1_main_color">
        <color rgba="0.4 0.4 0.4 1.0" />
      </material>
    </visual>
    <visual name="upper_left_cabinet_1.29_0.692_0.4995_2_surface_0_0">
      <geometry>
        <box size="0.6719999999999999 0.4695 0.01" />
      </geometry>
      <origin xyz="0.0 0.005 0.005000000000000009" rpy="0.0 -0.0 0.0" />
      <material name="upper_left_cabinet_1.29_0.692_0.4995_2_surface_0_0_main_color">
        <color rgba="0.4 0.4 0.4 1.0" />
      </material>
    </visual>
    <visual name="upper_left_cabinet_1.29_0.692_0.4995_2_top">
      <geometry>
        <box size="0.692 0.4795 0.01" />
      </geometry>
      <origin xyz="0.0 0.01 1.2850000000000001" rpy="0.0 -0.0 0.0" />
      <material name="upper_left_cabinet_1.29_0.692_0.4995_2_top_main_color">
        <color rgba="0.4 0.4 0.4 1.0" />
      </material>
    </visual>
    <collision name="upper_left_cabinet_1.29_0.692_0.4995_2_back">
      <geometry>
        <box size="0.692 0.01 1.28" />
      </geometry>
      <origin xyz="0.0 0.24475 0.64" rpy="0.0 -0.0 0.0" />
    </collision>
    <collision name="upper_left_cabinet_1.29_0.692_0.4995_2_left">
      <geometry>
        <box size="0.01 0.4695 1.28" />
      </geometry>
      <origin xyz="-0.34099999999999997 0.005 0.64" rpy="0.0 -0.0 0.0" />
    </collision>
    <collision name="upper_left_cabinet_1.29_0.692_0.4995_2_right">
      <geometry>
        <box size="0.01 0.4695 1.28" />
      </geometry>
      <origin xyz="0.34099999999999997 0.005 0.64" rpy="0.0 -0.0 0.0" />
    </collision>
    <collision name="upper_left_cabinet_1.29_0.692_0.4995_2_shelf_0_0_0">
      <geometry>
        <box size="0.6719999999999999 0.4695 0.01" />
      </geometry>
      <origin xyz="0.0 0.005 0.8566666666666667" rpy="0.0 -0.0 0.0" />
    </collision>
    <collision name="upper_left_cabinet_1.29_0.692_0.4995_2_shelf_0_0_1">
      <geometry>
        <box size="0.6719999999999999 0.4695 0.01" />
      </geometry>
      <origin xyz="0.0 0.005 0.43333333333333335" rpy="0.0 -0.0 0.0" />
    </collision>
    <collision name="upper_left_cabinet_1.29_0.692_0.4995_2_surface_0_0">
      <geometry>
        <box size="0.6719999999999999 0.4695 0.01" />
      </geometry>
      <origin xyz="0.0 0.005 0.005000000000000009" rpy="0.0 -0.0 0.0" />
    </collision>
    <collision name="upper_left_cabinet_1.29_0.692_0.4995_2_top">
      <geometry>
        <box size="0.692 0.4795 0.01" />
      </geometry>
      <origin xyz="0.0 0.01 1.2850000000000001" rpy="0.0 -0.0 0.0" />
    </collision>
  </link>
  <link name="upper_left_cabinet_1.29_0.692_0.4995_2_door_0_0">
    <inertial>
      <origin xyz="0.0 0.0 0.0" rpy="0.0 -0.0 0.0" />
      <mass value="0.09999999999999999" />
      <inertia ixx="1.0" ixy="0.0" ixz="0.0" iyy="1.0" iyz="0.0" izz="1.0" />
    </inertial>
    <visual><geometry><mesh filename="second_floor_kitchen_pipleine/upper_left_cabinet_1.29_0.692_0.4995_2.obj" /></geometry><material name="upper_left_cabinet_1.29_0.692_0.4995_2_door_0_0_material"><color rgba="0.8 0.8 0.8 1.0" /></material></visual><collision><geometry><box size="0.690000 0.168200 1.288000" /></geometry><origin xyz="-0.345000 -0.026000 0.000000" rpy="0 0 0" /></collision></link>
  <link name="big_upper_cabinet_1.29_0.692_0.4995_3_corpus">
    <inertial>
      <origin xyz="0.0 0.0 0.0" rpy="0.0 -0.0 0.0" />
      <mass value="0.04338581999999999" />
      <inertia ixx="1.0" ixy="0.0" ixz="0.0" iyy="1.0" iyz="0.0" izz="1.0" />
    </inertial>
    <visual name="big_upper_cabinet_1.29_0.692_0.4995_3_back">
      <geometry>
        <box size="0.999 0.01 1.28" />
      </geometry>
      <origin xyz="0.0 0.24475 0.64" rpy="0.0 -0.0 0.0" />
      <material name="big_upper_cabinet_1.29_0.692_0.4995_3_back_main_color">
        <color rgba="0.4 0.4 0.4 1.0" />
      </material>
    </visual>
    <visual name="big_upper_cabinet_1.29_0.692_0.4995_3_left">
      <geometry>
        <box size="0.01 0.4695 1.28" />
      </geometry>
      <origin xyz="-0.4945 0.005 0.64" rpy="0.0 -0.0 0.0" />
      <material name="big_upper_cabinet_1.29_0.692_0.4995_3_left_main_color">
        <color rgba="0.4 0.4 0.4 1.0" />
      </material>
    </visual>
    <visual name="big_upper_cabinet_1.29_0.692_0.4995_3_right">
      <geometry>
        <box size="0.01 0.4695 1.28" />
      </geometry>
      <origin xyz="0.4945 0.005 0.64" rpy="0.0 -0.0 0.0" />
      <material name="big_upper_cabinet_1.29_0.692_0.4995_3_right_main_color">
        <color rgba="0.4 0.4 0.4 1.0" />
      </material>
    </visual>
    <visual name="big_upper_cabinet_1.29_0.692_0.4995_3_shelf_0_0_0">
      <geometry>
        <box size="0.979 0.4695 0.01" />
      </geometry>
      <origin xyz="0.0 0.005 0.8566666666666667" rpy="0.0 -0.0 0.0" />
      <material name="big_upper_cabinet_1.29_0.692_0.4995_3_shelf_0_0_0_main_color">
        <color rgba="0.4 0.4 0.4 1.0" />
      </material>
    </visual>
    <visual name="big_upper_cabinet_1.29_0.692_0.4995_3_shelf_0_0_1">
      <geometry>
        <box size="0.979 0.4695 0.01" />
      </geometry>
      <origin xyz="0.0 0.005 0.43333333333333335" rpy="0.0 -0.0 0.0" />
      <material name="big_upper_cabinet_1.29_0.692_0.4995_3_shelf_0_0_1_main_color">
        <color rgba="0.4 0.4 0.4 1.0" />
      </material>
    </visual>
    <visual name="big_upper_cabinet_1.29_0.692_0.4995_3_surface_0_0">
      <geometry>
        <box size="0.979 0.4695 0.01" />
      </geometry>
      <origin xyz="0.0 0.005 0.005000000000000009" rpy="0.0 -0.0 0.0" />
      <material name="big_upper_cabinet_1.29_0.692_0.4995_3_surface_0_0_main_color">
        <color rgba="0.4 0.4 0.4 1.0" />
      </material>
    </visual>
    <visual name="big_upper_cabinet_1.29_0.692_0.4995_3_top">
      <geometry>
        <box size="0.999 0.4795 0.01" />
      </geometry>
      <origin xyz="0.0 0.01 1.2850000000000001" rpy="0.0 -0.0 0.0" />
      <material name="big_upper_cabinet_1.29_0.692_0.4995_3_top_main_color">
        <color rgba="0.4 0.4 0.4 1.0" />
      </material>
    </visual>
    <collision name="big_upper_cabinet_1.29_0.692_0.4995_3_back">
      <geometry>
        <box size="0.999 0.01 1.28" />
      </geometry>
      <origin xyz="0.0 0.24475 0.64" rpy="0.0 -0.0 0.0" />
    </collision>
    <collision name="big_upper_cabinet_1.29_0.692_0.4995_3_left">
      <geometry>
        <box size="0.01 0.4695 1.28" />
      </geometry>
      <origin xyz="-0.4945 0.005 0.64" rpy="0.0 -0.0 0.0" />
    </collision>
    <collision name="big_upper_cabinet_1.29_0.692_0.4995_3_right">
      <geometry>
        <box size="0.01 0.4695 1.28" />
      </geometry>
      <origin xyz="0.4945 0.005 0.64" rpy="0.0 -0.0 0.0" />
    </collision>
    <collision name="big_upper_cabinet_1.29_0.692_0.4995_3_shelf_0_0_0">
      <geometry>
        <box size="0.979 0.4695 0.01" />
      </geometry>
      <origin xyz="0.0 0.005 0.8566666666666667" rpy="0.0 -0.0 0.0" />
    </collision>
    <collision name="big_upper_cabinet_1.29_0.692_0.4995_3_shelf_0_0_1">
      <geometry>
        <box size="0.979 0.4695 0.01" />
      </geometry>
      <origin xyz="0.0 0.005 0.43333333333333335" rpy="0.0 -0.0 0.0" />
    </collision>
    <collision name="big_upper_cabinet_1.29_0.692_0.4995_3_surface_0_0">
      <geometry>
        <box size="0.979 0.4695 0.01" />
      </geometry>
      <origin xyz="0.0 0.005 0.005000000000000009" rpy="0.0 -0.0 0.0" />
    </collision>
    <collision name="big_upper_cabinet_1.29_0.692_0.4995_3_top">
      <geometry>
        <box size="0.999 0.4795 0.01" />
      </geometry>
      <origin xyz="0.0 0.01 1.2850000000000001" rpy="0.0 -0.0 0.0" />
    </collision>
  </link>
  <link name="big_upper_cabinet_1.29_0.692_0.4995_3_door_0_0">
    <inertial>
      <origin xyz="0.0 0.0 0.0" rpy="0.0 -0.0 0.0" />
      <mass value="0.1" />
      <inertia ixx="1.0" ixy="0.0" ixz="0.0" iyy="1.0" iyz="0.0" izz="1.0" />
    </inertial>
    <visual><geometry><mesh filename="second_floor_kitchen_pipleine/big_upper_cabinet_1.29_0.692_0.4995_3.obj" /></geometry><material name="big_upper_cabinet_1.29_0.692_0.4995_3_door_0_0_material"><color rgba="0.8 0.8 0.8 1.0" /></material></visual><collision><geometry><box size="0.997000 0.168200 1.288000" /></geometry><origin xyz="-0.498500 -0.026000 0.000000" rpy="0 0 0" /></collision></link>
  <link name="big_drawer_0.421_0.692_0.999_0_corpus">
    <inertial>
      <origin xyz="0.0 0.0 0.0" rpy="0.0 -0.0 0.0" />
      <mass value="0.04698691999999999" />
      <inertia ixx="1.0" ixy="0.0" ixz="0.0" iyy="1.0" iyz="0.0" izz="1.0" />
    </inertial>
    <visual name="big_drawer_0.421_0.692_0.999_0_back">
      <geometry>
        <box size="0.692 0.02 0.40099999999999997" />
      </geometry>
      <origin xyz="0.0 0.4895 0.20049999999999998" rpy="0.0 -0.0 0.0" />
      <material name="big_drawer_0.421_0.692_0.999_0_back_main_color">
        <color rgba="0.4 0.4 0.4 1.0" />
      </material>
    </visual>
    <visual name="big_drawer_0.421_0.692_0.999_0_left">
      <geometry>
        <box size="0.02 0.959 0.40099999999999997" />
      </geometry>
      <origin xyz="-0.33599999999999997 0.0 0.20049999999999998" rpy="0.0 -0.0 0.0" />
      <material name="big_drawer_0.421_0.692_0.999_0_left_main_color">
        <color rgba="0.4 0.4 0.4 1.0" />
      </material>
    </visual>
    <visual name="big_drawer_0.421_0.692_0.999_0_right">
      <geometry>
        <box size="0.02 0.959 0.40099999999999997" />
      </geometry>
      <origin xyz="0.33599999999999997 0.0 0.20049999999999998" rpy="0.0 -0.0 0.0" />
      <material name="big_drawer_0.421_0.692_0.999_0_right_main_color">
        <color rgba="0.4 0.4 0.4 1.0" />
      </material>
    </visual>
    <visual name="big_drawer_0.421_0.692_0.999_0_surface_0_0">
      <geometry>
        <box size="0.6519999999999999 0.959 0.02" />
      </geometry>
      <origin xyz="0.0 0.0 0.009999999999999962" rpy="0.0 -0.0 0.0" />
      <material name="big_drawer_0.421_0.692_0.999_0_surface_0_0_main_color">
        <color rgba="0.4 0.4 0.4 1.0" />
      </material>
    </visual>
    <visual name="big_drawer_0.421_0.692_0.999_0_top">
      <geometry>
        <box size="0.692 0.979 0.02" />
      </geometry>
      <origin xyz="0.0 0.01 0.411" rpy="0.0 -0.0 0.0" />
      <material name="big_drawer_0.421_0.692_0.999_0_top_main_color">
        <color rgba="0.4 0.4 0.4 1.0" />
      </material>
    </visual>
    <collision name="big_drawer_0.421_0.692_0.999_0_back">
      <geometry>
        <box size="0.692 0.02 0.40099999999999997" />
      </geometry>
      <origin xyz="0.0 0.4895 0.20049999999999998" rpy="0.0 -0.0 0.0" />
    </collision>
    <collision name="big_drawer_0.421_0.692_0.999_0_left">
      <geometry>
        <box size="0.02 0.959 0.40099999999999997" />
      </geometry>
      <origin xyz="-0.33599999999999997 0.0 0.20049999999999998" rpy="0.0 -0.0 0.0" />
    </collision>
    <collision name="big_drawer_0.421_0.692_0.999_0_right">
      <geometry>
        <box size="0.02 0.959 0.40099999999999997" />
      </geometry>
      <origin xyz="0.33599999999999997 0.0 0.20049999999999998" rpy="0.0 -0.0 0.0" />
    </collision>
    <collision name="big_drawer_0.421_0.692_0.999_0_surface_0_0">
      <geometry>
        <box size="0.6519999999999999 0.959 0.02" />
      </geometry>
      <origin xyz="0.0 0.0 0.009999999999999962" rpy="0.0 -0.0 0.0" />
    </collision>
    <collision name="big_drawer_0.421_0.692_0.999_0_top">
      <geometry>
        <box size="0.692 0.979 0.02" />
      </geometry>
      <origin xyz="0.0 0.01 0.411" rpy="0.0 -0.0 0.0" />
    </collision>
  </link>
  <link name="big_drawer_0.421_0.692_0.999_0_drawer_0_0">
    <inertial>
      <origin xyz="0.0 0.0 0.0" rpy="0.0 -0.0 0.0" />
      <mass value="0.10000000000000002" />
      <inertia ixx="1.0" ixy="0.0" ixz="0.0" iyy="1.0" iyz="0.0" izz="1.0" />
    </inertial>
    <visual><geometry><mesh filename="second_floor_kitchen_pipleine/big_drawer_0.421_0.692_0.999_0.obj" /></geometry><material name="big_drawer_0.421_0.692_0.999_0_drawer_0_0_material"><color rgba="0.8 0.8 0.8 1.0" /></material></visual><collision><geometry><box size="0.688000 0.991200 0.417000" /></geometry><origin xyz="0.000000 0.365500 0.000000" rpy="0 0 0" /></collision></link>
  <link name="big_drawer_0.421_0.692_0.999_1_corpus">
    <inertial>
      <origin xyz="0.0 0.0 0.0" rpy="0.0 -0.0 0.0" />
      <mass value="0.04698691999999999" />
      <inertia ixx="1.0" ixy="0.0" ixz="0.0" iyy="1.0" iyz="0.0" izz="1.0" />
    </inertial>
    <visual name="big_drawer_0.421_0.692_0.999_1_back">
      <geometry>
        <box size="0.692 0.02 0.40099999999999997" />
      </geometry>
      <origin xyz="0.0 0.4895 0.20049999999999998" rpy="0.0 -0.0 0.0" />
      <material name="big_drawer_0.421_0.692_0.999_1_back_main_color">
        <color rgba="0.4 0.4 0.4 1.0" />
      </material>
    </visual>
    <visual name="big_drawer_0.421_0.692_0.999_1_left">
      <geometry>
        <box size="0.02 0.959 0.40099999999999997" />
      </geometry>
      <origin xyz="-0.33599999999999997 0.0 0.20049999999999998" rpy="0.0 -0.0 0.0" />
      <material name="big_drawer_0.421_0.692_0.999_1_left_main_color">
        <color rgba="0.4 0.4 0.4 1.0" />
      </material>
    </visual>
    <visual name="big_drawer_0.421_0.692_0.999_1_right">
      <geometry>
        <box size="0.02 0.959 0.40099999999999997" />
      </geometry>
      <origin xyz="0.33599999999999997 0.0 0.20049999999999998" rpy="0.0 -0.0 0.0" />
      <material name="big_drawer_0.421_0.692_0.999_1_right_main_color">
        <color rgba="0.4 0.4 0.4 1.0" />
      </material>
    </visual>
    <visual name="big_drawer_0.421_0.692_0.999_1_surface_0_0">
      <geometry>
        <box size="0.6519999999999999 0.959 0.02" />
      </geometry>
      <origin xyz="0.0 0.0 0.009999999999999962" rpy="0.0 -0.0 0.0" />
      <material name="big_drawer_0.421_0.692_0.999_1_surface_0_0_main_color">
        <color rgba="0.4 0.4 0.4 1.0" />
      </material>
    </visual>
    <visual name="big_drawer_0.421_0.692_0.999_1_top">
      <geometry>
        <box size="0.692 0.979 0.02" />
      </geometry>
      <origin xyz="0.0 0.01 0.411" rpy="0.0 -0.0 0.0" />
      <material name="big_drawer_0.421_0.692_0.999_1_top_main_color">
        <color rgba="0.4 0.4 0.4 1.0" />
      </material>
    </visual>
    <collision name="big_drawer_0.421_0.692_0.999_1_back">
      <geometry>
        <box size="0.692 0.02 0.40099999999999997" />
      </geometry>
      <origin xyz="0.0 0.4895 0.20049999999999998" rpy="0.0 -0.0 0.0" />
    </collision>
    <collision name="big_drawer_0.421_0.692_0.999_1_left">
      <geometry>
        <box size="0.02 0.959 0.40099999999999997" />
      </geometry>
      <origin xyz="-0.33599999999999997 0.0 0.20049999999999998" rpy="0.0 -0.0 0.0" />
    </collision>
    <collision name="big_drawer_0.421_0.692_0.999_1_right">
      <geometry>
        <box size="0.02 0.959 0.40099999999999997" />
      </geometry>
      <origin xyz="0.33599999999999997 0.0 0.20049999999999998" rpy="0.0 -0.0 0.0" />
    </collision>
    <collision name="big_drawer_0.421_0.692_0.999_1_surface_0_0">
      <geometry>
        <box size="0.6519999999999999 0.959 0.02" />
      </geometry>
      <origin xyz="0.0 0.0 0.009999999999999962" rpy="0.0 -0.0 0.0" />
    </collision>
    <collision name="big_drawer_0.421_0.692_0.999_1_top">
      <geometry>
        <box size="0.692 0.979 0.02" />
      </geometry>
      <origin xyz="0.0 0.01 0.411" rpy="0.0 -0.0 0.0" />
    </collision>
  </link>
  <link name="big_drawer_0.421_0.692_0.999_1_drawer_0_0">
    <inertial>
      <origin xyz="0.0 0.0 0.0" rpy="0.0 -0.0 0.0" />
      <mass value="0.10000000000000002" />
      <inertia ixx="1.0" ixy="0.0" ixz="0.0" iyy="1.0" iyz="0.0" izz="1.0" />
    </inertial>
    <visual><geometry><mesh filename="second_floor_kitchen_pipleine/big_drawer_0.421_0.692_0.999_1.obj" /></geometry><material name="big_drawer_0.421_0.692_0.999_1_drawer_0_0_material"><color rgba="0.8 0.8 0.8 1.0" /></material></visual><collision><geometry><box size="0.688000 0.991200 0.417000" /></geometry><origin xyz="0.000000 0.365500 0.000000" rpy="0 0 0" /></collision></link>
  <link name="counter_0">
    <inertial>
      <origin xyz="0.0 0.0 0.0" rpy="0.0 -0.0 0.0" />
      <mass value="0.6762344636250001" />
      <inertia ixx="1.0" ixy="0.0" ixz="0.0" iyy="1.0" iyz="0.0" izz="1.0" />
    </inertial>
    <visual name="counter_0_geometry_0">
      <geometry>
        <box size="9.995 1.04895 0.0645" />
      </geometry>
      <origin xyz="0.0 0.0 0.0" rpy="0.0 -0.0 0.0" />
      <material name="counter_0_geometry_0_main_color">
        <color rgba="0.4 0.4 0.4 1.0" />
      </material>
    </visual>
    <collision name="counter_0_geometry_0">
      <geometry>
        <box size="9.995 1.04895 0.0645" />
      </geometry>
      <origin xyz="0.0 0.0 0.0" rpy="0.0 -0.0 0.0" />
    </collision>
  </link>
  <link name="counter_1">
    <inertial>
      <origin xyz="0.0 0.0 0.0" rpy="0.0 -0.0 0.0" />
      <mass value="0.16122728632500002" />
      <inertia ixx="1.0" ixy="0.0" ixz="0.0" iyy="1.0" iyz="0.0" izz="1.0" />
    </inertial>
    <visual name="counter_1_geometry_0">
      <geometry>
        <box size="2.383 1.04895 0.0645" />
      </geometry>
      <origin xyz="0.0 0.0 0.0" rpy="0.0 -0.0 0.0" />
      <material name="counter_1_geometry_0_main_color">
        <color rgba="0.4 0.4 0.4 1.0" />
      </material>
    </visual>
    <collision name="counter_1_geometry_0">
      <geometry>
        <box size="2.383 1.04895 0.0645" />
      </geometry>
      <origin xyz="0.0 0.0 0.0" rpy="0.0 -0.0 0.0" />
    </collision>
  </link>
  <link name="microwave_corpus">
    <inertial>
      <origin xyz="0.0 0.0 0.0" rpy="0.0 -0.0 0.0" />
      <mass value="0.12683909919999997" />
      <inertia ixx="1.0" ixy="0.0" ixz="0.0" iyy="1.0" iyz="0.0" izz="1.0" />
    </inertial>
    <visual name="microwave_back">
      <geometry>
        <box size="0.9687999999999999 0.04 0.6083" />
      </geometry>
      <origin xyz="0.0 0.32964999999999994 0.30415" rpy="0.0 -0.0 0.0" />
      <material name="microwave_back_main_color">
        <color rgba="0.4 0.4 0.4 1.0" />
      </material>
    </visual>
    <visual name="microwave_bottom">
      <geometry>
        <box size="0.8087999999999999 0.6193 0.04" />
      </geometry>
      <origin xyz="-0.039999999999999994 0.0 0.02" rpy="0.0 -0.0 0.0" />
      <material name="microwave_bottom_main_color">
        <color rgba="0.4 0.4 0.4 1.0" />
      </material>
    </visual>
    <visual name="microwave_left">
      <geometry>
        <box size="0.04 0.6193 0.5682999999999999" />
      </geometry>
      <origin xyz="-0.4643999999999999 0.0 0.28414999999999996" rpy="0.0 -0.0 0.0" />
      <material name="microwave_left_main_color">
        <color rgba="0.4 0.4 0.4 1.0" />
      </material>
    </visual>
    <visual name="microwave_right">
      <geometry>
        <box size="0.12 0.6592999999999999 0.6083" />
      </geometry>
      <origin xyz="0.42439999999999994 -0.02 0.30415" rpy="0.0 -0.0 0.0" />
      <material name="microwave_right_main_color">
        <color rgba="0.4 0.4 0.4 1.0" />
      </material>
    </visual>
    <visual name="microwave_top">
      <geometry>
        <box size="0.8487999999999999 0.6193 0.04" />
      </geometry>
      <origin xyz="-0.06 0.0 0.5882999999999999" rpy="0.0 -0.0 0.0" />
      <material name="microwave_top_main_color">
        <color rgba="0.4 0.4 0.4 1.0" />
      </material>
    </visual>
    <collision name="microwave_back">
      <geometry>
        <box size="0.9687999999999999 0.04 0.6083" />
      </geometry>
      <origin xyz="0.0 0.32964999999999994 0.30415" rpy="0.0 -0.0 0.0" />
    </collision>
    <collision name="microwave_bottom">
      <geometry>
        <box size="0.8087999999999999 0.6193 0.04" />
      </geometry>
      <origin xyz="-0.039999999999999994 0.0 0.02" rpy="0.0 -0.0 0.0" />
    </collision>
    <collision name="microwave_left">
      <geometry>
        <box size="0.04 0.6193 0.5682999999999999" />
      </geometry>
      <origin xyz="-0.4643999999999999 0.0 0.28414999999999996" rpy="0.0 -0.0 0.0" />
    </collision>
    <collision name="microwave_right">
      <geometry>
        <box size="0.12 0.6592999999999999 0.6083" />
      </geometry>
      <origin xyz="0.42439999999999994 -0.02 0.30415" rpy="0.0 -0.0 0.0" />
    </collision>
    <collision name="microwave_top">
      <geometry>
        <box size="0.8487999999999999 0.6193 0.04" />
      </geometry>
      <origin xyz="-0.06 0.0 0.5882999999999999" rpy="0.0 -0.0 0.0" />
    </collision>
  </link>
  <link name="microwave_door">
    <inertial>
      <origin xyz="5.3743461621981117e-20 0.00034199316967497087 1.7726385475423993e-13" rpy="0.0 -0.0 0.0" />
      <mass value="0.021014226269039163" />
      <inertia ixx="1.0" ixy="0.0" ixz="0.0" iyy="1.0" iyz="0.0" izz="1.0" />
    </inertial>
    <visual name="microwave_door_handle">
      <geometry>
        <mesh filename="microwave_door_handle.obj" />
      </geometry>
      <origin xyz="0.7987999999999998 -0.11000000000000001 0.30415" rpy="-0.0 1.5707963267948966 0.0" />
      <material name="microwave_door_handle_main_color">
        <color rgba="0.4 0.4 0.4 1.0" />
      </material>
    </visual>
    <visual name="microwave_door_panel">
      <geometry>
        <box size="0.8487999999999999 0.04 0.6083" />
      </geometry>
      <origin xyz="0.42439999999999994 -0.02 0.30415" rpy="0.0 -0.0 0.0" />
      <material name="microwave_door_panel_main_color">
        <color rgba="0.4 0.4 0.4 1.0" />
      </material>
    </visual>
    <collision name="microwave_door_handle">
      <geometry>
        <mesh filename="microwave_door_handle.obj" />
      </geometry>
      <origin xyz="0.7987999999999998 -0.11000000000000001 0.30415" rpy="-0.0 1.5707963267948966 0.0" />
    </collision>
    <collision name="microwave_door_panel">
      <geometry>
        <box size="0.8487999999999999 0.04 0.6083" />
      </geometry>
      <origin xyz="0.42439999999999994 -0.02 0.30415" rpy="0.0 -0.0 0.0" />
    </collision>
  </link>
  <link name="refrigerator_corpus">
    <inertial>
      <origin xyz="0.0 0.0 0.0" rpy="0.0 -0.0 0.0" />
      <mass value="0.8318361599999999" />
      <inertia ixx="1.0" ixy="0.0" ixz="0.0" iyy="1.0" iyz="0.0" izz="1.0" />
    </inertial>
    <visual name="refrigerator_back">
      <geometry>
        <box size="1.384 0.07 2.58" />
      </geometry>
      <origin xyz="0.0 0.4645 1.29" rpy="0.0 -0.0 0.0" />
      <material name="refrigerator_back_main_color">
        <color rgba="0.4 0.4 0.4 1.0" />
      </material>
    </visual>
    <visual name="refrigerator_bottom">
      <geometry>
        <box size="1.2439999999999998 0.859 0.07" />
      </geometry>
      <origin xyz="0.0 0.0 0.035" rpy="0.0 -0.0 0.0" />
      <material name="refrigerator_bottom_main_color">
        <color rgba="0.4 0.4 0.4 1.0" />
      </material>
    </visual>
    <visual name="refrigerator_freezer_separator">
      <geometry>
        <box size="1.2439999999999998 0.859 0.07" />
      </geometry>
      <origin xyz="0.0 0.0 2.09" rpy="0.0 -0.0 0.0" />
      <material name="refrigerator_freezer_separator_main_color">
        <color rgba="0.4 0.4 0.4 1.0" />
      </material>
    </visual>
    <visual name="refrigerator_left">
      <geometry>
        <box size="0.07 0.859 2.5100000000000002" />
      </geometry>
      <origin xyz="-0.6569999999999999 0.0 1.2550000000000001" rpy="0.0 -0.0 0.0" />
      <material name="refrigerator_left_main_color">
        <color rgba="0.4 0.4 0.4 1.0" />
      </material>
    </visual>
    <visual name="refrigerator_right">
      <geometry>
        <box size="0.07 0.859 2.5100000000000002" />
      </geometry>
      <origin xyz="0.6569999999999999 0.0 1.2550000000000001" rpy="0.0 -0.0 0.0" />
      <material name="refrigerator_right_main_color">
        <color rgba="0.4 0.4 0.4 1.0" />
      </material>
    </visual>
    <visual name="refrigerator_shelf_0">
      <geometry>
        <box size="1.2439999999999998 0.759 0.01" />
      </geometry>
      <origin xyz="0.0 0.05 0.45299999999999996" rpy="0.0 -0.0 0.0" />
      <material name="refrigerator_shelf_0_main_color">
        <color rgba="0.4 0.4 0.4 1.0" />
      </material>
    </visual>
    <visual name="refrigerator_shelf_1">
      <geometry>
        <box size="1.2439999999999998 0.759 0.01" />
      </geometry>
      <origin xyz="0.0 0.05 0.871" rpy="0.0 -0.0 0.0" />
      <material name="refrigerator_shelf_1_main_color">
        <color rgba="0.4 0.4 0.4 1.0" />
      </material>
    </visual>
    <visual name="refrigerator_shelf_2">
      <geometry>
        <box size="1.2439999999999998 0.759 0.01" />
      </geometry>
      <origin xyz="0.0 0.05 1.289" rpy="0.0 -0.0 0.0" />
      <material name="refrigerator_shelf_2_main_color">
        <color rgba="0.4 0.4 0.4 1.0" />
      </material>
    </visual>
    <visual name="refrigerator_shelf_3">
      <geometry>
        <box size="1.2439999999999998 0.759 0.01" />
      </geometry>
      <origin xyz="0.0 0.05 1.7069999999999999" rpy="0.0 -0.0 0.0" />
      <material name="refrigerator_shelf_3_main_color">
        <color rgba="0.4 0.4 0.4 1.0" />
      </material>
    </visual>
    <visual name="refrigerator_shelf_4">
      <geometry>
        <box size="1.2439999999999998 0.759 0.01" />
      </geometry>
      <origin xyz="0.0 0.05 0.07500000000000001" rpy="0.0 -0.0 0.0" />
      <material name="refrigerator_shelf_4_main_color">
        <color rgba="0.4 0.4 0.4 1.0" />
      </material>
    </visual>
    <visual name="refrigerator_top">
      <geometry>
        <box size="1.384 0.859 0.07" />
      </geometry>
      <origin xyz="0.0 0.0 2.545" rpy="0.0 -0.0 0.0" />
      <material name="refrigerator_top_main_color">
        <color rgba="0.4 0.4 0.4 1.0" />
      </material>
    </visual>
    <collision name="refrigerator_back">
      <geometry>
        <box size="1.384 0.07 2.58" />
      </geometry>
      <origin xyz="0.0 0.4645 1.29" rpy="0.0 -0.0 0.0" />
    </collision>
    <collision name="refrigerator_bottom">
      <geometry>
        <box size="1.2439999999999998 0.859 0.07" />
      </geometry>
      <origin xyz="0.0 0.0 0.035" rpy="0.0 -0.0 0.0" />
    </collision>
    <collision name="refrigerator_freezer_separator">
      <geometry>
        <box size="1.2439999999999998 0.859 0.07" />
      </geometry>
      <origin xyz="0.0 0.0 2.09" rpy="0.0 -0.0 0.0" />
    </collision>
    <collision name="refrigerator_left">
      <geometry>
        <box size="0.07 0.859 2.5100000000000002" />
      </geometry>
      <origin xyz="-0.6569999999999999 0.0 1.2550000000000001" rpy="0.0 -0.0 0.0" />
    </collision>
    <collision name="refrigerator_right">
      <geometry>
        <box size="0.07 0.859 2.5100000000000002" />
      </geometry>
      <origin xyz="0.6569999999999999 0.0 1.2550000000000001" rpy="0.0 -0.0 0.0" />
    </collision>
    <collision name="refrigerator_shelf_0">
      <geometry>
        <box size="1.2439999999999998 0.759 0.01" />
      </geometry>
      <origin xyz="0.0 0.05 0.45299999999999996" rpy="0.0 -0.0 0.0" />
    </collision>
    <collision name="refrigerator_shelf_1">
      <geometry>
        <box size="1.2439999999999998 0.759 0.01" />
      </geometry>
      <origin xyz="0.0 0.05 0.871" rpy="0.0 -0.0 0.0" />
    </collision>
    <collision name="refrigerator_shelf_2">
      <geometry>
        <box size="1.2439999999999998 0.759 0.01" />
      </geometry>
      <origin xyz="0.0 0.05 1.289" rpy="0.0 -0.0 0.0" />
    </collision>
    <collision name="refrigerator_shelf_3">
      <geometry>
        <box size="1.2439999999999998 0.759 0.01" />
      </geometry>
      <origin xyz="0.0 0.05 1.7069999999999999" rpy="0.0 -0.0 0.0" />
    </collision>
    <collision name="refrigerator_shelf_4">
      <geometry>
        <box size="1.2439999999999998 0.759 0.01" />
      </geometry>
      <origin xyz="0.0 0.05 0.07500000000000001" rpy="0.0 -0.0 0.0" />
    </collision>
    <collision name="refrigerator_top">
      <geometry>
        <box size="1.384 0.859 0.07" />
      </geometry>
      <origin xyz="0.0 0.0 2.545" rpy="0.0 -0.0 0.0" />
    </collision>
  </link>
  <link name="refrigerator_door">
    <inertial>
      <origin xyz="6.95344354548505e-18 0.038057524859551994 0.9997838924254445" rpy="0.0 -0.0 0.0" />
      <mass value="0.16623671726463055" />
      <inertia ixx="1.0" ixy="0.0" ixz="0.0" iyy="1.0" iyz="0.0" izz="1.0" />
    </inertial>
    <visual name="refrigerator_door_handle">
      <geometry>
        <mesh filename="refrigerator_door_handle.obj" />
      </geometry>
      <origin xyz="-1.319 -0.09000000000000001 1.89" rpy="-0.0 1.5707963267948966 0.0" />
      <material name="refrigerator_door_handle_main_color">
        <color rgba="0.4 0.4 0.4 1.0" />
      </material>
    </visual>
    <visual name="refrigerator_door_holder_0_0">
      <geometry>
        <box size="1.2439999999999998 0.01 0.01" />
      </geometry>
      <origin xyz="-0.692 0.085 0.14" rpy="0.0 -0.0 0.0" />
      <material name="refrigerator_door_holder_0_0_main_color">
        <color rgba="0.4 0.4 0.4 1.0" />
      </material>
    </visual>
    <visual name="refrigerator_door_holder_0_1">
      <geometry>
        <box size="1.2439999999999998 0.01 0.01" />
      </geometry>
      <origin xyz="-0.692 0.085 0.825" rpy="0.0 -0.0 0.0" />
      <material name="refrigerator_door_holder_0_1_main_color">
        <color rgba="0.4 0.4 0.4 1.0" />
      </material>
    </visual>
    <visual name="refrigerator_door_holder_0_2">
      <geometry>
        <box size="1.2439999999999998 0.01 0.01" />
      </geometry>
      <origin xyz="-0.692 0.085 1.51" rpy="0.0 -0.0 0.0" />
      <material name="refrigerator_door_holder_0_2_main_color">
        <color rgba="0.4 0.4 0.4 1.0" />
      </material>
    </visual>
    <visual name="refrigerator_door_holder_1_0">
      <geometry>
        <box size="0.01 0.1 0.01" />
      </geometry>
      <origin xyz="-1.3139999999999998 0.035 0.14" rpy="0.0 -0.0 0.0" />
      <material name="refrigerator_door_holder_1_0_main_color">
        <color rgba="0.4 0.4 0.4 1.0" />
      </material>
    </visual>
    <visual name="refrigerator_door_holder_1_1">
      <geometry>
        <box size="0.01 0.1 0.01" />
      </geometry>
      <origin xyz="-1.3139999999999998 0.035 0.825" rpy="0.0 -0.0 0.0" />
      <material name="refrigerator_door_holder_1_1_main_color">
        <color rgba="0.4 0.4 0.4 1.0" />
      </material>
    </visual>
    <visual name="refrigerator_door_holder_1_2">
      <geometry>
        <box size="0.01 0.1 0.01" />
      </geometry>
      <origin xyz="-1.3139999999999998 0.035 1.51" rpy="0.0 -0.0 0.0" />
      <material name="refrigerator_door_holder_1_2_main_color">
        <color rgba="0.4 0.4 0.4 1.0" />
      </material>
    </visual>
    <visual name="refrigerator_door_holder_2_0">
      <geometry>
        <box size="0.01 0.1 0.01" />
      </geometry>
      <origin xyz="-0.07 0.035 0.14" rpy="0.0 -0.0 0.0" />
      <material name="refrigerator_door_holder_2_0_main_color">
        <color rgba="0.4 0.4 0.4 1.0" />
      </material>
    </visual>
    <visual name="refrigerator_door_holder_2_1">
      <geometry>
        <box size="0.01 0.1 0.01" />
      </geometry>
      <origin xyz="-0.07 0.035 0.825" rpy="0.0 -0.0 0.0" />
      <material name="refrigerator_door_holder_2_1_main_color">
        <color rgba="0.4 0.4 0.4 1.0" />
      </material>
    </visual>
    <visual name="refrigerator_door_holder_2_2">
      <geometry>
        <box size="0.01 0.1 0.01" />
      </geometry>
      <origin xyz="-0.07 0.035 1.51" rpy="0.0 -0.0 0.0" />
      <material name="refrigerator_door_holder_2_2_main_color">
        <color rgba="0.4 0.4 0.4 1.0" />
      </material>
    </visual>
    <visual name="refrigerator_door_panel">
      <geometry>
        <mesh filename="refrigerator_door_panel.obj" />
      </geometry>
      <origin xyz="-0.692 -0.07 0.0175" rpy="0.0 -0.0 0.0" />
      <material name="refrigerator_door_panel_main_color">
        <color rgba="0.4 0.4 0.4 1.0" />
      </material>
    </visual>
    <visual name="refrigerator_door_shelf_0">
      <geometry>
        <box size="1.2439999999999998 0.1 0.01" />
      </geometry>
      <origin xyz="-0.692 0.035 0.08" rpy="0.0 -0.0 0.0" />
      <material name="refrigerator_door_shelf_0_main_color">
        <color rgba="0.4 0.4 0.4 1.0" />
      </material>
    </visual>
    <visual name="refrigerator_door_shelf_1">
      <geometry>
        <box size="1.2439999999999998 0.1 0.01" />
      </geometry>
      <origin xyz="-0.692 0.035 0.7649999999999999" rpy="0.0 -0.0 0.0" />
      <material name="refrigerator_door_shelf_1_main_color">
        <color rgba="0.4 0.4 0.4 1.0" />
      </material>
    </visual>
    <visual name="refrigerator_door_shelf_2">
      <geometry>
        <box size="1.2439999999999998 0.1 0.01" />
      </geometry>
      <origin xyz="-0.692 0.035 1.45" rpy="0.0 -0.0 0.0" />
      <material name="refrigerator_door_shelf_2_main_color">
        <color rgba="0.4 0.4 0.4 1.0" />
      </material>
    </visual>
    <collision name="refrigerator_door_handle">
      <geometry>
        <mesh filename="refrigerator_door_handle.obj" />
      </geometry>
      <origin xyz="-1.319 -0.09000000000000001 1.89" rpy="-0.0 1.5707963267948966 0.0" />
    </collision>
    <collision name="refrigerator_door_holder_0_0">
      <geometry>
        <box size="1.2439999999999998 0.01 0.01" />
      </geometry>
      <origin xyz="-0.692 0.085 0.14" rpy="0.0 -0.0 0.0" />
    </collision>
    <collision name="refrigerator_door_holder_0_1">
      <geometry>
        <box size="1.2439999999999998 0.01 0.01" />
      </geometry>
      <origin xyz="-0.692 0.085 0.825" rpy="0.0 -0.0 0.0" />
    </collision>
    <collision name="refrigerator_door_holder_0_2">
      <geometry>
        <box size="1.2439999999999998 0.01 0.01" />
      </geometry>
      <origin xyz="-0.692 0.085 1.51" rpy="0.0 -0.0 0.0" />
    </collision>
    <collision name="refrigerator_door_holder_1_0">
      <geometry>
        <box size="0.01 0.1 0.01" />
      </geometry>
      <origin xyz="-1.3139999999999998 0.035 0.14" rpy="0.0 -0.0 0.0" />
    </collision>
    <collision name="refrigerator_door_holder_1_1">
      <geometry>
        <box size="0.01 0.1 0.01" />
      </geometry>
      <origin xyz="-1.3139999999999998 0.035 0.825" rpy="0.0 -0.0 0.0" />
    </collision>
    <collision name="refrigerator_door_holder_1_2">
      <geometry>
        <box size="0.01 0.1 0.01" />
      </geometry>
      <origin xyz="-1.3139999999999998 0.035 1.51" rpy="0.0 -0.0 0.0" />
    </collision>
    <collision name="refrigerator_door_holder_2_0">
      <geometry>
        <box size="0.01 0.1 0.01" />
      </geometry>
      <origin xyz="-0.07 0.035 0.14" rpy="0.0 -0.0 0.0" />
    </collision>
    <collision name="refrigerator_door_holder_2_1">
      <geometry>
        <box size="0.01 0.1 0.01" />
      </geometry>
      <origin xyz="-0.07 0.035 0.825" rpy="0.0 -0.0 0.0" />
    </collision>
    <collision name="refrigerator_door_holder_2_2">
      <geometry>
        <box size="0.01 0.1 0.01" />
      </geometry>
      <origin xyz="-0.07 0.035 1.51" rpy="0.0 -0.0 0.0" />
    </collision>
    <collision name="refrigerator_door_panel">
      <geometry>
        <mesh filename="refrigerator_door_panel.obj" />
      </geometry>
      <origin xyz="-0.692 -0.07 0.0175" rpy="0.0 -0.0 0.0" />
    </collision>
    <collision name="refrigerator_door_shelf_0">
      <geometry>
        <box size="1.2439999999999998 0.1 0.01" />
      </geometry>
      <origin xyz="-0.692 0.035 0.08" rpy="0.0 -0.0 0.0" />
    </collision>
    <collision name="refrigerator_door_shelf_1">
      <geometry>
        <box size="1.2439999999999998 0.1 0.01" />
      </geometry>
      <origin xyz="-0.692 0.035 0.7649999999999999" rpy="0.0 -0.0 0.0" />
    </collision>
    <collision name="refrigerator_door_shelf_2">
      <geometry>
        <box size="1.2439999999999998 0.1 0.01" />
      </geometry>
      <origin xyz="-0.692 0.035 1.45" rpy="0.0 -0.0 0.0" />
    </collision>
  </link>
  <link name="refrigerator_freezer_door">
    <inertial>
      <origin xyz="-1.505426405397251e-20 0.03884482292812868 0.23424134216084752" rpy="0.0 -0.0 0.0" />
      <mass value="0.03751021169007974" />
      <inertia ixx="1.0" ixy="0.0" ixz="0.0" iyy="1.0" iyz="0.0" izz="1.0" />
    </inertial>
    <visual name="refrigerator_freezer_door_handle">
      <geometry>
        <mesh filename="refrigerator_freezer_door_handle.obj" />
      </geometry>
      <origin xyz="-1.319 -0.09000000000000001 2.2899999999999996" rpy="-0.0 1.5707963267948966 0.0" />
      <material name="refrigerator_freezer_door_handle_main_color">
        <color rgba="0.4 0.4 0.4 1.0" />
      </material>
    </visual>
    <visual name="refrigerator_freezer_door_panel">
      <geometry>
        <mesh filename="refrigerator_freezer_door_panel.obj" />
      </geometry>
      <origin xyz="-0.692 -0.07 2.1075" rpy="0.0 -0.0 0.0" />
      <material name="refrigerator_freezer_door_panel_main_color">
        <color rgba="0.4 0.4 0.4 1.0" />
      </material>
    </visual>
    <collision name="refrigerator_freezer_door_handle">
      <geometry>
        <mesh filename="refrigerator_freezer_door_handle.obj" />
      </geometry>
      <origin xyz="-1.319 -0.09000000000000001 2.2899999999999996" rpy="-0.0 1.5707963267948966 0.0" />
    </collision>
    <collision name="refrigerator_freezer_door_panel">
      <geometry>
        <mesh filename="refrigerator_freezer_door_panel.obj" />
      </geometry>
      <origin xyz="-0.692 -0.07 2.1075" rpy="0.0 -0.0 0.0" />
    </collision>
  </link>
  <link name="world" />
  <link name="drawer_0.251_0.692_0.999_0" />
  <link name="drawer_0.251_0.692_0.999_1" />
  <link name="drawer_0.251_0.692_0.999_2" />
  <link name="drawer_0.251_0.692_0.999_3" />
  <link name="long_drawer" />
  <link name="drawer_0.251_0.692_0.999_4" />
  <link name="drawer_0.251_0.692_0.999_5" />
  <link name="drawer_0.251_0.692_0.999_6" />
  <link name="drawer_0.251_0.692_0.999_7" />
  <link name="drawer_0.251_0.692_0.999_8" />
  <link name="drawer_0.251_0.692_0.999_9" />
  <link name="drawer_0.251_0.692_0.999_10" />
  <link name="lower_right_cabinet_1.039_0.692_0.999_0" />
  <link name="lower_left_cabinet_1.29_0.692_0.4995_0" />
  <link name="lower_right_cabinet_1.039_0.692_0.999_1" />
  <link name="lower_left_cabinet_1.29_0.692_0.4995_1" />
  <link name="lower_right_cabinet_1.039_0.692_0.999_5" />
  <link name="lower_left_cabinet_1.29_0.692_0.4995_5" />
  <link name="lower_right_cabinet_1.039_0.692_0.999_2" />
  <link name="lower_left_cabinet_1.29_0.692_0.4995_2" />
  <link name="lower_right_cabinet_1.039_0.692_0.999_3" />
  <link name="lower_left_cabinet_1.29_0.692_0.4995_3" />
  <link name="lower_right_cabinet_1.039_0.692_0.999_4" />
  <link name="lower_left_cabinet_1.29_0.692_0.4995_4" />
  <link name="lower_left_cabinet_1.29_0.692_0.4995_6" />
  <link name="upper_right_cabinet_1.29_0.692_0.4995_0" />
  <link name="upper_right_cabinet_1.29_0.692_0.4995_1" />
  <link name="upper_left_cabinet_1.29_0.692_0.4995_0" />
  <link name="upper_right_cabinet_1.29_0.692_0.4995_2" />
  <link name="upper_left_cabinet_1.29_0.692_0.4995_1" />
  <link name="upper_right_cabinet_1.29_0.692_0.4995_3" />
  <link name="upper_left_cabinet_1.29_0.692_0.4995_2" />
  <link name="big_upper_cabinet_1.29_0.692_0.4995_3" />
  <link name="big_drawer_0.421_0.692_0.999_0" />
  <link name="big_drawer_0.421_0.692_0.999_1" />
  <link name="microwave" />
  <link name="refrigerator" />
  <joint name="drawer_0.251_0.692_0.999_0_world_fixed_joint" type="fixed">
    <parent link="world" />
    <child link="drawer_0.251_0.692_0.999_0" />
    <origin xyz="0.0 0.0 0.0" rpy="0.0 -0.0 0.0" />
  </joint>
  <joint name="drawer_0.251_0.692_0.999_0_corpus_to_drawer_0_0" type="prismatic">
    <parent link="drawer_0.251_0.692_0.999_0_corpus" />
    <child link="drawer_0.251_0.692_0.999_0_drawer_0_0" />
    <origin xyz="0.0 -0.4795 0.1255" rpy="0.0 -0.0 0.0" />
    <axis xyz="0 -1 0" />
    <limit effort="1000.0" velocity="1.0" lower="0.0" upper="0.79299" />
  </joint>
  <joint name="drawer_0.251_0.692_0.999_0_origin_joint" type="fixed">
    <parent link="drawer_0.251_0.692_0.999_0" />
    <child link="drawer_0.251_0.692_0.999_0_corpus" />
    <origin xyz="0.0 0.0 0.0" rpy="0.0 -0.0 0.0" />
  </joint>
  <joint name="drawer_0.251_0.692_0.999_1_world_fixed_joint" type="fixed">
    <parent link="world" />
    <child link="drawer_0.251_0.692_0.999_1" />
    <origin xyz="0.692 0.0 0.0" rpy="0.0 -0.0 0.0" />
  </joint>
  <joint name="drawer_0.251_0.692_0.999_1_corpus_to_drawer_0_0" type="prismatic">
    <parent link="drawer_0.251_0.692_0.999_1_corpus" />
    <child link="drawer_0.251_0.692_0.999_1_drawer_0_0" />
    <origin xyz="0.0 -0.4795 0.1255" rpy="0.0 -0.0 0.0" />
    <axis xyz="0 -1 0" />
    <limit effort="1000.0" velocity="1.0" lower="0.0" upper="0.79299" />
  </joint>
  <joint name="drawer_0.251_0.692_0.999_1_origin_joint" type="fixed">
    <parent link="drawer_0.251_0.692_0.999_1" />
    <child link="drawer_0.251_0.692_0.999_1_corpus" />
    <origin xyz="0.0 0.0 0.0" rpy="0.0 -0.0 0.0" />
  </joint>
  <joint name="drawer_0.251_0.692_0.999_2_world_fixed_joint" type="fixed">
    <parent link="world" />
    <child link="drawer_0.251_0.692_0.999_2" />
    <origin xyz="1.5375 -0.8454999999999999 0.0" rpy="0.0 -0.0 -1.5707963267948966" />
  </joint>
  <joint name="drawer_0.251_0.692_0.999_2_corpus_to_drawer_0_0" type="prismatic">
    <parent link="drawer_0.251_0.692_0.999_2_corpus" />
    <child link="drawer_0.251_0.692_0.999_2_drawer_0_0" />
    <origin xyz="0.0 -0.4795 0.1255" rpy="0.0 -0.0 0.0" />
    <axis xyz="0 -1 0" />
    <limit effort="1000.0" velocity="1.0" lower="0.0" upper="0.79299" />
  </joint>
  <joint name="drawer_0.251_0.692_0.999_2_origin_joint" type="fixed">
    <parent link="drawer_0.251_0.692_0.999_2" />
    <child link="drawer_0.251_0.692_0.999_2_corpus" />
    <origin xyz="0.0 0.0 0.0" rpy="0.0 -0.0 0.0" />
  </joint>
  <joint name="drawer_0.251_0.692_0.999_3_world_fixed_joint" type="fixed">
    <parent link="world" />
    <child link="drawer_0.251_0.692_0.999_3" />
    <origin xyz="1.5374999999999999 -1.5375 0.0" rpy="0.0 -0.0 -1.5707963267948966" />
  </joint>
  <joint name="drawer_0.251_0.692_0.999_3_corpus_to_drawer_0_0" type="prismatic">
    <parent link="drawer_0.251_0.692_0.999_3_corpus" />
    <child link="drawer_0.251_0.692_0.999_3_drawer_0_0" />
    <origin xyz="0.0 -0.4795 0.1255" rpy="0.0 -0.0 0.0" />
    <axis xyz="0 -1 0" />
    <limit effort="1000.0" velocity="1.0" lower="0.0" upper="0.79299" />
  </joint>
  <joint name="drawer_0.251_0.692_0.999_3_origin_joint" type="fixed">
    <parent link="drawer_0.251_0.692_0.999_3" />
    <child link="drawer_0.251_0.692_0.999_3_corpus" />
    <origin xyz="0.0 0.0 0.0" rpy="0.0 -0.0 0.0" />
  </joint>
  <joint name="long_drawer_world_fixed_joint" type="fixed">
    <parent link="world" />
    <child link="long_drawer" />
    <origin xyz="1.5374999999999999 -2.5755 0.0" rpy="0.0 -0.0 -1.5707963267948966" />
  </joint>
  <joint name="long_drawer_corpus_to_drawer_0_0" type="prismatic">
    <parent link="long_drawer_corpus" />
    <child link="long_drawer_drawer_0_0" />
    <origin xyz="0.0 -0.4795 0.1255" rpy="0.0 -0.0 0.0" />
    <axis xyz="0 -1 0" />
    <limit effort="1000.0" velocity="1.0" lower="0.0" upper="0.79299" />
  </joint>
  <joint name="long_drawer_origin_joint" type="fixed">
    <parent link="long_drawer" />
    <child link="long_drawer_corpus" />
    <origin xyz="0.0 0.0 0.0" rpy="0.0 -0.0 0.0" />
  </joint>
  <joint name="drawer_0.251_0.692_0.999_4_world_fixed_joint" type="fixed">
    <parent link="world" />
    <child link="drawer_0.251_0.692_0.999_4" />
    <origin xyz="1.5374999999999999 -3.6135 0.0" rpy="0.0 -0.0 -1.5707963267948966" />
  </joint>
  <joint name="drawer_0.251_0.692_0.999_4_corpus_to_drawer_0_0" type="prismatic">
    <parent link="drawer_0.251_0.692_0.999_4_corpus" />
    <child link="drawer_0.251_0.692_0.999_4_drawer_0_0" />
    <origin xyz="0.0 -0.4795 0.1255" rpy="0.0 -0.0 0.0" />
    <axis xyz="0 -1 0" />
    <limit effort="1000.0" velocity="1.0" lower="0.0" upper="0.79299" />
  </joint>
  <joint name="drawer_0.251_0.692_0.999_4_origin_joint" type="fixed">
    <parent link="drawer_0.251_0.692_0.999_4" />
    <child link="drawer_0.251_0.692_0.999_4_corpus" />
    <origin xyz="0.0 0.0 0.0" rpy="0.0 -0.0 0.0" />
  </joint>
  <joint name="drawer_0.251_0.692_0.999_5_world_fixed_joint" type="fixed">
    <parent link="world" />
    <child link="drawer_0.251_0.692_0.999_5" />
    <origin xyz="1.5374999999999999 -4.3055 0.0" rpy="0.0 -0.0 -1.5707963267948966" />
  </joint>
  <joint name="drawer_0.251_0.692_0.999_5_corpus_to_drawer_0_0" type="prismatic">
    <parent link="drawer_0.251_0.692_0.999_5_corpus" />
    <child link="drawer_0.251_0.692_0.999_5_drawer_0_0" />
    <origin xyz="0.0 -0.4795 0.1255" rpy="0.0 -0.0 0.0" />
    <axis xyz="0 -1 0" />
    <limit effort="1000.0" velocity="1.0" lower="0.0" upper="0.79299" />
  </joint>
  <joint name="drawer_0.251_0.692_0.999_5_origin_joint" type="fixed">
    <parent link="drawer_0.251_0.692_0.999_5" />
    <child link="drawer_0.251_0.692_0.999_5_corpus" />
    <origin xyz="0.0 0.0 0.0" rpy="0.0 -0.0 0.0" />
  </joint>
  <joint name="drawer_0.251_0.692_0.999_6_world_fixed_joint" type="fixed">
    <parent link="world" />
    <child link="drawer_0.251_0.692_0.999_6" />
    <origin xyz="1.5374999999999999 -6.381500000000001 0.0" rpy="0.0 -0.0 -1.5707963267948966" />
  </joint>
  <joint name="drawer_0.251_0.692_0.999_6_corpus_to_drawer_0_0" type="prismatic">
    <parent link="drawer_0.251_0.692_0.999_6_corpus" />
    <child link="drawer_0.251_0.692_0.999_6_drawer_0_0" />
    <origin xyz="0.0 -0.4795 0.1255" rpy="0.0 -0.0 0.0" />
    <axis xyz="0 -1 0" />
    <limit effort="1000.0" velocity="1.0" lower="0.0" upper="0.79299" />
  </joint>
  <joint name="drawer_0.251_0.692_0.999_6_origin_joint" type="fixed">
    <parent link="drawer_0.251_0.692_0.999_6" />
    <child link="drawer_0.251_0.692_0.999_6_corpus" />
    <origin xyz="0.0 0.0 0.0" rpy="0.0 -0.0 0.0" />
  </joint>
  <joint name="drawer_0.251_0.692_0.999_7_world_fixed_joint" type="fixed">
    <parent link="world" />
    <child link="drawer_0.251_0.692_0.999_7" />
    <origin xyz="1.5374999999999999 -7.073500000000001 0.0" rpy="0.0 -0.0 -1.5707963267948966" />
  </joint>
  <joint name="drawer_0.251_0.692_0.999_7_corpus_to_drawer_0_0" type="prismatic">
    <parent link="drawer_0.251_0.692_0.999_7_corpus" />
    <child link="drawer_0.251_0.692_0.999_7_drawer_0_0" />
    <origin xyz="0.0 -0.4795 0.1255" rpy="0.0 -0.0 0.0" />
    <axis xyz="0 -1 0" />
    <limit effort="1000.0" velocity="1.0" lower="0.0" upper="0.79299" />
  </joint>
  <joint name="drawer_0.251_0.692_0.999_7_origin_joint" type="fixed">
    <parent link="drawer_0.251_0.692_0.999_7" />
    <child link="drawer_0.251_0.692_0.999_7_corpus" />
    <origin xyz="0.0 0.0 0.0" rpy="0.0 -0.0 0.0" />
  </joint>
  <joint name="drawer_0.251_0.692_0.999_8_world_fixed_joint" type="fixed">
    <parent link="world" />
    <child link="drawer_0.251_0.692_0.999_8" />
    <origin xyz="1.5374999999999999 -7.765500000000001 0.0" rpy="0.0 -0.0 -1.5707963267948966" />
  </joint>
  <joint name="drawer_0.251_0.692_0.999_8_corpus_to_drawer_0_0" type="prismatic">
    <parent link="drawer_0.251_0.692_0.999_8_corpus" />
    <child link="drawer_0.251_0.692_0.999_8_drawer_0_0" />
    <origin xyz="0.0 -0.4795 0.1255" rpy="0.0 -0.0 0.0" />
    <axis xyz="0 -1 0" />
    <limit effort="1000.0" velocity="1.0" lower="0.0" upper="0.79299" />
  </joint>
  <joint name="drawer_0.251_0.692_0.999_8_origin_joint" type="fixed">
    <parent link="drawer_0.251_0.692_0.999_8" />
    <child link="drawer_0.251_0.692_0.999_8_corpus" />
    <origin xyz="0.0 0.0 0.0" rpy="0.0 -0.0 0.0" />
  </joint>
  <joint name="drawer_0.251_0.692_0.999_9_world_fixed_joint" type="fixed">
    <parent link="world" />
    <child link="drawer_0.251_0.692_0.999_9" />
    <origin xyz="1.5374999999999999 -8.457500000000001 0.0" rpy="0.0 -0.0 -1.5707963267948966" />
  </joint>
  <joint name="drawer_0.251_0.692_0.999_9_corpus_to_drawer_0_0" type="prismatic">
    <parent link="drawer_0.251_0.692_0.999_9_corpus" />
    <child link="drawer_0.251_0.692_0.999_9_drawer_0_0" />
    <origin xyz="0.0 -0.4795 0.1255" rpy="0.0 -0.0 0.0" />
    <axis xyz="0 -1 0" />
    <limit effort="1000.0" velocity="1.0" lower="0.0" upper="0.79299" />
  </joint>
  <joint name="drawer_0.251_0.692_0.999_9_origin_joint" type="fixed">
    <parent link="drawer_0.251_0.692_0.999_9" />
    <child link="drawer_0.251_0.692_0.999_9_corpus" />
    <origin xyz="0.0 0.0 0.0" rpy="0.0 -0.0 0.0" />
  </joint>
  <joint name="drawer_0.251_0.692_0.999_10_world_fixed_joint" type="fixed">
    <parent link="world" />
    <child link="drawer_0.251_0.692_0.999_10" />
    <origin xyz="1.5374999999999999 -9.149500000000002 0.0" rpy="0.0 -0.0 -1.5707963267948966" />
  </joint>
  <joint name="drawer_0.251_0.692_0.999_10_corpus_to_drawer_0_0" type="prismatic">
    <parent link="drawer_0.251_0.692_0.999_10_corpus" />
    <child link="drawer_0.251_0.692_0.999_10_drawer_0_0" />
    <origin xyz="0.0 -0.4795 0.1255" rpy="0.0 -0.0 0.0" />
    <axis xyz="0 -1 0" />
    <limit effort="1000.0" velocity="1.0" lower="0.0" upper="0.79299" />
  </joint>
  <joint name="drawer_0.251_0.692_0.999_10_origin_joint" type="fixed">
    <parent link="drawer_0.251_0.692_0.999_10" />
    <child link="drawer_0.251_0.692_0.999_10_corpus" />
    <origin xyz="0.0 0.0 0.0" rpy="0.0 -0.0 0.0" />
  </joint>
  <joint name="lower_right_cabinet_1.039_0.692_0.999_0_world_fixed_joint" type="fixed">
    <parent link="world" />
    <child link="lower_right_cabinet_1.039_0.692_0.999_0" />
    <origin xyz="0.0 0.0 -1.039" rpy="0.0 -0.0 0.0" />
  </joint>
  <joint name="lower_right_cabinet_1.039_0.692_0.999_0_corpus_to_door_0_0" type="revolute">
    <parent link="lower_right_cabinet_1.039_0.692_0.999_0_corpus" />
    <child link="lower_right_cabinet_1.039_0.692_0.999_0_door_0_0" />
    <origin xyz="-0.344 -0.4995 0.5195" rpy="0.0 -0.0 0.0" />
    <axis xyz="0 0 -1" />
    <limit effort="1000.0" velocity="0.1" lower="0.0" upper="1.5707963267948966" />
  </joint>
  <joint name="lower_right_cabinet_1.039_0.692_0.999_0_origin_joint" type="fixed">
    <parent link="lower_right_cabinet_1.039_0.692_0.999_0" />
    <child link="lower_right_cabinet_1.039_0.692_0.999_0_corpus" />
    <origin xyz="0.0 0.0 0.0" rpy="0.0 -0.0 0.0" />
  </joint>
  <joint name="lower_left_cabinet_1.29_0.692_0.4995_0_world_fixed_joint" type="fixed">
    <parent link="world" />
    <child link="lower_left_cabinet_1.29_0.692_0.4995_0" />
    <origin xyz="0.692 0.0 -1.039" rpy="0.0 -0.0 0.0" />
  </joint>
  <joint name="lower_left_cabinet_1.29_0.692_0.4995_0_corpus_to_door_0_0" type="revolute">
    <parent link="lower_left_cabinet_1.29_0.692_0.4995_0_corpus" />
    <child link="lower_left_cabinet_1.29_0.692_0.4995_0_door_0_0" />
    <origin xyz="0.344 -0.4995 0.5195" rpy="0.0 -0.0 0.0" />
    <axis xyz="0 0 1" />
    <limit effort="1000.0" velocity="0.1" lower="0.0" upper="1.5707963267948966" />
  </joint>
  <joint name="lower_left_cabinet_1.29_0.692_0.4995_0_origin_joint" type="fixed">
    <parent link="lower_left_cabinet_1.29_0.692_0.4995_0" />
    <child link="lower_left_cabinet_1.29_0.692_0.4995_0_corpus" />
    <origin xyz="0.0 0.0 0.0" rpy="0.0 -0.0 0.0" />
  </joint>
  <joint name="lower_right_cabinet_1.039_0.692_0.999_1_world_fixed_joint" type="fixed">
    <parent link="world" />
    <child link="lower_right_cabinet_1.039_0.692_0.999_1" />
    <origin xyz="1.5374999999999999 -0.8454999999999999 -1.039" rpy="0.0 -0.0 -1.5707963267948966" />
  </joint>
  <joint name="lower_right_cabinet_1.039_0.692_0.999_1_corpus_to_door_0_0" type="revolute">
    <parent link="lower_right_cabinet_1.039_0.692_0.999_1_corpus" />
    <child link="lower_right_cabinet_1.039_0.692_0.999_1_door_0_0" />
    <origin xyz="-0.344 -0.4995 0.5195" rpy="0.0 -0.0 0.0" />
    <axis xyz="0 0 -1" />
    <limit effort="1000.0" velocity="0.1" lower="0.0" upper="1.5707963267948966" />
  </joint>
  <joint name="lower_right_cabinet_1.039_0.692_0.999_1_origin_joint" type="fixed">
    <parent link="lower_right_cabinet_1.039_0.692_0.999_1" />
    <child link="lower_right_cabinet_1.039_0.692_0.999_1_corpus" />
    <origin xyz="0.0 0.0 0.0" rpy="0.0 -0.0 0.0" />
  </joint>
  <joint name="lower_left_cabinet_1.29_0.692_0.4995_1_world_fixed_joint" type="fixed">
    <parent link="world" />
    <child link="lower_left_cabinet_1.29_0.692_0.4995_1" />
    <origin xyz="1.5374999999999999 -1.5375 -1.039" rpy="0.0 -0.0 -1.5707963267948966" />
  </joint>
  <joint name="lower_left_cabinet_1.29_0.692_0.4995_1_corpus_to_door_0_0" type="revolute">
    <parent link="lower_left_cabinet_1.29_0.692_0.4995_1_corpus" />
    <child link="lower_left_cabinet_1.29_0.692_0.4995_1_door_0_0" />
    <origin xyz="0.344 -0.4995 0.5195" rpy="0.0 -0.0 0.0" />
    <axis xyz="0 0 1" />
    <limit effort="1000.0" velocity="0.1" lower="0.0" upper="1.5707963267948966" />
  </joint>
  <joint name="lower_left_cabinet_1.29_0.692_0.4995_1_origin_joint" type="fixed">
    <parent link="lower_left_cabinet_1.29_0.692_0.4995_1" />
    <child link="lower_left_cabinet_1.29_0.692_0.4995_1_corpus" />
    <origin xyz="0.0 0.0 0.0" rpy="0.0 -0.0 0.0" />
  </joint>
  <joint name="lower_right_cabinet_1.039_0.692_0.999_5_world_fixed_joint" type="fixed">
    <parent link="world" />
    <child link="lower_right_cabinet_1.039_0.692_0.999_5" />
    <origin xyz="1.5374999999999999 -2.2295000000000003 -1.039" rpy="0.0 -0.0 -1.5707963267948966" />
  </joint>
  <joint name="lower_right_cabinet_1.039_0.692_0.999_5_corpus_to_door_0_0" type="revolute">
    <parent link="lower_right_cabinet_1.039_0.692_0.999_5_corpus" />
    <child link="lower_right_cabinet_1.039_0.692_0.999_5_door_0_0" />
    <origin xyz="-0.344 -0.4995 0.5195" rpy="0.0 -0.0 0.0" />
    <axis xyz="0 0 -1" />
    <limit effort="1000.0" velocity="0.1" lower="0.0" upper="1.5707963267948966" />
  </joint>
  <joint name="lower_right_cabinet_1.039_0.692_0.999_5_origin_joint" type="fixed">
    <parent link="lower_right_cabinet_1.039_0.692_0.999_5" />
    <child link="lower_right_cabinet_1.039_0.692_0.999_5_corpus" />
    <origin xyz="0.0 0.0 0.0" rpy="0.0 -0.0 0.0" />
  </joint>
  <joint name="lower_left_cabinet_1.29_0.692_0.4995_5_world_fixed_joint" type="fixed">
    <parent link="world" />
    <child link="lower_left_cabinet_1.29_0.692_0.4995_5" />
    <origin xyz="1.5374999999999999 -2.9215000000000004 -1.039" rpy="0.0 -0.0 -1.5707963267948966" />
  </joint>
  <joint name="lower_left_cabinet_1.29_0.692_0.4995_5_corpus_to_door_0_0" type="revolute">
    <parent link="lower_left_cabinet_1.29_0.692_0.4995_5_corpus" />
    <child link="lower_left_cabinet_1.29_0.692_0.4995_5_door_0_0" />
    <origin xyz="0.344 -0.4995 0.5195" rpy="0.0 -0.0 0.0" />
    <axis xyz="0 0 1" />
    <limit effort="1000.0" velocity="0.1" lower="0.0" upper="1.5707963267948966" />
  </joint>
  <joint name="lower_left_cabinet_1.29_0.692_0.4995_5_origin_joint" type="fixed">
    <parent link="lower_left_cabinet_1.29_0.692_0.4995_5" />
    <child link="lower_left_cabinet_1.29_0.692_0.4995_5_corpus" />
    <origin xyz="0.0 0.0 0.0" rpy="0.0 -0.0 0.0" />
  </joint>
  <joint name="lower_right_cabinet_1.039_0.692_0.999_2_world_fixed_joint" type="fixed">
    <parent link="world" />
    <child link="lower_right_cabinet_1.039_0.692_0.999_2" />
    <origin xyz="1.5374999999999999 -3.6135 -1.039" rpy="0.0 -0.0 -1.5707963267948966" />
  </joint>
  <joint name="lower_right_cabinet_1.039_0.692_0.999_2_corpus_to_door_0_0" type="revolute">
    <parent link="lower_right_cabinet_1.039_0.692_0.999_2_corpus" />
    <child link="lower_right_cabinet_1.039_0.692_0.999_2_door_0_0" />
    <origin xyz="-0.344 -0.4995 0.5195" rpy="0.0 -0.0 0.0" />
    <axis xyz="0 0 -1" />
    <limit effort="1000.0" velocity="0.1" lower="0.0" upper="1.5707963267948966" />
  </joint>
  <joint name="lower_right_cabinet_1.039_0.692_0.999_2_origin_joint" type="fixed">
    <parent link="lower_right_cabinet_1.039_0.692_0.999_2" />
    <child link="lower_right_cabinet_1.039_0.692_0.999_2_corpus" />
    <origin xyz="0.0 0.0 0.0" rpy="0.0 -0.0 0.0" />
  </joint>
  <joint name="lower_left_cabinet_1.29_0.692_0.4995_2_world_fixed_joint" type="fixed">
    <parent link="world" />
    <child link="lower_left_cabinet_1.29_0.692_0.4995_2" />
    <origin xyz="1.5374999999999999 -4.3055 -1.039" rpy="0.0 -0.0 -1.5707963267948966" />
  </joint>
  <joint name="lower_left_cabinet_1.29_0.692_0.4995_2_corpus_to_door_0_0" type="revolute">
    <parent link="lower_left_cabinet_1.29_0.692_0.4995_2_corpus" />
    <child link="lower_left_cabinet_1.29_0.692_0.4995_2_door_0_0" />
    <origin xyz="0.344 -0.4995 0.5195" rpy="0.0 -0.0 0.0" />
    <axis xyz="0 0 1" />
    <limit effort="1000.0" velocity="0.1" lower="0.0" upper="1.5707963267948966" />
  </joint>
  <joint name="lower_left_cabinet_1.29_0.692_0.4995_2_origin_joint" type="fixed">
    <parent link="lower_left_cabinet_1.29_0.692_0.4995_2" />
    <child link="lower_left_cabinet_1.29_0.692_0.4995_2_corpus" />
    <origin xyz="0.0 0.0 0.0" rpy="0.0 -0.0 0.0" />
  </joint>
  <joint name="lower_right_cabinet_1.039_0.692_0.999_3_world_fixed_joint" type="fixed">
    <parent link="world" />
    <child link="lower_right_cabinet_1.039_0.692_0.999_3" />
    <origin xyz="1.5374999999999999 -6.381500000000001 -1.039" rpy="0.0 -0.0 -1.5707963267948966" />
  </joint>
  <joint name="lower_right_cabinet_1.039_0.692_0.999_3_corpus_to_door_0_0" type="revolute">
    <parent link="lower_right_cabinet_1.039_0.692_0.999_3_corpus" />
    <child link="lower_right_cabinet_1.039_0.692_0.999_3_door_0_0" />
    <origin xyz="-0.344 -0.4995 0.5195" rpy="0.0 -0.0 0.0" />
    <axis xyz="0 0 -1" />
    <limit effort="1000.0" velocity="0.1" lower="0.0" upper="1.5707963267948966" />
  </joint>
  <joint name="lower_right_cabinet_1.039_0.692_0.999_3_origin_joint" type="fixed">
    <parent link="lower_right_cabinet_1.039_0.692_0.999_3" />
    <child link="lower_right_cabinet_1.039_0.692_0.999_3_corpus" />
    <origin xyz="0.0 0.0 0.0" rpy="0.0 -0.0 0.0" />
  </joint>
  <joint name="lower_left_cabinet_1.29_0.692_0.4995_3_world_fixed_joint" type="fixed">
    <parent link="world" />
    <child link="lower_left_cabinet_1.29_0.692_0.4995_3" />
    <origin xyz="1.5374999999999999 -7.073500000000001 -1.039" rpy="0.0 -0.0 -1.5707963267948966" />
  </joint>
  <joint name="lower_left_cabinet_1.29_0.692_0.4995_3_corpus_to_door_0_0" type="revolute">
    <parent link="lower_left_cabinet_1.29_0.692_0.4995_3_corpus" />
    <child link="lower_left_cabinet_1.29_0.692_0.4995_3_door_0_0" />
    <origin xyz="0.344 -0.4995 0.5195" rpy="0.0 -0.0 0.0" />
    <axis xyz="0 0 1" />
    <limit effort="1000.0" velocity="0.1" lower="0.0" upper="1.5707963267948966" />
  </joint>
  <joint name="lower_left_cabinet_1.29_0.692_0.4995_3_origin_joint" type="fixed">
    <parent link="lower_left_cabinet_1.29_0.692_0.4995_3" />
    <child link="lower_left_cabinet_1.29_0.692_0.4995_3_corpus" />
    <origin xyz="0.0 0.0 0.0" rpy="0.0 -0.0 0.0" />
  </joint>
  <joint name="lower_right_cabinet_1.039_0.692_0.999_4_world_fixed_joint" type="fixed">
    <parent link="world" />
    <child link="lower_right_cabinet_1.039_0.692_0.999_4" />
    <origin xyz="1.5374999999999999 -7.765500000000001 -1.039" rpy="0.0 -0.0 -1.5707963267948966" />
  </joint>
  <joint name="lower_right_cabinet_1.039_0.692_0.999_4_corpus_to_door_0_0" type="revolute">
    <parent link="lower_right_cabinet_1.039_0.692_0.999_4_corpus" />
    <child link="lower_right_cabinet_1.039_0.692_0.999_4_door_0_0" />
    <origin xyz="-0.344 -0.4995 0.5195" rpy="0.0 -0.0 0.0" />
    <axis xyz="0 0 -1" />
    <limit effort="1000.0" velocity="0.1" lower="0.0" upper="1.5707963267948966" />
  </joint>
  <joint name="lower_right_cabinet_1.039_0.692_0.999_4_origin_joint" type="fixed">
    <parent link="lower_right_cabinet_1.039_0.692_0.999_4" />
    <child link="lower_right_cabinet_1.039_0.692_0.999_4_corpus" />
    <origin xyz="0.0 0.0 0.0" rpy="0.0 -0.0 0.0" />
  </joint>
  <joint name="lower_left_cabinet_1.29_0.692_0.4995_4_world_fixed_joint" type="fixed">
    <parent link="world" />
    <child link="lower_left_cabinet_1.29_0.692_0.4995_4" />
    <origin xyz="1.5374999999999999 -8.457500000000001 -1.039" rpy="0.0 -0.0 -1.5707963267948966" />
  </joint>
  <joint name="lower_left_cabinet_1.29_0.692_0.4995_4_corpus_to_door_0_0" type="revolute">
    <parent link="lower_left_cabinet_1.29_0.692_0.4995_4_corpus" />
    <child link="lower_left_cabinet_1.29_0.692_0.4995_4_door_0_0" />
    <origin xyz="0.344 -0.4995 0.5195" rpy="0.0 -0.0 0.0" />
    <axis xyz="0 0 1" />
    <limit effort="1000.0" velocity="0.1" lower="0.0" upper="1.5707963267948966" />
  </joint>
  <joint name="lower_left_cabinet_1.29_0.692_0.4995_4_origin_joint" type="fixed">
    <parent link="lower_left_cabinet_1.29_0.692_0.4995_4" />
    <child link="lower_left_cabinet_1.29_0.692_0.4995_4_corpus" />
    <origin xyz="0.0 0.0 0.0" rpy="0.0 -0.0 0.0" />
  </joint>
  <joint name="lower_left_cabinet_1.29_0.692_0.4995_6_world_fixed_joint" type="fixed">
    <parent link="world" />
    <child link="lower_left_cabinet_1.29_0.692_0.4995_6" />
    <origin xyz="1.5374999999999999 -9.149500000000002 -1.039" rpy="0.0 -0.0 -1.5707963267948966" />
  </joint>
  <joint name="lower_left_cabinet_1.29_0.692_0.4995_6_corpus_to_door_0_0" type="revolute">
    <parent link="lower_left_cabinet_1.29_0.692_0.4995_6_corpus" />
    <child link="lower_left_cabinet_1.29_0.692_0.4995_6_door_0_0" />
    <origin xyz="0.344 -0.4995 0.5195" rpy="0.0 -0.0 0.0" />
    <axis xyz="0 0 1" />
    <limit effort="1000.0" velocity="0.1" lower="0.0" upper="1.5707963267948966" />
  </joint>
  <joint name="lower_left_cabinet_1.29_0.692_0.4995_6_origin_joint" type="fixed">
    <parent link="lower_left_cabinet_1.29_0.692_0.4995_6" />
    <child link="lower_left_cabinet_1.29_0.692_0.4995_6_corpus" />
    <origin xyz="0.0 0.0 0.0" rpy="0.0 -0.0 0.0" />
  </joint>
  <joint name="box_world_fixed_joint" type="fixed">
    <parent link="world" />
    <child link="box" />
    <origin xyz="1.562475 -9.995000000000001 -0.3939999999999999" rpy="0.0 -0.0 3.141592653589793" />
  </joint>
  <joint name="upper_right_cabinet_1.29_0.692_0.4995_0_world_fixed_joint" type="fixed">
    <parent link="world" />
    <child link="upper_right_cabinet_1.29_0.692_0.4995_0" />
    <origin xyz="1.6909999999999998 -10.24475 1.151" rpy="0.0 -0.0 3.141592653589793" />
  </joint>
  <joint name="upper_right_cabinet_1.29_0.692_0.4995_0_corpus_to_door_0_0" type="revolute">
    <parent link="upper_right_cabinet_1.29_0.692_0.4995_0_corpus" />
    <child link="upper_right_cabinet_1.29_0.692_0.4995_0_door_0_0" />
    <origin xyz="-0.345 -0.24975 0.645" rpy="0.0 -0.0 0.0" />
    <axis xyz="0 0 -1" />
    <limit effort="1000.0" velocity="0.1" lower="0.0" upper="1.5707963267948966" />
  </joint>
  <joint name="upper_right_cabinet_1.29_0.692_0.4995_0_origin_joint" type="fixed">
    <parent link="upper_right_cabinet_1.29_0.692_0.4995_0" />
    <child link="upper_right_cabinet_1.29_0.692_0.4995_0_corpus" />
    <origin xyz="0.0 0.0 0.0" rpy="0.0 -0.0 0.0" />
  </joint>
  <joint name="upper_right_cabinet_1.29_0.692_0.4995_1_world_fixed_joint" type="fixed">
    <parent link="world" />
    <child link="upper_right_cabinet_1.29_0.692_0.4995_1" />
    <origin xyz="0.9989999999999998 -10.24475 1.1509999999999998" rpy="0.0 -0.0 3.141592653589793" />
  </joint>
  <joint name="upper_right_cabinet_1.29_0.692_0.4995_1_corpus_to_door_0_0" type="revolute">
    <parent link="upper_right_cabinet_1.29_0.692_0.4995_1_corpus" />
    <child link="upper_right_cabinet_1.29_0.692_0.4995_1_door_0_0" />
    <origin xyz="-0.345 -0.24975 0.645" rpy="0.0 -0.0 0.0" />
    <axis xyz="0 0 -1" />
    <limit effort="1000.0" velocity="0.1" lower="0.0" upper="1.5707963267948966" />
  </joint>
  <joint name="upper_right_cabinet_1.29_0.692_0.4995_1_origin_joint" type="fixed">
    <parent link="upper_right_cabinet_1.29_0.692_0.4995_1" />
    <child link="upper_right_cabinet_1.29_0.692_0.4995_1_corpus" />
    <origin xyz="0.0 0.0 0.0" rpy="0.0 -0.0 0.0" />
  </joint>
  <joint name="upper_left_cabinet_1.29_0.692_0.4995_0_world_fixed_joint" type="fixed">
    <parent link="world" />
    <child link="upper_left_cabinet_1.29_0.692_0.4995_0" />
    <origin xyz="0.30699999999999983 -10.24475 1.1509999999999998" rpy="0.0 -0.0 3.141592653589793" />
  </joint>
  <joint name="upper_left_cabinet_1.29_0.692_0.4995_0_corpus_to_door_0_0" type="revolute">
    <parent link="upper_left_cabinet_1.29_0.692_0.4995_0_corpus" />
    <child link="upper_left_cabinet_1.29_0.692_0.4995_0_door_0_0" />
    <origin xyz="0.345 -0.24975 0.645" rpy="0.0 -0.0 0.0" />
    <axis xyz="0 0 1" />
    <limit effort="1000.0" velocity="0.1" lower="0.0" upper="1.5707963267948966" />
  </joint>
  <joint name="upper_left_cabinet_1.29_0.692_0.4995_0_origin_joint" type="fixed">
    <parent link="upper_left_cabinet_1.29_0.692_0.4995_0" />
    <child link="upper_left_cabinet_1.29_0.692_0.4995_0_corpus" />
    <origin xyz="0.0 0.0 0.0" rpy="0.0 -0.0 0.0" />
  </joint>
  <joint name="upper_right_cabinet_1.29_0.692_0.4995_2_world_fixed_joint" type="fixed">
    <parent link="world" />
    <child link="upper_right_cabinet_1.29_0.692_0.4995_2" />
    <origin xyz="-0.3850000000000001 -10.24475 1.1509999999999998" rpy="0.0 -0.0 3.141592653589793" />
  </joint>
  <joint name="upper_right_cabinet_1.29_0.692_0.4995_2_corpus_to_door_0_0" type="revolute">
    <parent link="upper_right_cabinet_1.29_0.692_0.4995_2_corpus" />
    <child link="upper_right_cabinet_1.29_0.692_0.4995_2_door_0_0" />
    <origin xyz="-0.345 -0.24975 0.645" rpy="0.0 -0.0 0.0" />
    <axis xyz="0 0 -1" />
    <limit effort="1000.0" velocity="0.1" lower="0.0" upper="1.5707963267948966" />
  </joint>
  <joint name="upper_right_cabinet_1.29_0.692_0.4995_2_origin_joint" type="fixed">
    <parent link="upper_right_cabinet_1.29_0.692_0.4995_2" />
    <child link="upper_right_cabinet_1.29_0.692_0.4995_2_corpus" />
    <origin xyz="0.0 0.0 0.0" rpy="0.0 -0.0 0.0" />
  </joint>
  <joint name="upper_left_cabinet_1.29_0.692_0.4995_1_world_fixed_joint" type="fixed">
    <parent link="world" />
    <child link="upper_left_cabinet_1.29_0.692_0.4995_1" />
    <origin xyz="-1.077 -10.24475 1.1509999999999998" rpy="0.0 -0.0 3.141592653589793" />
  </joint>
  <joint name="upper_left_cabinet_1.29_0.692_0.4995_1_corpus_to_door_0_0" type="revolute">
    <parent link="upper_left_cabinet_1.29_0.692_0.4995_1_corpus" />
    <child link="upper_left_cabinet_1.29_0.692_0.4995_1_door_0_0" />
    <origin xyz="0.345 -0.24975 0.645" rpy="0.0 -0.0 0.0" />
    <axis xyz="0 0 1" />
    <limit effort="1000.0" velocity="0.1" lower="0.0" upper="1.5707963267948966" />
  </joint>
  <joint name="upper_left_cabinet_1.29_0.692_0.4995_1_origin_joint" type="fixed">
    <parent link="upper_left_cabinet_1.29_0.692_0.4995_1" />
    <child link="upper_left_cabinet_1.29_0.692_0.4995_1_corpus" />
    <origin xyz="0.0 0.0 0.0" rpy="0.0 -0.0 0.0" />
  </joint>
  <joint name="upper_right_cabinet_1.29_0.692_0.4995_3_world_fixed_joint" type="fixed">
    <parent link="world" />
    <child link="upper_right_cabinet_1.29_0.692_0.4995_3" />
    <origin xyz="0.0 0.24975 1.151" rpy="0.0 -0.0 0.0" />
  </joint>
  <joint name="upper_right_cabinet_1.29_0.692_0.4995_3_corpus_to_door_0_0" type="revolute">
    <parent link="upper_right_cabinet_1.29_0.692_0.4995_3_corpus" />
    <child link="upper_right_cabinet_1.29_0.692_0.4995_3_door_0_0" />
    <origin xyz="-0.345 -0.24975 0.645" rpy="0.0 -0.0 0.0" />
    <axis xyz="0 0 -1" />
    <limit effort="1000.0" velocity="0.1" lower="0.0" upper="1.5707963267948966" />
  </joint>
  <joint name="upper_right_cabinet_1.29_0.692_0.4995_3_origin_joint" type="fixed">
    <parent link="upper_right_cabinet_1.29_0.692_0.4995_3" />
    <child link="upper_right_cabinet_1.29_0.692_0.4995_3_corpus" />
    <origin xyz="0.0 0.0 0.0" rpy="0.0 -0.0 0.0" />
  </joint>
  <joint name="upper_left_cabinet_1.29_0.692_0.4995_2_world_fixed_joint" type="fixed">
    <parent link="world" />
    <child link="upper_left_cabinet_1.29_0.692_0.4995_2" />
    <origin xyz="0.692 0.24975 1.1509999999999998" rpy="0.0 -0.0 0.0" />
  </joint>
  <joint name="upper_left_cabinet_1.29_0.692_0.4995_2_corpus_to_door_0_0" type="revolute">
    <parent link="upper_left_cabinet_1.29_0.692_0.4995_2_corpus" />
    <child link="upper_left_cabinet_1.29_0.692_0.4995_2_door_0_0" />
    <origin xyz="0.345 -0.24975 0.645" rpy="0.0 -0.0 0.0" />
    <axis xyz="0 0 1" />
    <limit effort="1000.0" velocity="0.1" lower="0.0" upper="1.5707963267948966" />
  </joint>
  <joint name="upper_left_cabinet_1.29_0.692_0.4995_2_origin_joint" type="fixed">
    <parent link="upper_left_cabinet_1.29_0.692_0.4995_2" />
    <child link="upper_left_cabinet_1.29_0.692_0.4995_2_corpus" />
    <origin xyz="0.0 0.0 0.0" rpy="0.0 -0.0 0.0" />
  </joint>
  <joint name="big_upper_cabinet_1.29_0.692_0.4995_3_world_fixed_joint" type="fixed">
    <parent link="world" />
    <child link="big_upper_cabinet_1.29_0.692_0.4995_3" />
    <origin xyz="1.5374999999999999 0.24975 1.1509999999999998" rpy="0.0 -0.0 0.0" />
  </joint>
  <joint name="big_upper_cabinet_1.29_0.692_0.4995_3_corpus_to_door_0_0" type="revolute">
    <parent link="big_upper_cabinet_1.29_0.692_0.4995_3_corpus" />
    <child link="big_upper_cabinet_1.29_0.692_0.4995_3_door_0_0" />
    <origin xyz="0.4985 -0.24975 0.645" rpy="0.0 -0.0 0.0" />
    <axis xyz="0 0 1" />
    <limit effort="1000.0" velocity="0.1" lower="0.0" upper="1.5707963267948966" />
  </joint>
  <joint name="big_upper_cabinet_1.29_0.692_0.4995_3_origin_joint" type="fixed">
    <parent link="big_upper_cabinet_1.29_0.692_0.4995_3" />
    <child link="big_upper_cabinet_1.29_0.692_0.4995_3_corpus" />
    <origin xyz="0.0 0.0 0.0" rpy="0.0 -0.0 0.0" />
  </joint>
  <joint name="big_drawer_0.421_0.692_0.999_0_world_fixed_joint" type="fixed">
    <parent link="world" />
    <child link="big_drawer_0.421_0.692_0.999_0" />
    <origin xyz="1.5374999999999999 -4.9975000000000005 -1.039" rpy="0.0 -0.0 -1.5707963267948966" />
  </joint>
  <joint name="big_drawer_0.421_0.692_0.999_0_corpus_to_drawer_0_0" type="prismatic">
    <parent link="big_drawer_0.421_0.692_0.999_0_corpus" />
    <child link="big_drawer_0.421_0.692_0.999_0_drawer_0_0" />
    <origin xyz="0.0 -0.4795 0.21049999999999996" rpy="0.0 -0.0 0.0" />
    <axis xyz="0 -1 0" />
    <limit effort="1000.0" velocity="1.0" lower="0.0" upper="0.79299" />
  </joint>
  <joint name="big_drawer_0.421_0.692_0.999_0_origin_joint" type="fixed">
    <parent link="big_drawer_0.421_0.692_0.999_0" />
    <child link="big_drawer_0.421_0.692_0.999_0_corpus" />
    <origin xyz="0.0 0.0 0.0" rpy="0.0 -0.0 0.0" />
  </joint>
  <joint name="big_drawer_0.421_0.692_0.999_1_world_fixed_joint" type="fixed">
    <parent link="world" />
    <child link="big_drawer_0.421_0.692_0.999_1" />
    <origin xyz="1.5374999999999999 -5.689500000000001 -1.039" rpy="0.0 -0.0 -1.5707963267948966" />
  </joint>
  <joint name="big_drawer_0.421_0.692_0.999_1_corpus_to_drawer_0_0" type="prismatic">
    <parent link="big_drawer_0.421_0.692_0.999_1_corpus" />
    <child link="big_drawer_0.421_0.692_0.999_1_drawer_0_0" />
    <origin xyz="0.0 -0.4795 0.21049999999999996" rpy="0.0 -0.0 0.0" />
    <axis xyz="0 -1 0" />
    <limit effort="1000.0" velocity="1.0" lower="0.0" upper="0.79299" />
  </joint>
  <joint name="big_drawer_0.421_0.692_0.999_1_origin_joint" type="fixed">
    <parent link="big_drawer_0.421_0.692_0.999_1" />
    <child link="big_drawer_0.421_0.692_0.999_1_corpus" />
    <origin xyz="0.0 0.0 0.0" rpy="0.0 -0.0 0.0" />
  </joint>
  <joint name="counter_0_world_fixed_joint" type="fixed">
    <parent link="world" />
    <child link="counter_0" />
    <origin xyz="1.512525 -5.497 0.28325" rpy="0.0 -0.0 -1.5707963267948966" />
  </joint>
  <joint name="counter_1_world_fixed_joint" type="fixed">
    <parent link="world" />
    <child link="counter_1" />
    <origin xyz="0.8455 -0.024975000000000025 0.28325" rpy="0.0 -0.0 0.0" />
  </joint>
  <joint name="microwave_world_fixed_joint" type="fixed">
    <parent link="world" />
    <child link="microwave" />
    <origin xyz="1.5581481799999999 -5.343500000000001 -0.6179999999999999" rpy="0.0 -0.0 -1.5707963267948966" />
  </joint>
  <joint name="microwave_door_joint" type="revolute">
    <parent link="microwave_corpus" />
    <child link="microwave_door" />
    <origin xyz="-0.48439999999999994 -0.30965 0.0" rpy="0.0 -0.0 0.0" />
    <axis xyz="-0.0 -0.0 -1.0" />
    <limit effort="100.0" velocity="100.0" lower="0" upper="3.141592653589793" />
  </joint>
  <joint name="microwave_origin_joint" type="fixed">
    <parent link="microwave" />
    <child link="microwave_corpus" />
    <origin xyz="0.0 0.0 0.0" rpy="0.0 -0.0 0.0" />
  </joint>
  <joint name="refrigerator_world_fixed_joint" type="fixed">
    <parent link="world" />
    <child link="refrigerator" />
    <origin xyz="-1.0379999999999998 -5.551115123125783e-17 -1.039" rpy="0.0 -0.0 0.0" />
  </joint>
  <joint name="refrigerator_door_joint" type="revolute">
    <parent link="refrigerator_corpus" />
    <child link="refrigerator_door" />
    <origin xyz="0.692 -0.4295 0.0" rpy="0.0 -0.0 0.0" />
    <axis xyz="0.0 0.0 1.0" />
    <limit effort="100.0" velocity="100.0" lower="0" upper="3.141592653589793" />
  </joint>
  <joint name="refrigerator_freezer_door_joint" type="revolute">
    <parent link="refrigerator_corpus" />
    <child link="refrigerator_freezer_door" />
    <origin xyz="0.692 -0.4295 0.0" rpy="0.0 -0.0 0.0" />
    <axis xyz="0.0 0.0 1.0" />
    <limit effort="100.0" velocity="100.0" lower="0" upper="3.141592653589793" />
  </joint>
  <joint name="refrigerator_origin_joint" type="fixed">
    <parent link="refrigerator" />
    <child link="refrigerator_corpus" />
    <origin xyz="0.0 0.0 0.0" rpy="0.0 -0.0 0.0" />
  </joint>
</robot>
